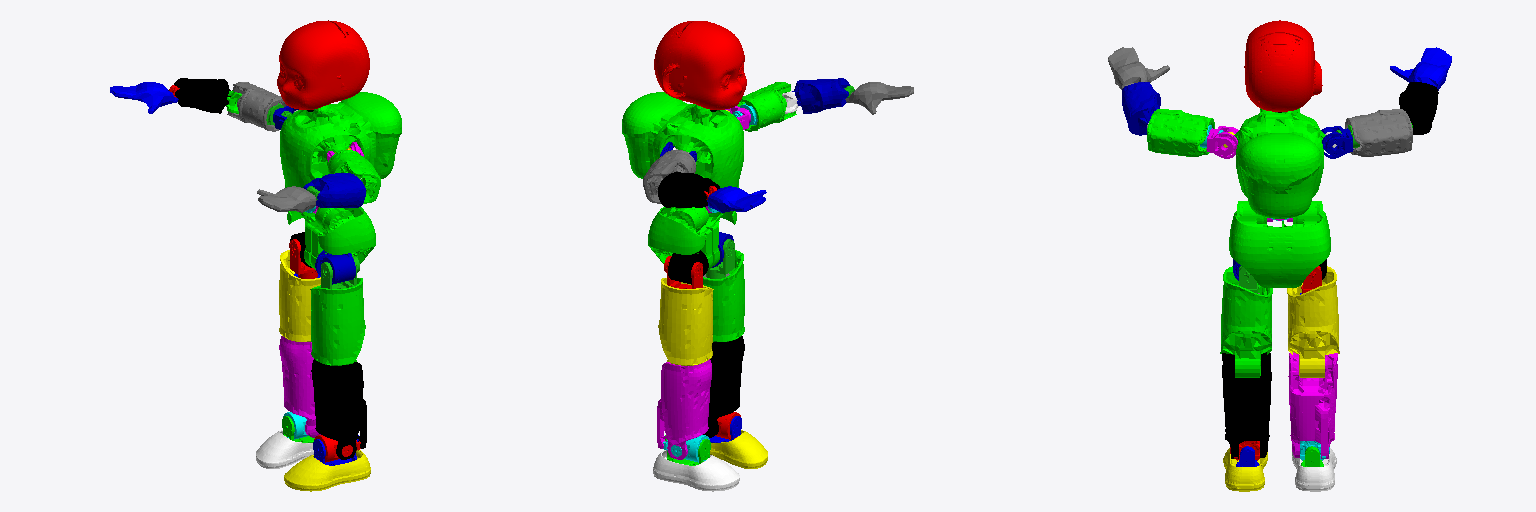
--- Render facts (derived) ---
Views: 3 orthographic renders of the robot side by side, from view 1: azimuth 30°, elevation 25°; view 2: azimuth 150°, elevation 25°; view 3: azimuth 270°, elevation 25°.
Model iCub with 205 links and 204 joints (32 revolute, 172 fixed), rooted at world, posed all joints at 0 but 4 set to mid-range because 0 is outside their limits (r_shoulder_roll = 1.58, r_elbow = 1.06, l_shoulder_roll = 1.58, l_elbow = 1.06).
Links seen in each view (by area): view 1: chest, head, l_lower_leg, l_upper_leg, root_link, r_lower_leg, r_upper_leg, l_foot, l_forearm, r_forearm, r_upper_arm, r_foot (+5 smaller); view 2: chest, head, r_lower_leg, r_upper_leg, root_link, l_lower_leg, l_upper_leg, r_foot, r_forearm, l_forearm, l_upper_arm, l_foot (+5 smaller); view 3: chest, root_link, head, l_upper_leg, r_upper_leg, l_lower_leg, r_lower_leg, r_upper_arm, l_upper_arm, r_forearm, l_forearm, l_hand (+5 smaller).
Boxes of the visible links, x1,y1,x2,y2 form: chest: (280,92,401,187); head: (277,20,369,109); l_lower_leg: (311,359,366,459); l_upper_leg: (310,278,365,365); root_link: (287,207,375,269); r_lower_leg: (279,336,320,437); r_upper_leg: (279,250,320,341); l_foot: (284,450,370,491); l_forearm: (303,173,365,207); r_forearm: (174,78,230,113); r_upper_arm: (227,82,286,131); r_foot: (256,430,313,468); chest: (622,92,743,187); head: (654,21,746,109); r_lower_leg: (657,359,711,459); r_upper_leg: (658,278,713,365); root_link: (648,207,736,269); l_lower_leg: (703,336,744,437); l_upper_leg: (703,250,744,341); r_foot: (653,450,739,491); r_forearm: (658,172,719,207); l_forearm: (792,78,849,113); l_upper_arm: (737,82,796,131); l_foot: (710,430,767,468); chest: (1234,108,1325,218); root_link: (1229,201,1330,287); head: (1244,20,1322,111); l_upper_leg: (1220,266,1272,377); r_upper_leg: (1287,266,1339,377); l_lower_leg: (1222,352,1271,458); r_lower_leg: (1288,352,1337,458); r_upper_arm: (1345,109,1412,156); l_upper_arm: (1147,109,1214,156); r_forearm: (1399,82,1438,134); l_forearm: (1122,82,1160,135); l_hand: (1108,47,1169,89).
Bounding box of the posed robot: 0.5414 × 0.749 × 1.08 m (x, y, z).
Meshes: 39 distinct files referenced, 38 mesh visuals loaded (38 binary STL); not drawn: 1 (reference not matched to a file when rendering).

robot.urdf — iCub:
<robot name="iCub">
  <link name="root_link">
    <inertial>
      <origin xyz="0.0248821 0.000103947 -0.0440806" rpy="1.57079632679 0 -1.57079632679"/>
      <mass value="5.09143"/>
      <inertia ixx="0.0139679" ixy="-5.93488e-06" ixz="-1.55458e-05" iyy="0.0202112" iyz="-0.00170968" izz="0.0249124"/>
    </inertial>
    <visual>
      <origin xyz="-0.0364 0 0.032" rpy="1.57079632679 0 -1.57079632679"/>
      <geometry>
        <mesh filename="package://iCub/meshes/simmechanics/sim_sea_2-5_root_link_prt-binary.stl" scale="0.001 0.001 0.001"/>
      </geometry>
      <material name="green">
        <color rgba="0 1 0 1"/>
      </material>
    </visual>
    <collision>
      <origin xyz="-0.0364 0 0.032" rpy="1.57079632679 0 -1.57079632679"/>
      <geometry>
        <mesh filename="package://iCub/meshes/simmechanics/sim_sea_2-5_root_link_prt-binary.stl" scale="0.001 0.001 0.001"/>
      </geometry>
    </collision>
  </link>
  <link name="r_hip_1">
    <inertial>
      <origin xyz="-0.0005145 -0.0380753 -7.1e-05" rpy="1.57079632679 0 1.57079632679"/>
      <mass value="0.919978"/>
      <inertia ixx="0.000404268" ixy="-1.26852e-06" ixz="1.11055e-06" iyy="0.000574741" iyz="-7.69474e-07" izz="0.000580025"/>
    </inertial>
    <visual>
      <origin xyz="0.0428515000001 0.026 0.151913" rpy="1.57079632679 0 1.57079632679"/>
      <geometry>
        <mesh filename="package://iCub/meshes/simmechanics/sim_sea_2-5_r_hip_1_prt-binary.stl" scale="0.001 0.001 0.001"/>
      </geometry>
      <material name="black">
        <color rgba="0 0 0 1"/>
      </material>
    </visual>
    <collision>
      <origin xyz="0.0428515000001 0.026 0.151913" rpy="1.57079632679 0 1.57079632679"/>
      <geometry>
        <mesh filename="package://iCub/meshes/simmechanics/sim_sea_2-5_r_hip_1_prt-binary.stl" scale="0.001 0.001 0.001"/>
      </geometry>
    </collision>
  </link>
  <joint name="r_hip_pitch" type="revolute">
    <origin xyz="0.0064515 0.026 -0.119913" rpy="0 0 -3.14159265359"/>
    <axis xyz="-2.22044604925e-16 -1.0 0.0"/>
    <parent link="root_link"/>
    <child link="r_hip_1"/>
    <limit effort="55.5" lower="-0.785398163397" upper="2.33874119767" velocity="5.1"/>
    <dynamics damping="1.0" friction="0.0"/>
  </joint>
  <link name="r_hip_2">
    <inertial>
      <origin xyz="-0.0013754 3.49999999998e-06 -0.044282" rpy="1.57079632679 0 1.57079632679"/>
      <mass value="0.418361"/>
      <inertia ixx="0.000487866" ixy="-2.70231e-07" ixz="1.85338e-07" iyy="0.000286099" iyz="1.22793e-05" izz="0.000315174"/>
    </inertial>
    <visual>
      <origin xyz="0.0428514998094 0.0701 0.151913" rpy="1.57079632679 0 1.57079632679"/>
      <geometry>
        <mesh filename="package://iCub/meshes/simmechanics/sim_sea_2-5_r_hip_2_prt-binary.stl" scale="0.001 0.001 0.001"/>
      </geometry>
      <material name="red">
        <color rgba="1 0 0 1"/>
      </material>
    </visual>
    <collision>
      <origin xyz="0.0428514998094 0.0701 0.151913" rpy="1.57079632679 0 1.57079632679"/>
      <geometry>
        <mesh filename="package://iCub/meshes/simmechanics/sim_sea_2-5_r_hip_2_prt-binary.stl" scale="0.001 0.001 0.001"/>
      </geometry>
    </collision>
  </link>

  <!--limit effort="37.0" lower="-0.349065850399" -new->"0.261799000003794" upper="2.09439510239" velocity="7.64"/-->
  <joint name="r_hip_roll" type="revolute">
    <origin xyz="0 -0.0441 0" rpy="0 0 0"/>
    <axis xyz="-1.0 0.0 -2.22044604925e-16"/>
    <parent link="r_hip_1"/>
    <child link="r_hip_2"/>
    <limit effort="37.0" lower="-0.349065850399" upper="2.09439510239" velocity="7.64"/>
    <dynamics damping="1.0" friction="0.0"/>
  </joint>
  <link name="r_hip_3">
    <inertial>
      <origin xyz="-0.000123 -0.0002823 0.008718" rpy="-1.57079632679 0 -1.57079632679"/>
      <mass value="0.126212"/>
      <inertia ixx="0.01" ixy="2.67901e-07" ixz="-4.41463e-09" iyy="0.01" iyz="3.32338e-08" izz="0.01"/>
    </inertial>
    <visual>
      <origin xyz="0.0437089998094 -0.0701 -0.226213" rpy="-1.57079632679 0 -1.57079632679"/>
      <geometry>
        <mesh filename="package://iCub/meshes/simmechanics/sim_sea_2-5_r_upper_thigh_prt-binary.stl" scale="0.001 0.001 0.001"/>
      </geometry>
      <material name="blue">
        <color rgba="0 0 1 1"/>
      </material>
    </visual>
    <collision>
      <origin xyz="0.0437089998094 -0.0701 -0.226213" rpy="-1.57079632679 0 -1.57079632679"/>
      <geometry>
        <mesh filename="package://iCub/meshes/simmechanics/sim_sea_2-5_r_upper_thigh_prt-binary.stl" scale="0.001 0.001 0.001"/>
      </geometry>
    </collision>
  </link>
  <joint name="r_leg_ft_sensor" type="fixed">
    <origin xyz="-0.0008575 0 -0.0743" rpy="3.14159265359 0 0"/>
    <parent link="r_hip_2"/>
    <child link="r_hip_3"/>
    <dynamics damping="0.1"/>
  </joint>
  <link name="r_upper_leg">
    <inertial>
      <origin xyz="0.0033999 -2.91e-05 -0.078954" rpy="1.57079632679 0 1.57079632679"/>
      <mass value="1.8035"/>
      <inertia ixx="0.00647751422999" ixy="0.000129579429588" ixz="5.48205094739e-06" iyy="0.0014593786411" iyz="-0.000136613086875" izz="0.00646720823813"/>
    </inertial>
    <visual>
      <origin xyz="0.0437089998094 0.0701 0.240813" rpy="1.57079632679 0 1.57079632679"/>
      <geometry>
        <mesh filename="package://iCub/meshes/simmechanics/sim_sea_2-5_r_thigh_prt-binary.stl" scale="0.001 0.001 0.001"/>
      </geometry>
      <material name="yellow">
        <color rgba="1 1 0 1"/>
      </material>
    </visual>
    <collision>
      <origin xyz="0.0437089998094 0.0701 0.240813" rpy="1.57079632679 0 1.57079632679"/>
      <geometry>
        <mesh filename="package://iCub/meshes/simmechanics/sim_sea_2-5_r_thigh_prt-binary.stl" scale="0.001 0.001 0.001"/>
      </geometry>
    </collision>
  </link>
  <joint name="r_hip_yaw" type="revolute">
    <origin xyz="0 0 0.0144" rpy="-3.14159265359 0 0"/>
    <axis xyz="0.0 -2.22044604925e-16 -1.0"/>
    <parent link="r_hip_3"/>
    <child link="r_upper_leg"/>
    <limit effort="37.0" lower="-1.3962634016" upper="1.3962634016" velocity="7.64"/>
    <dynamics damping="1.0" friction="0.0"/>
  </joint>
  <link name="r_upper_leg_back_contact"/>
  <joint name="r_upper_leg_back_contact_fixed_joint" type="fixed">
    <origin xyz="-0.0511999 0 0.0146" rpy="0 1.57079632679 0"/>
    <parent link="r_upper_leg"/>
    <child link="r_upper_leg_back_contact"/>
    <dynamics damping="0.1"/>
  </joint>
  <link name="r_upper_leg_dh_frame"/>
  <joint name="r_upper_leg_dh_frame_fixed_joint" type="fixed">
    <origin xyz="0 0 -0.145825" rpy="1.57079632679 0 0"/>
    <parent link="r_upper_leg"/>
    <child link="r_upper_leg_dh_frame"/>
    <dynamics damping="0.1"/>
  </joint>
  <link name="r_lower_leg">
    <inertial>
      <origin xyz="0.0012363 -0.0035131 -0.088794" rpy="1.57079632679 0 1.57079632679"/>
      <mass value="1.472"/>
      <inertia ixx="0.00423993167478" ixy="0.000228814548854" ixz="-5.55646459453e-05" iyy="0.00152095043447" iyz="-0.000264132979243" izz="0.00457358584206"/>
    </inertial>
    <visual>
      <origin xyz="0.0437089998094 0.0701000001907 0.386638" rpy="1.57079632679 0 1.57079632679"/>
      <geometry>
        <mesh filename="package://iCub/meshes/simmechanics/sim_sea_2-5_r_shank_prt-binary.stl" scale="0.001 0.001 0.001"/>
      </geometry>
      <material name="pink">
        <color rgba="1 0 1 1"/>
      </material>
    </visual>
    <collision>
      <origin xyz="0.0437089998094 0.0701000001907 0.386638" rpy="1.57079632679 0 1.57079632679"/>
      <geometry>
        <mesh filename="package://iCub/meshes/simmechanics/sim_sea_2-5_r_shank_prt-binary.stl" scale="0.001 0.001 0.001"/>
      </geometry>
    </collision>
  </link>
  <joint name="r_knee" type="revolute">
    <origin xyz="0 0 -0.145825" rpy="0 0 0"/>
    <axis xyz="-2.22044604925e-16 -1.0 0.0"/>
    <parent link="r_upper_leg"/>
    <child link="r_lower_leg"/>
    <limit effort="37.0" lower="-2.16420827247" upper="0.0698131700798" velocity="7.64"/>
    <dynamics damping="1.0" friction="0.0"/>
  </joint>
  <link name="r_lower_leg_skin_0"/>
  <joint name="r_lower_leg_skin_0_fixed_joint" type="fixed">
    <origin xyz="0.0544117 -0.031214 -0.002634" rpy="2.09173809157e-06 -1.41530676247 2.48648458622"/>
    <parent link="r_lower_leg"/>
    <child link="r_lower_leg_skin_0"/>
    <dynamics damping="0.1"/>
  </joint>
  <link name="r_lower_leg_skin_3"/>
  <joint name="r_lower_leg_skin_3_fixed_joint" type="fixed">
    <origin xyz="0.05157878 0.0304205 -0.002843" rpy="0 -1.42951054083 -2.30391484186"/>
    <parent link="r_lower_leg"/>
    <child link="r_lower_leg_skin_3"/>
    <dynamics damping="0.1"/>
  </joint>
  <link name="r_lower_leg_skin_4"/>
  <joint name="r_lower_leg_skin_4_fixed_joint" type="fixed">
    <origin xyz="0.0583103 0.0167836 0.007272" rpy="-2.98636361519e-07 -1.25636748876 -2.75892380087"/>
    <parent link="r_lower_leg"/>
    <child link="r_lower_leg_skin_4"/>
    <dynamics damping="0.1"/>
  </joint>
  <link name="r_lower_leg_skin_5"/>
  <joint name="r_lower_leg_skin_5_fixed_joint" type="fixed">
    <origin xyz="0.0636503 0.0003094 -0.001972" rpy="0 -1.38652215068 -3.14147169807"/>
    <parent link="r_lower_leg"/>
    <child link="r_lower_leg_skin_5"/>
    <dynamics damping="0.1"/>
  </joint>
  <link name="r_lower_leg_skin_6"/>
  <joint name="r_lower_leg_skin_6_fixed_joint" type="fixed">
    <origin xyz="0.05208552 0.0304434 -0.022149" rpy="-3.14158927953 -1.46785123411 0.837492889077"/>
    <parent link="r_lower_leg"/>
    <child link="r_lower_leg_skin_6"/>
    <dynamics damping="0.1"/>
  </joint>
  <link name="r_lower_leg_skin_9"/>
  <joint name="r_lower_leg_skin_9_fixed_joint" type="fixed">
    <origin xyz="0.0598214 0.0167973 -0.030962" rpy="-3.14159202356 -1.34224755325 0.379294477718"/>
    <parent link="r_lower_leg"/>
    <child link="r_lower_leg_skin_9"/>
    <dynamics damping="0.1"/>
  </joint>
  <link name="r_lower_leg_skin_10"/>
  <joint name="r_lower_leg_skin_10_fixed_joint" type="fixed">
    <origin xyz="0.0644607 0.0003424 -0.021205" rpy="3.14159265355 -1.47095803541 0.000430021675261"/>
    <parent link="r_lower_leg"/>
    <child link="r_lower_leg_skin_10"/>
    <dynamics damping="0.1"/>
  </joint>
  <link name="r_lower_leg_skin_11"/>
  <joint name="r_lower_leg_skin_11_fixed_joint" type="fixed">
    <origin xyz="0.0607108 -0.0160916 -0.030885" rpy="-3.14159218252 -1.3281180406 -0.27213836788"/>
    <parent link="r_lower_leg"/>
    <child link="r_lower_leg_skin_11"/>
    <dynamics damping="0.1"/>
  </joint>
  <link name="r_lower_leg_skin_14"/>
  <joint name="r_lower_leg_skin_14_fixed_joint" type="fixed">
    <origin xyz="0.0550477 -0.031176 -0.0219" rpy="-3.14159181885 -1.46502735635 -0.654033407167"/>
    <parent link="r_lower_leg"/>
    <child link="r_lower_leg_skin_14"/>
    <dynamics damping="0.1"/>
  </joint>
  <link name="r_lower_leg_skin_15"/>
  <joint name="r_lower_leg_skin_15_fixed_joint" type="fixed">
    <origin xyz="0.0591708 -0.0161788 0.007243" rpy="4.27484256729e-07 -1.25203633076 2.86798859471"/>
    <parent link="r_lower_leg"/>
    <child link="r_lower_leg_skin_15"/>
    <dynamics damping="0.1"/>
  </joint>
  <link name="r_lower_leg_skin_16"/>
  <joint name="r_lower_leg_skin_16_fixed_joint" type="fixed">
    <origin xyz="0.0272875 -0.050287 -0.004549" rpy="1.33075915123e-05 -1.53260853515 1.96280242835"/>
    <parent link="r_lower_leg"/>
    <child link="r_lower_leg_skin_16"/>
    <dynamics damping="0.1"/>
  </joint>
  <link name="r_lower_leg_skin_17"/>
  <joint name="r_lower_leg_skin_17_fixed_joint" type="fixed">
    <origin xyz="0.027875 -0.050312 -0.023882" rpy="-3.1415645262 -1.56366240237 -1.18022508756"/>
    <parent link="r_lower_leg"/>
    <child link="r_lower_leg_skin_17"/>
    <dynamics damping="0.1"/>
  </joint>
  <link name="r_lower_leg_skin_19"/>
  <joint name="r_lower_leg_skin_19_fixed_joint" type="fixed">
    <origin xyz="0.0357534 0.0410628 0.006065" rpy="-8.90877717426e-07 -1.43498696978 -2.15863618017"/>
    <parent link="r_lower_leg"/>
    <child link="r_lower_leg_skin_19"/>
    <dynamics damping="0.1"/>
  </joint>
  <link name="r_lower_leg_skin_20"/>
  <joint name="r_lower_leg_skin_20_fixed_joint" type="fixed">
    <origin xyz="0.0234419 0.0479908 -0.004952" rpy="-3.20556549428e-06 -1.50015513031 -1.86755092413"/>
    <parent link="r_lower_leg"/>
    <child link="r_lower_leg_skin_20"/>
    <dynamics damping="0.1"/>
  </joint>
  <link name="r_lower_leg_skin_21"/>
  <joint name="r_lower_leg_skin_21_fixed_joint" type="fixed">
    <origin xyz="0.0242704 0.0485378 -0.024277" rpy="2.29671149558e-05 -1.55545513881 -1.87411972316"/>
    <parent link="r_lower_leg"/>
    <child link="r_lower_leg_skin_21"/>
    <dynamics damping="0.1"/>
  </joint>
  <link name="r_lower_leg_skin_28"/>
  <joint name="r_lower_leg_skin_28_fixed_joint" type="fixed">
    <origin xyz="0.04087215 -0.04244 -0.032756" rpy="3.14158088865 -1.52252462169 -0.929681029763"/>
    <parent link="r_lower_leg"/>
    <child link="r_lower_leg_skin_28"/>
    <dynamics damping="0.1"/>
  </joint>
  <link name="r_lower_leg_skin_29"/>
  <joint name="r_lower_leg_skin_29_fixed_joint" type="fixed">
    <origin xyz="0.03846637 -0.043516 -0.05242" rpy="3.14158017044 -1.53429841563 -0.915436346631"/>
    <parent link="r_lower_leg"/>
    <child link="r_lower_leg_skin_29"/>
    <dynamics damping="0.1"/>
  </joint>
  <link name="r_lower_leg_skin_31"/>
  <joint name="r_lower_leg_skin_31_fixed_joint" type="fixed">
    <origin xyz="0.03914638 -0.042271 0.006327" rpy="-6.58381747139e-07 -1.4186494462 2.20853032986"/>
    <parent link="r_lower_leg"/>
    <child link="r_lower_leg_skin_31"/>
    <dynamics damping="0.1"/>
  </joint>
  <link name="r_lower_leg_skin_32"/>
  <joint name="r_lower_leg_skin_32_fixed_joint" type="fixed">
    <origin xyz="0.04598301 0.0325847 -0.080733" rpy="-3.14159014988 -1.52238289798 0.645940380887"/>
    <parent link="r_lower_leg"/>
    <child link="r_lower_leg_skin_32"/>
    <dynamics damping="0.1"/>
  </joint>
  <link name="r_lower_leg_skin_35"/>
  <joint name="r_lower_leg_skin_35_fixed_joint" type="fixed">
    <origin xyz="0.04774866 -0.031232 -0.080113" rpy="-3.14158668275 -1.51758467332 -0.541532486468"/>
    <parent link="r_lower_leg"/>
    <child link="r_lower_leg_skin_35"/>
    <dynamics damping="0.1"/>
  </joint>
  <link name="r_lower_leg_skin_36"/>
  <joint name="r_lower_leg_skin_36_fixed_joint" type="fixed">
    <origin xyz="0.05322409 -0.0156018 -0.088362" rpy="-3.14159034144 -1.51587265281 -0.20740733566"/>
    <parent link="r_lower_leg"/>
    <child link="r_lower_leg_skin_36"/>
    <dynamics damping="0.1"/>
  </joint>
  <link name="r_lower_leg_skin_37"/>
  <joint name="r_lower_leg_skin_37_fixed_joint" type="fixed">
    <origin xyz="0.0552572 0.0009644 -0.078318" rpy="-3.14158180452 -1.52318336898 0.00752450583063"/>
    <parent link="r_lower_leg"/>
    <child link="r_lower_leg_skin_37"/>
    <dynamics damping="0.1"/>
  </joint>
  <link name="r_lower_leg_skin_38"/>
  <joint name="r_lower_leg_skin_38_fixed_joint" type="fixed">
    <origin xyz="0.04880467 -0.031263 -0.060757" rpy="3.14158665199 -1.5157299554 -0.54215359959"/>
    <parent link="r_lower_leg"/>
    <child link="r_lower_leg_skin_38"/>
    <dynamics damping="0.1"/>
  </joint>
  <link name="r_lower_leg_skin_41"/>
  <joint name="r_lower_leg_skin_41_fixed_joint" type="fixed">
    <origin xyz="0.0566009 -0.0159129 -0.049854" rpy="-3.14159198825 -1.40681343597 -0.248233089413"/>
    <parent link="r_lower_leg"/>
    <child link="r_lower_leg_skin_41"/>
    <dynamics damping="0.1"/>
  </joint>
  <link name="r_lower_leg_skin_42"/>
  <joint name="r_lower_leg_skin_42_fixed_joint" type="fixed">
    <origin xyz="0.0570106 0.0007962 -0.05908" rpy="3.14158970239 -1.43524750416 0.00687943651504"/>
    <parent link="r_lower_leg"/>
    <child link="r_lower_leg_skin_42"/>
    <dynamics damping="0.1"/>
  </joint>
  <link name="r_lower_leg_skin_43"/>
  <joint name="r_lower_leg_skin_43_fixed_joint" type="fixed">
    <origin xyz="0.04712542 0.0323653 -0.061362" rpy="-3.14159136621 -1.53843038237 0.624217523667"/>
    <parent link="r_lower_leg"/>
    <child link="r_lower_leg_skin_43"/>
    <dynamics damping="0.1"/>
  </joint>
  <link name="r_lower_leg_skin_46"/>
  <joint name="r_lower_leg_skin_46_fixed_joint" type="fixed">
    <origin xyz="0.0558156 0.0172164 -0.05018" rpy="-3.14158987809 -1.42759881603 0.325607710876"/>
    <parent link="r_lower_leg"/>
    <child link="r_lower_leg_skin_46"/>
    <dynamics damping="0.1"/>
  </joint>
  <link name="r_lower_leg_skin_47"/>
  <joint name="r_lower_leg_skin_47_fixed_joint" type="fixed">
    <origin xyz="0.05264163 0.0176389 -0.08886" rpy="3.14158963519 -1.51690559406 0.262640425058"/>
    <parent link="r_lower_leg"/>
    <child link="r_lower_leg_skin_47"/>
    <dynamics damping="0.1"/>
  </joint>
  <link name="r_lower_leg_skin_49"/>
  <joint name="r_lower_leg_skin_49_fixed_joint" type="fixed">
    <origin xyz="0.04113137 0.0324385 -0.138859" rpy="-3.14158934751 -1.48996135695 0.729763592113"/>
    <parent link="r_lower_leg"/>
    <child link="r_lower_leg_skin_49"/>
    <dynamics damping="0.1"/>
  </joint>
  <link name="r_lower_leg_skin_50"/>
  <joint name="r_lower_leg_skin_50_fixed_joint" type="fixed">
    <origin xyz="0.043016947 0.0325273 -0.119469" rpy="3.14159069596 -1.49900732636 0.695784020081"/>
    <parent link="r_lower_leg"/>
    <child link="r_lower_leg_skin_50"/>
    <dynamics damping="0.1"/>
  </joint>
  <link name="r_lower_leg_skin_51"/>
  <joint name="r_lower_leg_skin_51_fixed_joint" type="fixed">
    <origin xyz="0.05141583 0.017759 -0.108206" rpy="-3.14158890179 -1.50628475717 0.272079935713"/>
    <parent link="r_lower_leg"/>
    <child link="r_lower_leg_skin_51"/>
    <dynamics damping="0.1"/>
  </joint>
  <link name="r_lower_leg_skin_52"/>
  <joint name="r_lower_leg_skin_52_fixed_joint" type="fixed">
    <origin xyz="0.05299832 0.0012664 -0.116895" rpy="-3.14159164042 -1.50318674421 0.0108717260994"/>
    <parent link="r_lower_leg"/>
    <child link="r_lower_leg_skin_52"/>
    <dynamics damping="0.1"/>
  </joint>
  <link name="r_lower_leg_skin_53"/>
  <joint name="r_lower_leg_skin_53_fixed_joint" type="fixed">
    <origin xyz="0.05207312 -0.0154339 -0.107654" rpy="3.14159063987 -1.50595307447 -0.211407322892"/>
    <parent link="r_lower_leg"/>
    <child link="r_lower_leg_skin_53"/>
    <dynamics damping="0.1"/>
  </joint>
  <link name="r_lower_leg_skin_54"/>
  <joint name="r_lower_leg_skin_54_fixed_joint" type="fixed">
    <origin xyz="0.04512708 -0.030749 -0.118787" rpy="3.14158825193 -1.49745145571 -0.575115374473"/>
    <parent link="r_lower_leg"/>
    <child link="r_lower_leg_skin_54"/>
    <dynamics damping="0.1"/>
  </joint>
  <link name="r_lower_leg_skin_55"/>
  <joint name="r_lower_leg_skin_55_fixed_joint" type="fixed">
    <origin xyz="0.043502663 -0.030489 -0.138143" rpy="3.14158906486 -1.48995787038 -0.597219943789"/>
    <parent link="r_lower_leg"/>
    <child link="r_lower_leg_skin_55"/>
    <dynamics damping="0.1"/>
  </joint>
  <link name="r_lower_leg_skin_56"/>
  <joint name="r_lower_leg_skin_56_fixed_joint" type="fixed">
    <origin xyz="0.04926839 -0.015121 -0.146218" rpy="-3.14158920404 -1.49124819828 -0.2234844764"/>
    <parent link="r_lower_leg"/>
    <child link="r_lower_leg_skin_56"/>
    <dynamics damping="0.1"/>
  </joint>
  <link name="r_lower_leg_skin_60"/>
  <joint name="r_lower_leg_skin_60_fixed_joint" type="fixed">
    <origin xyz="0.04836967 0.018056 -0.146938" rpy="-3.14159173337 -1.48985968527 0.302951871954"/>
    <parent link="r_lower_leg"/>
    <child link="r_lower_leg_skin_60"/>
    <dynamics damping="0.1"/>
  </joint>
  <link name="r_lower_leg_skin_61"/>
  <joint name="r_lower_leg_skin_61_fixed_joint" type="fixed">
    <origin xyz="0.05161952 0.0014266 -0.136169" rpy="-3.14159100925 -1.49602097086 0.0132014275205"/>
    <parent link="r_lower_leg"/>
    <child link="r_lower_leg_skin_61"/>
    <dynamics damping="0.1"/>
  </joint>
  <link name="r_ankle_1">
    <inertial>
      <origin xyz="0.0151436 -0.0008686 4.2e-05" rpy="1.57079632679 0 1.57079632679"/>
      <mass value="0.6803"/>
      <inertia ixx="0.000404618848932" ixy="7.49819286945e-07" ixz="-3.01349467691e-05" iyy="0.000448633654664" iyz="2.5726697409e-06" izz="0.000308235939139"/>
    </inertial>
    <visual>
      <origin xyz="0.0437089998094 0.0701000001907 0.587138" rpy="1.57079632679 0 1.57079632679"/>
      <geometry>
        <mesh filename="package://iCub/meshes/simmechanics/sim_sea_2-5_r_ankle_prt-binary.stl" scale="0.001 0.001 0.001"/>
      </geometry>
      <material name="cyan">
        <color rgba="0 1 1 1"/>
      </material>
    </visual>
    <collision>
      <origin xyz="0.0437089998094 0.0701000001907 0.587138" rpy="1.57079632679 0 1.57079632679"/>
      <geometry>
        <mesh filename="package://iCub/meshes/simmechanics/sim_sea_2-5_r_ankle_prt-binary.stl" scale="0.001 0.001 0.001"/>
      </geometry>
    </collision>
  </link>
  <joint name="r_ankle_pitch" type="revolute">
    <origin xyz="0 0 -0.2005" rpy="0 0 0"/>
    <axis xyz="2.22044604925e-16 1.0 0.0"/>
    <parent link="r_lower_leg"/>
    <child link="r_ankle_1"/>
    <limit effort="37.0" lower="-0.610865238198" upper="0.610865238198" velocity="7.64"/>
    <dynamics damping="1.0" friction="0.0"/>
  </joint>
  <link name="r_ankle_2">
    <inertial>
      <origin xyz="0.0007673 -8.20000000001e-06 -0.038202" rpy="1.57079632679 0 1.57079632679"/>
      <mass value="0.267485"/>
      <inertia ixx="0.01" ixy="-7.53335e-08" ixz="2.93681e-08" iyy="0.01" iyz="-4.26218e-07" izz="0.01"/>
    </inertial>
    <visual>
      <origin xyz="0.0437089996186 0.0701000001907 0.587138" rpy="1.57079632679 0 1.57079632679"/>
      <geometry>
        <mesh filename="package://iCub/meshes/simmechanics/sim_sea_2-5_r_foot_prt-binary.stl" scale="0.001 0.001 0.001"/>
      </geometry>
      <material name="green">
        <color rgba="0 1 0 1"/>
      </material>
    </visual>
    <collision>
      <origin xyz="0.0437089996186 0.0701000001907 0.587138" rpy="1.57079632679 0 1.57079632679"/>
      <geometry>
        <mesh filename="package://iCub/meshes/simmechanics/sim_sea_2-5_r_foot_prt-binary.stl" scale="0.001 0.001 0.001"/>
      </geometry>
    </collision>
  </link>
  <joint name="r_ankle_roll" type="revolute">
    <origin xyz="0 0 0" rpy="0 0 0"/>
    <axis xyz="-1.0 0.0 -2.22044604925e-16"/>
    <parent link="r_ankle_1"/>
    <child link="r_ankle_2"/>
    <limit effort="37.0" lower="-0.436332312999" upper="0.436332312999" velocity="7.64"/>
    <dynamics damping="1.0" friction="0.0"/>
  </joint>
  <link name="r_foot">
    <inertial>
      <origin xyz="0.0336001 0.0053719 -0.001147" rpy="-1.57079632679 0 -1.57079632679"/>
      <mass value="0.382866"/>
      <inertia ixx="0.00120946" ixy="3.74585e-07" ixz="-5.78759e-05" iyy="0.00141439" iyz="-7.80325e-06" izz="0.000273599"/>
    </inertial>
    <visual>
      <origin xyz="0.0472089996187 -0.0701000001907 -0.647438000286" rpy="-1.57079632679 0 -1.57079632679"/>
      <geometry>
        <mesh filename="package://iCub/meshes/simmechanics/sim_sea_2-5_r_sole_prt-binary.stl" scale="0.001 0.001 0.001"/>
      </geometry>
      <material name="white">
        <color rgba="1 1 1 1"/>
      </material>
    </visual>
    <collision>
      <origin xyz="0.03 0.005 0.014" rpy="0.0 0.0 0.0"/>
      <geometry>
        <box size="0.16 0.072 0.001"/>
      </geometry>
    </collision>
  </link>
  <joint name="r_foot_ft_sensor" type="fixed">
    <origin xyz="-0.0035 0 -0.0605" rpy="3.14159265359 0 0"/>
    <parent link="r_ankle_2"/>
    <child link="r_foot"/>
    <dynamics damping="0.1"/>
  </joint>
  <link name="r_sole"/>
  <joint name="r_sole_fixed_joint" type="fixed">
    <origin xyz="0.0035 0 0.004" rpy="-3.14159265359 0 0"/>
    <parent link="r_foot"/>
    <child link="r_sole"/>
    <dynamics damping="0.1"/>
  </joint>
  <link name="r_sole_skin_0"/>
  <joint name="r_sole_skin_0_fixed_joint" type="fixed">
    <origin xyz="0.0604767 -0.0254106 0.0075" rpy="0 0 0"/>
    <parent link="r_foot"/>
    <child link="r_sole_skin_0"/>
    <dynamics damping="0.1"/>
  </joint>
  <link name="r_sole_skin_1"/>
  <joint name="r_sole_skin_1_fixed_joint" type="fixed">
    <origin xyz="0.0788511 -0.0194404 0.0075" rpy="0 0 0"/>
    <parent link="r_foot"/>
    <child link="r_sole_skin_1"/>
    <dynamics damping="0.1"/>
  </joint>
  <link name="r_sole_skin_2"/>
  <joint name="r_sole_skin_2_fixed_joint" type="fixed">
    <origin xyz="0.0932087 -0.032368 0.0075" rpy="0 0 0"/>
    <parent link="r_foot"/>
    <child link="r_sole_skin_2"/>
    <dynamics damping="0.1"/>
  </joint>
  <link name="r_sole_skin_3"/>
  <joint name="r_sole_skin_3_fixed_joint" type="fixed">
    <origin xyz="0.1115831 -0.0263978 0.0075" rpy="0 0 0"/>
    <parent link="r_foot"/>
    <child link="r_sole_skin_3"/>
    <dynamics damping="0.1"/>
  </joint>
  <link name="r_sole_skin_4"/>
  <joint name="r_sole_skin_4_fixed_joint" type="fixed">
    <origin xyz="0.1156 -0.0075 0.0075" rpy="0 0 0"/>
    <parent link="r_foot"/>
    <child link="r_sole_skin_4"/>
    <dynamics damping="0.1"/>
  </joint>
  <link name="r_sole_skin_8"/>
  <joint name="r_sole_skin_8_fixed_joint" type="fixed">
    <origin xyz="0.1052593 0.0243254 0.0075" rpy="0 0 0"/>
    <parent link="r_foot"/>
    <child link="r_sole_skin_8"/>
    <dynamics damping="0.1"/>
  </joint>
  <link name="r_sole_skin_9"/>
  <joint name="r_sole_skin_9_fixed_joint" type="fixed">
    <origin xyz="0.0909017 0.037253 0.0075" rpy="0 0 0"/>
    <parent link="r_foot"/>
    <child link="r_sole_skin_9"/>
    <dynamics damping="0.1"/>
  </joint>
  <link name="r_sole_skin_10"/>
  <joint name="r_sole_skin_10_fixed_joint" type="fixed">
    <origin xyz="0.0725273 0.031283 0.0075" rpy="0 0 0"/>
    <parent link="r_foot"/>
    <child link="r_sole_skin_10"/>
    <dynamics damping="0.1"/>
  </joint>
  <link name="r_sole_skin_11"/>
  <joint name="r_sole_skin_11_fixed_joint" type="fixed">
    <origin xyz="0.0685104 0.012385 0.0075" rpy="0 0 0"/>
    <parent link="r_foot"/>
    <child link="r_sole_skin_11"/>
    <dynamics damping="0.1"/>
  </joint>
  <link name="r_sole_skin_12"/>
  <joint name="r_sole_skin_12_fixed_joint" type="fixed">
    <origin xyz="0.082868 -0.0005426 0.0075" rpy="0 0 0"/>
    <parent link="r_foot"/>
    <child link="r_sole_skin_12"/>
    <dynamics damping="0.1"/>
  </joint>
  <link name="r_sole_skin_13"/>
  <joint name="r_sole_skin_13_fixed_joint" type="fixed">
    <origin xyz="0.1012424 0.0054276 0.0075" rpy="0 0 0"/>
    <parent link="r_foot"/>
    <child link="r_sole_skin_13"/>
    <dynamics damping="0.1"/>
  </joint>
  <link name="r_sole_skin_14"/>
  <joint name="r_sole_skin_14_fixed_joint" type="fixed">
    <origin xyz="0.05013603 0.0064148 0.0075" rpy="0 0 0"/>
    <parent link="r_foot"/>
    <child link="r_sole_skin_14"/>
    <dynamics damping="0.1"/>
  </joint>
  <link name="r_sole_skin_15"/>
  <joint name="r_sole_skin_15_fixed_joint" type="fixed">
    <origin xyz="0.04611917 -0.012483 0.0075" rpy="0 0 0"/>
    <parent link="r_foot"/>
    <child link="r_sole_skin_15"/>
    <dynamics damping="0.1"/>
  </joint>
  <link name="r_sole_skin_17"/>
  <joint name="r_sole_skin_17_fixed_joint" type="fixed">
    <origin xyz="-0.0296855 0.033257 0.0075" rpy="0 0 0"/>
    <parent link="r_foot"/>
    <child link="r_sole_skin_17"/>
    <dynamics damping="0.1"/>
  </joint>
  <link name="r_sole_skin_18"/>
  <joint name="r_sole_skin_18_fixed_joint" type="fixed">
    <origin xyz="-0.0480599 0.027287 0.0075" rpy="0 0 0"/>
    <parent link="r_foot"/>
    <child link="r_sole_skin_18"/>
    <dynamics damping="0.1"/>
  </joint>
  <link name="r_sole_skin_19"/>
  <joint name="r_sole_skin_19_fixed_joint" type="fixed">
    <origin xyz="-0.0520767 0.0083892 0.0075" rpy="0 0 0"/>
    <parent link="r_foot"/>
    <child link="r_sole_skin_19"/>
    <dynamics damping="0.1"/>
  </joint>
  <link name="r_sole_skin_20"/>
  <joint name="r_sole_skin_20_fixed_joint" type="fixed">
    <origin xyz="-0.0377192 -0.0045384 0.0075" rpy="0 0 0"/>
    <parent link="r_foot"/>
    <child link="r_sole_skin_20"/>
    <dynamics damping="0.1"/>
  </joint>
  <link name="r_sole_skin_21"/>
  <joint name="r_sole_skin_21_fixed_joint" type="fixed">
    <origin xyz="0.0357785 0.0193424 0.0075" rpy="0 0 0"/>
    <parent link="r_foot"/>
    <child link="r_sole_skin_21"/>
    <dynamics damping="0.1"/>
  </joint>
  <link name="r_sole_skin_22"/>
  <joint name="r_sole_skin_22_fixed_joint" type="fixed">
    <origin xyz="0.0277448 -0.0184532 0.0075" rpy="0 0 0"/>
    <parent link="r_foot"/>
    <child link="r_sole_skin_22"/>
    <dynamics damping="0.1"/>
  </joint>
  <link name="r_sole_skin_24"/>
  <joint name="r_sole_skin_24_fixed_joint" type="fixed">
    <origin xyz="-0.0049872 -0.0114958 0.0075" rpy="0 0 0"/>
    <parent link="r_foot"/>
    <child link="r_sole_skin_24"/>
    <dynamics damping="0.1"/>
  </joint>
  <link name="r_sole_skin_25"/>
  <joint name="r_sole_skin_25_fixed_joint" type="fixed">
    <origin xyz="0.0133872 -0.0055256 0.0075" rpy="0 0 0"/>
    <parent link="r_foot"/>
    <child link="r_sole_skin_25"/>
    <dynamics damping="0.1"/>
  </joint>
  <link name="r_sole_skin_26"/>
  <joint name="r_sole_skin_26_fixed_joint" type="fixed">
    <origin xyz="0.0174041 0.0133722 0.0075" rpy="0 0 0"/>
    <parent link="r_foot"/>
    <child link="r_sole_skin_26"/>
    <dynamics damping="0.1"/>
  </joint>
  <link name="r_sole_skin_27"/>
  <joint name="r_sole_skin_27_fixed_joint" type="fixed">
    <origin xyz="0.0030465 0.0262998 0.0075" rpy="0 0 0"/>
    <parent link="r_foot"/>
    <child link="r_sole_skin_27"/>
    <dynamics damping="0.1"/>
  </joint>
  <link name="r_sole_skin_28"/>
  <joint name="r_sole_skin_28_fixed_joint" type="fixed">
    <origin xyz="-0.0153279 0.0203296 0.0075" rpy="0 0 0"/>
    <parent link="r_foot"/>
    <child link="r_sole_skin_28"/>
    <dynamics damping="0.1"/>
  </joint>
  <link name="r_sole_skin_29"/>
  <joint name="r_sole_skin_29_fixed_joint" type="fixed">
    <origin xyz="-0.0193448 0.0014318 0.0075" rpy="0 0 0"/>
    <parent link="r_foot"/>
    <child link="r_sole_skin_29"/>
    <dynamics damping="0.1"/>
  </joint>
  <link name="l_hip_1">
    <inertial>
      <origin xyz="-0.0005108 0.0380923 -8.3e-05" rpy="1.57079632679 0 1.57079632679"/>
      <mass value="0.919725"/>
      <inertia ixx="0.000404539" ixy="1.18502e-06" ixz="-9.64514e-07" iyy="0.000573315" iyz="-1.06028e-06" izz="0.000578982"/>
    </inertial>
    <visual>
      <origin xyz="0.0428515000001 -0.026 0.151913" rpy="1.57079632679 0 1.57079632679"/>
      <geometry>
        <mesh filename="package://iCub/meshes/simmechanics/sim_sea_2-5_l_hip_1_prt-binary.stl" scale="0.001 0.001 0.001"/>
      </geometry>
      <material name="dblue">
        <color rgba="0 0 0.8 1"/>
      </material>
    </visual>
    <collision>
      <origin xyz="0.0428515000001 -0.026 0.151913" rpy="1.57079632679 0 1.57079632679"/>
      <geometry>
        <mesh filename="package://iCub/meshes/simmechanics/sim_sea_2-5_l_hip_1_prt-binary.stl" scale="0.001 0.001 0.001"/>
      </geometry>
    </collision>
  </link>
  <joint name="l_hip_pitch" type="revolute">
    <origin xyz="0.0064515 -0.026 -0.119913" rpy="0 0 -3.14159265359"/>
    <axis xyz="-2.22044604925e-16 -1.0 0.0"/>
    <parent link="root_link"/>
    <child link="l_hip_1"/>
    <limit effort="55.5" lower="-0.785398163397" upper="2.33874119767" velocity="5.1"/>
    <dynamics damping="1.0" friction="0.0"/>
  </joint>
  <link name="l_hip_2">
    <inertial>
      <origin xyz="-0.0015762 -1.94e-05 -0.044053" rpy="1.57079632679 0 1.57079632679"/>
      <mass value="0.421106"/>
      <inertia ixx="0.000494284" ixy="1.5483e-07" ixz="-1.86308e-07" iyy="0.000288736" iyz="1.52962e-05" izz="0.000319008"/>
    </inertial>
    <visual>
      <origin xyz="0.0428514998093 -0.0701 0.151913" rpy="1.57079632679 0 1.57079632679"/>
      <geometry>
        <mesh filename="package://iCub/meshes/simmechanics/sim_sea_2-5_l_hip_2_prt-binary.stl" scale="0.001 0.001 0.001"/>
      </geometry>
      <material name="dgreen">
        <color rgba="0.1 0.8 0.1 1"/>
      </material>
    </visual>
    <collision>
      <origin xyz="0.0428514998093 -0.0701 0.151913" rpy="1.57079632679 0 1.57079632679"/>
      <geometry>
        <mesh filename="package://iCub/meshes/simmechanics/sim_sea_2-5_l_hip_2_prt-binary.stl" scale="0.001 0.001 0.001"/>
      </geometry>
    </collision>
  </link>
  <!--limit effort="37.0" lower="-0.349065850399" -new->"0.261799000003794"  upper="2.09439510239" velocity="7.64"/-->
  <joint name="l_hip_roll" type="revolute">
    <origin xyz="0 0.0441 0" rpy="0 0 0"/>
    <axis xyz="1.0 0.0 2.22044604925e-16"/>
    <parent link="l_hip_1"/>
    <child link="l_hip_2"/>
    <limit effort="37.0" lower="-0.349065850399" upper="2.09439510239" velocity="7.64"/>
    <dynamics damping="1.0" friction="0.0"/>
  </joint>
  <link name="l_hip_3">
    <inertial>
      <origin xyz="-0.000123 -0.0002823 0.008718" rpy="-1.57079632679 0 -1.57079632679"/>
      <mass value="0.126212"/>
      <inertia ixx="0.01" ixy="2.67901e-07" ixz="-4.41463e-09" iyy="0.01" iyz="3.32338e-08" izz="0.01"/>
    </inertial>
    <visual>
      <origin xyz="0.0437089998093 0.0701 -0.226213" rpy="-1.57079632679 0 -1.57079632679"/>
      <geometry>
        <mesh filename="package://iCub/meshes/simmechanics/sim_sea_2-5_l_upper_thigh_prt-binary.stl" scale="0.001 0.001 0.001"/>
      </geometry>
      <material name="gray">
        <color rgba="0.5 0.5 0.5 1"/>
      </material>
    </visual>
    <collision>
      <origin xyz="0.0437089998093 0.0701 -0.226213" rpy="-1.57079632679 0 -1.57079632679"/>
      <geometry>
        <mesh filename="package://iCub/meshes/simmechanics/sim_sea_2-5_l_upper_thigh_prt-binary.stl" scale="0.001 0.001 0.001"/>
      </geometry>
    </collision>
  </link>
  <joint name="l_leg_ft_sensor" type="fixed">
    <origin xyz="-0.0008575 0 -0.0743" rpy="3.14159265359 0 0"/>
    <parent link="l_hip_2"/>
    <child link="l_hip_3"/>
    <dynamics damping="0.1"/>
  </joint>
  <link name="l_upper_leg">
    <inertial>
      <origin xyz="0.0033868 0.0001018 -0.078916" rpy="1.57079632679 0 1.57079632679"/>
      <mass value="1.8084"/>
      <inertia ixx="0.00648512673084" ixy="-0.00012421121424" ixz="-3.97399421479e-06" iyy="0.00146250529833" iyz="-0.00013681806888" izz="0.00647619242046"/>
    </inertial>
    <visual>
      <origin xyz="0.0437089998093 -0.0701 0.240813" rpy="1.57079632679 0 1.57079632679"/>
      <geometry>
        <mesh filename="package://iCub/meshes/simmechanics/sim_sea_2-5_l_thigh_prt-binary.stl" scale="0.001 0.001 0.001"/>
      </geometry>
      <material name="green">
        <color rgba="0 1 0 1"/>
      </material>
    </visual>
    <collision>
      <origin xyz="0.0437089998093 -0.0701 0.240813" rpy="1.57079632679 0 1.57079632679"/>
      <geometry>
        <mesh filename="package://iCub/meshes/simmechanics/sim_sea_2-5_l_thigh_prt-binary.stl" scale="0.001 0.001 0.001"/>
      </geometry>
    </collision>
  </link>
  <joint name="l_hip_yaw" type="revolute">
    <origin xyz="0 0 0.0144" rpy="-3.14159265359 0 0"/>
    <axis xyz="0.0 2.22044604925e-16 1.0"/>
    <parent link="l_hip_3"/>
    <child link="l_upper_leg"/>
    <limit effort="37.0" lower="-1.3962634016" upper="1.3962634016" velocity="7.64"/>
    <dynamics damping="1.0" friction="0.0"/>
  </joint>
  <link name="l_upper_leg_back_contact"/>
  <joint name="l_upper_leg_back_contact_fixed_joint" type="fixed">
    <origin xyz="-0.0512567 0 0.0146" rpy="0 1.57079632679 0"/>
    <parent link="l_upper_leg"/>
    <child link="l_upper_leg_back_contact"/>
    <dynamics damping="0.1"/>
  </joint>
  <link name="l_upper_leg_dh_frame"/>
  <joint name="l_upper_leg_dh_frame_fixed_joint" type="fixed">
    <origin xyz="0 0 -0.145825" rpy="1.57079632679 0 0"/>
    <parent link="l_upper_leg"/>
    <child link="l_upper_leg_dh_frame"/>
    <dynamics damping="0.1"/>
  </joint>
  <link name="l_lower_leg">
    <inertial>
      <origin xyz="0.0009997 0.0034969 -0.088567" rpy="1.57079632679 0 1.57079632679"/>
      <mass value="1.4724"/>
      <inertia ixx="0.00423698606499" ixy="-0.000239615181423" ixz="6.76166218238e-05" iyy="0.00152221313636" iyz="-0.00023314283575" izz="0.00457007183207"/>
    </inertial>
    <visual>
      <origin xyz="0.0437089998093 -0.0701000001908 0.386638" rpy="1.57079632679 0 1.57079632679"/>
      <geometry>
        <mesh filename="package://iCub/meshes/simmechanics/sim_sea_2-5_l_shank_prt-binary.stl" scale="0.001 0.001 0.001"/>
      </geometry>
      <material name="black">
        <color rgba="0 0 0 1"/>
      </material>
    </visual>
    <collision>
      <origin xyz="0.0437089998093 -0.0701000001908 0.386638" rpy="1.57079632679 0 1.57079632679"/>
      <geometry>
        <mesh filename="package://iCub/meshes/simmechanics/sim_sea_2-5_l_shank_prt-binary.stl" scale="0.001 0.001 0.001"/>
      </geometry>
    </collision>
  </link>
  <joint name="l_knee" type="revolute">
    <origin xyz="0 0 -0.145825" rpy="0 0 0"/>
    <axis xyz="-2.22044604925e-16 -1.0 0.0"/>
    <parent link="l_upper_leg"/>
    <child link="l_lower_leg"/>
    <limit effort="37.0" lower="-2.16420827247" upper="0.0698131700798" velocity="7.64"/>
    <dynamics damping="1.0" friction="0.0"/>
  </joint>
  <link name="l_ankle_1">
    <inertial>
      <origin xyz="0.015153 0.0009021 4.2e-05" rpy="1.57079632679 0 1.57079632679"/>
      <mass value="0.6798"/>
      <inertia ixx="0.000404474297345" ixy="-1.13226038781e-06" ixz="3.04665105776e-05" iyy="0.00044788735407" iyz="2.57265834141e-06" izz="0.000307603045377"/>
    </inertial>
    <visual>
      <origin xyz="0.0437089998093 -0.0701000001908 0.587138" rpy="1.57079632679 0 1.57079632679"/>
      <geometry>
        <mesh filename="package://iCub/meshes/simmechanics/sim_sea_2-5_l_ankle_prt-binary.stl" scale="0.001 0.001 0.001"/>
      </geometry>
      <material name="red">
        <color rgba="1 0 0 1"/>
      </material>
    </visual>
    <collision>
      <origin xyz="0.0437089998093 -0.0701000001908 0.587138" rpy="1.57079632679 0 1.57079632679"/>
      <geometry>
        <mesh filename="package://iCub/meshes/simmechanics/sim_sea_2-5_l_ankle_prt-binary.stl" scale="0.001 0.001 0.001"/>
      </geometry>
    </collision>
  </link>
  <joint name="l_ankle_pitch" type="revolute">
    <origin xyz="0 0 -0.2005" rpy="0 0 0"/>
    <axis xyz="2.22044604925e-16 1.0 0.0"/>
    <parent link="l_lower_leg"/>
    <child link="l_ankle_1"/>
    <limit effort="37.0" lower="-0.610865238198" upper="0.610865238198" velocity="7.64"/>
    <dynamics damping="1.0" friction="0.0"/>
  </joint>
  <link name="l_ankle_2">
    <inertial>
      <origin xyz="0.0007673 -8.2e-06 -0.038202" rpy="1.57079632679 0 1.57079632679"/>
      <mass value="0.267485"/>
      <inertia ixx="0.01" ixy="-7.53335e-08" ixz="2.93681e-08" iyy="0.01" iyz="-4.26218e-07" izz="0.01"/>
    </inertial>
    <visual>
      <origin xyz="0.0437089996186 -0.0701000001908 0.587138" rpy="1.57079632679 0 1.57079632679"/>
      <geometry>
        <mesh filename="package://iCub/meshes/simmechanics/sim_sea_2-5_l_foot_prt-binary.stl" scale="0.001 0.001 0.001"/>
      </geometry>
      <material name="blue">
        <color rgba="0 0 1 1"/>
      </material>
    </visual>
    <collision>
      <origin xyz="0.0437089996186 -0.0701000001908 0.587138" rpy="1.57079632679 0 1.57079632679"/>
      <geometry>
        <mesh filename="package://iCub/meshes/simmechanics/sim_sea_2-5_l_foot_prt-binary.stl" scale="0.001 0.001 0.001"/>
      </geometry>
    </collision>
  </link>
  <joint name="l_ankle_roll" type="revolute">
    <origin xyz="0 0 0" rpy="0 0 0"/>
    <axis xyz="1.0 0.0 2.22044604925e-16"/>
    <parent link="l_ankle_1"/>
    <child link="l_ankle_2"/>
    <limit effort="37.0" lower="-0.436332312999" upper="0.436332312999" velocity="7.64"/>
    <dynamics damping="1.0" friction="0.0"/>
  </joint>
  <link name="l_foot">
    <inertial>
      <origin xyz="0.0336668 -0.0053736 -0.001164" rpy="-1.57079632679 0 -1.57079632679"/>
      <mass value="0.382968"/>
      <inertia ixx="0.00121242" ixy="-3.69533e-07" ixz="5.79273e-05" iyy="0.00141712" iyz="-7.64972e-06" izz="0.000273846"/>
    </inertial>
    <visual>
      <origin xyz="0.0472089996186 0.0701000001908 -0.647438000286" rpy="-1.57079632679 0 -1.57079632679"/>
      <geometry>
        <mesh filename="package://iCub/meshes/simmechanics/sim_sea_2-5_l_sole_prt-binary.stl" scale="0.001 0.001 0.001"/>
      </geometry>
      <material name="yellow">
        <color rgba="1 1 0 1"/>
      </material>
    </visual>
    <collision>
      <origin xyz="0.03 -0.005 0.014" rpy="0.0 0.0 0.0"/>
      <geometry>
        <box size="0.16 0.072 0.001"/>
      </geometry>
    </collision>
  </link>
  <joint name="l_foot_ft_sensor" type="fixed">
    <origin xyz="-0.0035 0 -0.0605" rpy="3.14159265359 0 0"/>
    <parent link="l_ankle_2"/>
    <child link="l_foot"/>
    <dynamics damping="0.1"/>
  </joint>
  <link name="l_sole"/>
  <joint name="l_sole_fixed_joint" type="fixed">
    <origin xyz="0.0035 0 0.004" rpy="-3.14159265359 0 0"/>
    <parent link="l_foot"/>
    <child link="l_sole"/>
    <dynamics damping="0.1"/>
  </joint>
  <link name="l_sole_skin_0"/>
  <joint name="l_sole_skin_0_fixed_joint" type="fixed">
    <origin xyz="0.0932087 0.032368 0.0075" rpy="0 0 0"/>
    <parent link="l_foot"/>
    <child link="l_sole_skin_0"/>
    <dynamics damping="0.1"/>
  </joint>
  <link name="l_sole_skin_1"/>
  <joint name="l_sole_skin_1_fixed_joint" type="fixed">
    <origin xyz="0.0788511 0.0194399 0.0075" rpy="0 0 0"/>
    <parent link="l_foot"/>
    <child link="l_sole_skin_1"/>
    <dynamics damping="0.1"/>
  </joint>
  <link name="l_sole_skin_2"/>
  <joint name="l_sole_skin_2_fixed_joint" type="fixed">
    <origin xyz="0.0604767 0.0254106 0.0075" rpy="0 0 0"/>
    <parent link="l_foot"/>
    <child link="l_sole_skin_2"/>
    <dynamics damping="0.1"/>
  </joint>
  <link name="l_sole_skin_3"/>
  <joint name="l_sole_skin_3_fixed_joint" type="fixed">
    <origin xyz="0.04611917 0.0124825 0.0075" rpy="0 0 0"/>
    <parent link="l_foot"/>
    <child link="l_sole_skin_3"/>
    <dynamics damping="0.1"/>
  </joint>
  <link name="l_sole_skin_4"/>
  <joint name="l_sole_skin_4_fixed_joint" type="fixed">
    <origin xyz="0.05013603 -0.0064148 0.0075" rpy="0 0 0"/>
    <parent link="l_foot"/>
    <child link="l_sole_skin_4"/>
    <dynamics damping="0.1"/>
  </joint>
  <link name="l_sole_skin_8"/>
  <joint name="l_sole_skin_8_fixed_joint" type="fixed">
    <origin xyz="0.0725273 -0.031283 0.0075" rpy="0 0 0"/>
    <parent link="l_foot"/>
    <child link="l_sole_skin_8"/>
    <dynamics damping="0.1"/>
  </joint>
  <link name="l_sole_skin_9"/>
  <joint name="l_sole_skin_9_fixed_joint" type="fixed">
    <origin xyz="0.0909017 -0.037254 0.0075" rpy="0 0 0"/>
    <parent link="l_foot"/>
    <child link="l_sole_skin_9"/>
    <dynamics damping="0.1"/>
  </joint>
  <link name="l_sole_skin_10"/>
  <joint name="l_sole_skin_10_fixed_joint" type="fixed">
    <origin xyz="0.1052593 -0.0243254 0.0075" rpy="0 0 0"/>
    <parent link="l_foot"/>
    <child link="l_sole_skin_10"/>
    <dynamics damping="0.1"/>
  </joint>
  <link name="l_sole_skin_11"/>
  <joint name="l_sole_skin_11_fixed_joint" type="fixed">
    <origin xyz="0.1012424 -0.0054281 0.0075" rpy="0 0 0"/>
    <parent link="l_foot"/>
    <child link="l_sole_skin_11"/>
    <dynamics damping="0.1"/>
  </joint>
  <link name="l_sole_skin_12"/>
  <joint name="l_sole_skin_12_fixed_joint" type="fixed">
    <origin xyz="0.082868 0.0005426 0.0075" rpy="0 0 0"/>
    <parent link="l_foot"/>
    <child link="l_sole_skin_12"/>
    <dynamics damping="0.1"/>
  </joint>
  <link name="l_sole_skin_13"/>
  <joint name="l_sole_skin_13_fixed_joint" type="fixed">
    <origin xyz="0.0685104 -0.0123855 0.0075" rpy="0 0 0"/>
    <parent link="l_foot"/>
    <child link="l_sole_skin_13"/>
    <dynamics damping="0.1"/>
  </joint>
  <link name="l_sole_skin_14"/>
  <joint name="l_sole_skin_14_fixed_joint" type="fixed">
    <origin xyz="0.1156 0.0074995 0.0075" rpy="0 0 0"/>
    <parent link="l_foot"/>
    <child link="l_sole_skin_14"/>
    <dynamics damping="0.1"/>
  </joint>
  <link name="l_sole_skin_15"/>
  <joint name="l_sole_skin_15_fixed_joint" type="fixed">
    <origin xyz="0.1115831 0.0263973 0.0075" rpy="0 0 0"/>
    <parent link="l_foot"/>
    <child link="l_sole_skin_15"/>
    <dynamics damping="0.1"/>
  </joint>
  <link name="l_sole_skin_17"/>
  <joint name="l_sole_skin_17_fixed_joint" type="fixed">
    <origin xyz="-0.0377192 0.0045384 0.0075" rpy="0 0 0"/>
    <parent link="l_foot"/>
    <child link="l_sole_skin_17"/>
    <dynamics damping="0.1"/>
  </joint>
  <link name="l_sole_skin_18"/>
  <joint name="l_sole_skin_18_fixed_joint" type="fixed">
    <origin xyz="-0.0520767 -0.0083897 0.0075" rpy="0 0 0"/>
    <parent link="l_foot"/>
    <child link="l_sole_skin_18"/>
    <dynamics damping="0.1"/>
  </joint>
  <link name="l_sole_skin_19"/>
  <joint name="l_sole_skin_19_fixed_joint" type="fixed">
    <origin xyz="-0.0480599 -0.027287 0.0075" rpy="0 0 0"/>
    <parent link="l_foot"/>
    <child link="l_sole_skin_19"/>
    <dynamics damping="0.1"/>
  </joint>
  <link name="l_sole_skin_20"/>
  <joint name="l_sole_skin_20_fixed_joint" type="fixed">
    <origin xyz="-0.0296855 -0.033258 0.0075" rpy="0 0 0"/>
    <parent link="l_foot"/>
    <child link="l_sole_skin_20"/>
    <dynamics damping="0.1"/>
  </joint>
  <link name="l_sole_skin_21"/>
  <joint name="l_sole_skin_21_fixed_joint" type="fixed">
    <origin xyz="0.0277448 0.0184532 0.0075" rpy="0 0 0"/>
    <parent link="l_foot"/>
    <child link="l_sole_skin_21"/>
    <dynamics damping="0.1"/>
  </joint>
  <link name="l_sole_skin_22"/>
  <joint name="l_sole_skin_22_fixed_joint" type="fixed">
    <origin xyz="0.0357785 -0.0193429 0.0075" rpy="0 0 0"/>
    <parent link="l_foot"/>
    <child link="l_sole_skin_22"/>
    <dynamics damping="0.1"/>
  </joint>
  <link name="l_sole_skin_24"/>
  <joint name="l_sole_skin_24_fixed_joint" type="fixed">
    <origin xyz="0.0030465 -0.0263003 0.0075" rpy="0 0 0"/>
    <parent link="l_foot"/>
    <child link="l_sole_skin_24"/>
    <dynamics damping="0.1"/>
  </joint>
  <link name="l_sole_skin_25"/>
  <joint name="l_sole_skin_25_fixed_joint" type="fixed">
    <origin xyz="0.0174041 -0.0133722 0.0075" rpy="0 0 0"/>
    <parent link="l_foot"/>
    <child link="l_sole_skin_25"/>
    <dynamics damping="0.1"/>
  </joint>
  <link name="l_sole_skin_26"/>
  <joint name="l_sole_skin_26_fixed_joint" type="fixed">
    <origin xyz="0.0133872 0.0055251 0.0075" rpy="0 0 0"/>
    <parent link="l_foot"/>
    <child link="l_sole_skin_26"/>
    <dynamics damping="0.1"/>
  </joint>
  <link name="l_sole_skin_27"/>
  <joint name="l_sole_skin_27_fixed_joint" type="fixed">
    <origin xyz="-0.0049872 0.0114958 0.0075" rpy="0 0 0"/>
    <parent link="l_foot"/>
    <child link="l_sole_skin_27"/>
    <dynamics damping="0.1"/>
  </joint>
  <link name="l_sole_skin_28"/>
  <joint name="l_sole_skin_28_fixed_joint" type="fixed">
    <origin xyz="-0.0193448 -0.0014323 0.0075" rpy="0 0 0"/>
    <parent link="l_foot"/>
    <child link="l_sole_skin_28"/>
    <dynamics damping="0.1"/>
  </joint>
  <link name="l_sole_skin_29"/>
  <joint name="l_sole_skin_29_fixed_joint" type="fixed">
    <origin xyz="-0.0153279 -0.0203296 0.0075" rpy="0 0 0"/>
    <parent link="l_foot"/>
    <child link="l_sole_skin_29"/>
    <dynamics damping="0.1"/>
  </joint>
  <link name="torso_1">
    <inertial>
      <origin xyz="0.0270921359 0.02914798 -0.0004398" rpy="0 0 0"/>
      <mass value="0.67144"/>
      <inertia ixx="0.00040911" ixy="-1.04522e-06" ixz="-1.02516e-06" iyy="0.000384141" iyz="6.50708e-06" izz="0.000299445"/>
    </inertial>
    <visual>
      <origin xyz="0.0270462998093 0.032 0.0364" rpy="0 0 0"/>
      <geometry>
        <mesh filename="package://iCub/meshes/simmechanics/sim_sea_2-5_lap_belt_1_prt-binary.stl" scale="0.001 0.001 0.001"/>
      </geometry>
      <material name="pink">
        <color rgba="1 0 1 1"/>
      </material>
    </visual>
    <collision>
      <origin xyz="0.0270462998093 0.032 0.0364" rpy="0 0 0"/>
      <geometry>
        <mesh filename="package://iCub/meshes/simmechanics/sim_sea_2-5_lap_belt_1_prt-binary.stl" scale="0.001 0.001 0.001"/>
      </geometry>
    </collision>
  </link>
  <joint name="torso_pitch" type="revolute">
    <origin xyz="0 0.0270463 0" rpy="1.57079632679 0 -1.57079632679"/>
    <axis xyz="1.0 0.0 0.0"/>
    <parent link="root_link"/>
    <child link="torso_1"/>
    <limit effort="50000" lower="-0.349065850399" upper="1.2217304764" velocity="50000"/>
    <dynamics damping="1.0" friction="0.0"/>
  </joint>
  <link name="torso_2">
    <inertial>
      <origin xyz="-0.000113507809265 0.0361525 0.0570963" rpy="0 0 0"/>
      <mass value="0.425685"/>
      <inertia ixx="0.000829234" ixy="2.37006e-08" ixz="9.25231e-08" iyy="0.000436517" iyz="-1.74814e-07" izz="0.000604802"/>
    </inertial>
    <visual>
      <origin xyz="0 0.1433 0.0386531" rpy="0 0 0"/>
      <geometry>
        <mesh filename="package://iCub/meshes/simmechanics/sim_sea_2-5_lap_belt_2_prt-binary.stl" scale="0.001 0.001 0.001"/>
      </geometry>
      <material name="cyan">
        <color rgba="0 1 1 1"/>
      </material>
    </visual>
    <collision>
      <origin xyz="0 0.1433 0.0386531" rpy="0 0 0"/>
      <geometry>
        <mesh filename="package://iCub/meshes/simmechanics/sim_sea_2-5_lap_belt_2_prt-binary.stl" scale="0.001 0.001 0.001"/>
      </geometry>
    </collision>
  </link>
  <joint name="torso_roll" type="revolute">
    <origin xyz="0.0270462998093 0.032 -0.0573446" rpy="0 0 0"/>
    <axis xyz="0.0 0.0 -1.0"/>
    <parent link="torso_1"/>
    <child link="torso_2"/>
    <limit effort="50000" lower="-0.523598775598" upper="0.523598775598" velocity="50000"/>
    <dynamics damping="1.0" friction="0.0"/>
  </joint>
  <link name="chest">
    <inertial>
      <origin xyz="0.000188619190735 0.073091 -0.0472381" rpy="0 0 0"/>
      <mass value="7.638"/>
      <inertia ixx="0.0430324878618" ixy="2.91075388804e-05" ixz="0.000181985229949" iyy="0.0440835725548" iyz="-0.000429106409108" izz="0.0260563249911"/>
    </inertial>
    <visual>
      <origin xyz="0 0.0928 -0.024189" rpy="0 0 0"/>
      <geometry>
        <mesh filename="package://iCub/meshes/simmechanics/sim_sea_2-5_chest_bb_prt-binary.stl" scale="0.001 0.001 0.001"/>
      </geometry>
      <material name="green">
        <color rgba="0 1 0 1"/>
      </material>
    </visual>
    <collision>
      <origin xyz="0 0.0928 -0.024189" rpy="0 0 0"/>
      <geometry>
        <mesh filename="package://iCub/meshes/simmechanics/sim_sea_2-5_chest_bb_prt-binary.stl" scale="0.001 0.001 0.001"/>
      </geometry>
    </collision>
  </link>
  <joint name="torso_yaw" type="revolute">
    <origin xyz="0 0.05 0.0628421" rpy="0 0 0"/>
    <axis xyz="0.0 -1.0 0.0"/>
    <parent link="torso_2"/>
    <child link="chest"/>
    <limit effort="50000" lower="-0.872664625997" upper="0.872664625997" velocity="50000"/>
    <dynamics damping="1.0" friction="0.0"/>
  </joint>
  <link name="r_shoulder_1">
    <inertial>
      <origin xyz="-0.0122656014133 3.2e-05 -0.00321064290449" rpy="0 0 0"/>
      <mass value="0.114862"/>
      <inertia ixx="0.01" ixy="-1.65173e-08" ixz="-3.55626e-06" iyy="0.01" iyz="-6.13337e-08" izz="0.01"/>
    </inertial>
    <visual>
      <origin xyz="0.0990079253076 0 -0.0265292487558" rpy="0 0 0"/>
      <geometry>
        <mesh filename="package://iCub/meshes/simmechanics/sim_sea_2-5_r_shoulder_1_prt-binary.stl" scale="0.001 0.001 0.001"/>
      </geometry>
      <material name="white">
        <color rgba="1 1 1 1"/>
      </material>
    </visual>
    <collision>
      <origin xyz="0.0990079253076 0 -0.0265292487558" rpy="0 0 0"/>
      <geometry>
        <mesh filename="package://iCub/meshes/simmechanics/sim_sea_2-5_r_shoulder_1_prt-binary.stl" scale="0.001 0.001 0.001"/>
      </geometry>
    </collision>
  </link>
  <joint name="r_shoulder_pitch" type="revolute">
    <origin xyz="-0.120015999809 0.0928 0.0079693" rpy="0 -0.523598883792 3.14159265359"/>
    <axis xyz="-0.965925926173 0.0 0.258819275525"/>
    <parent link="chest"/>
    <child link="r_shoulder_1"/>
    <limit effort="50000" lower="-1.66678943565" upper="0.174532925199" velocity="50000"/>
    <dynamics damping="1.0" friction="0.0"/>
  </joint>
  <link name="r_shoulder_2">
    <inertial>
      <origin xyz="-0.0214141709438 0.000271725272551 -0.0194402344535" rpy="0 0 0"/>
      <mass value="0.238162"/>
      <inertia ixx="0.01" ixy="-1.12091e-07" ixz="1.02574e-05" iyy="0.01" iyz="1.19785e-06" izz="0.01"/>
    </inertial>
    <visual>
      <origin xyz="0.106587808568 2.31914715418e-07 -0.0407392121175" rpy="0 0 0"/>
      <geometry>
        <mesh filename="package://iCub/meshes/simmechanics/sim_sea_2-5_r_shoulder_2_prt-binary.stl" scale="0.001 0.001 0.001"/>
      </geometry>
      <material name="dblue">
        <color rgba="0 0 0.8 1"/>
      </material>
    </visual>
    <collision>
      <origin xyz="0.106587808568 2.31914715418e-07 -0.0407392121175" rpy="0 0 0"/>
      <geometry>
        <mesh filename="package://iCub/meshes/simmechanics/sim_sea_2-5_r_shoulder_2_prt-binary.stl" scale="0.001 0.001 0.001"/>
      </geometry>
    </collision>
  </link>
  <joint name="r_shoulder_roll" type="revolute">
    <origin xyz="-0.00758046573227 0 0.0142102463639" rpy="-0.270597611583 -0.252680154648 -1.50155680035"/>
    <axis xyz="-0.258819 -2.77555756156e-17 -0.965926"/>
    <parent link="r_shoulder_1"/>
    <child link="r_shoulder_2"/>
    <limit effort="50000" lower="0.35" upper="2.80648943721" velocity="50000"/>
    <dynamics damping="1.0" friction="0.0"/>
  </joint>
  <link name="r_shoulder_3">
    <inertial>
      <origin xyz="-0.0267620766871 -6.99999999998e-06 0.0146999207713" rpy="0 0 0"/>
      <mass value="0.35913"/>
      <inertia ixx="0.01" ixy="3.60361e-07" ixz="4.94445e-05" iyy="0.01" iyz="2.65919e-07" izz="0.01"/>
    </inertial>
    <visual>
      <origin xyz="0.131933879164 0 -0.0353515667647" rpy="0 0 0"/>
      <geometry>
        <mesh filename="package://iCub/meshes/simmechanics/sim_sea_2-5_r_upper_arm_prt-binary.stl" scale="0.001 0.001 0.001"/>
      </geometry>
      <material name="dgreen">
        <color rgba="0.1 0.8 0.1 1"/>
      </material>
    </visual>
    <collision>
      <origin xyz="0.131933879164 0 -0.0353515667647" rpy="0 0 0"/>
      <geometry>
        <mesh filename="package://iCub/meshes/simmechanics/sim_sea_2-5_r_upper_arm_prt-binary.stl" scale="0.001 0.001 0.001"/>
      </geometry>
    </collision>
  </link>
  <joint name="r_shoulder_yaw" type="revolute">
    <origin xyz="-0.0253460713232 2.32750427306e-07 -0.00538764806457" rpy="-0.252689546175 0.0085186183214 0.067039889142"/>
    <axis xyz="0.965925843882 -2.22044604925e-16 -0.258818979447"/>
    <parent link="r_shoulder_2"/>
    <child link="r_shoulder_3"/>
    <limit effort="50000" lower="-0.645771823238" upper="1.3962634016" velocity="50000"/>
    <dynamics damping="1.0" friction="0.0"/>
  </joint>
  <link name="r_upper_arm">
    <inertial>
      <origin xyz="-0.006087 0.000126 0.0293121" rpy="0 1.30899700697 0"/>
      <mass value="0.745104"/>
      <inertia ixx="0.000509527" ixy="1.19292e-06" ixz="-1.17426e-05" iyy="0.000668487" iyz="1.13363e-06" izz="0.000599254"/>
    </inertial>
    <visual>
      <origin xyz="-0.015 0 -0.1933" rpy="0 1.30899700697 0"/>
      <geometry>
        <mesh filename="package://iCub/meshes/simmechanics/sim_sea_2-5_r_elbow_prt-binary.stl" scale="0.001 0.001 0.001"/>
      </geometry>
      <material name="gray">
        <color rgba="0.5 0.5 0.5 1"/>
      </material>
    </visual>
    <collision>
      <origin xyz="-0.015 0 -0.1933" rpy="0 1.30899700697 0"/>
      <geometry>
        <mesh filename="package://iCub/meshes/simmechanics/sim_sea_2-5_r_elbow_prt-binary.stl" scale="0.001 0.001 0.001"/>
      </geometry>
    </collision>
  </link>
  <joint name="r_arm_ft_sensor" type="fixed">
    <origin xyz="-0.0508973017665 0 0.0291670296206" rpy="0 -1.30899700697 0"/>
    <parent link="r_shoulder_3"/>
    <child link="r_upper_arm"/>
    <dynamics damping="0.1"/>
  </joint>
  <link name="r_elbow_1">
    <inertial>
      <origin xyz="-0.00673912932843 0.0188019 -0.00465769236154" rpy="0 0 0"/>
      <mass value="0.267903"/>
      <inertia ixx="0.01" ixy="7.36974e-06" ixz="-1.04536e-05" iyy="0.01" iyz="3.92498e-06" izz="0.01"/>
    </inertial>
    <visual>
      <origin xyz="0.259390463317 0.0224999 -0.0850325886962" rpy="0 0 0"/>
      <geometry>
        <mesh filename="package://iCub/meshes/simmechanics/sim_sea_2-5_r_elbow_prosup_prt-binary.stl" scale="0.001 0.001 0.001"/>
      </geometry>
      <material name="green">
        <color rgba="0 1 0 1"/>
      </material>
    </visual>
    <collision>
      <origin xyz="0.259390463317 0.0224999 -0.0850325886962" rpy="0 0 0"/>
      <geometry>
        <mesh filename="package://iCub/meshes/simmechanics/sim_sea_2-5_r_elbow_prosup_prt-binary.stl" scale="0.001 0.001 0.001"/>
      </geometry>
    </collision>
  </link>
  <joint name="r_elbow" type="revolute">
    <origin xyz="0 -0.0224999 0.07926" rpy="0 1.30899700697 0"/>
    <axis xyz="2.22044604925e-16 1.0 0.0"/>
    <parent link="r_upper_arm"/>
    <child link="r_elbow_1"/>
    <limit effort="50000" lower="0.261799387799" upper="1.85004900711" velocity="50000"/>
    <dynamics damping="1.0" friction="0.0"/>
  </joint>
  <link name="r_forearm">
    <inertial>
      <origin xyz="-0.0404391133886 -0.000328 0.00532733448387" rpy="0 0 0"/>
      <mass value="0.6347"/>
      <inertia ixx="0.000370044" ixy="-1.65419e-06" ixz="0.00010538" iyy="0.000672279" iyz="1.1456e-06" izz="0.000553637"/>
    </inertial>
    <visual>
      <origin xyz="0.296886967375 0 -0.0795506015227" rpy="0 0 0"/>
      <geometry>
        <mesh filename="package://iCub/meshes/simmechanics/sim_sea_2-5_r_forearm_prt-binary.stl" scale="0.001 0.001 0.001"/>
      </geometry>
      <material name="black">
        <color rgba="0 0 0 1"/>
      </material>
    </visual>
    <collision>
      <origin xyz="0.296886967375 0 -0.0795506015227" rpy="0 0 0"/>
      <geometry>
        <mesh filename="package://iCub/meshes/simmechanics/sim_sea_2-5_r_forearm_prt-binary.stl" scale="0.001 0.001 0.001"/>
      </geometry>
    </collision>
  </link>
  <joint name="r_wrist_prosup" type="revolute">
    <origin xyz="-0.0384624299027 0.0224999 -0.00522316819403" rpy="0 0 0"/>
    <axis xyz="0.965925843882 -2.22044604925e-16 -0.258818979447"/>
    <parent link="r_elbow_1"/>
    <child link="r_forearm"/>
    <limit effort="50000" lower="-1.0471975512" upper="1.0471975512" velocity="50000"/>
    <dynamics damping="1.0" friction="0.0"/>
  </joint>
  <link name="r_forearm_skin_0"/>
  <joint name="r_forearm_skin_0_fixed_joint" type="fixed">
    <origin xyz="-0.0454493286618 0.030077 -0.00628656037901" rpy="1.69181522292 -0.271026744341 -3.06880438227"/>
    <parent link="r_forearm"/>
    <child link="r_forearm_skin_0"/>
    <dynamics damping="0.1"/>
  </joint>
  <link name="r_forearm_skin_1"/>
  <joint name="r_forearm_skin_1_fixed_joint" type="fixed">
    <origin xyz="-0.0333728935826 0.028826 -0.0198456867711" rpy="1.86694023278 -0.274442533764 -3.09946977984"/>
    <parent link="r_forearm"/>
    <child link="r_forearm_skin_1"/>
    <dynamics damping="0.1"/>
  </joint>
  <link name="r_forearm_skin_2"/>
  <joint name="r_forearm_skin_2_fixed_joint" type="fixed">
    <origin xyz="-0.0146988929852 0.031279 -0.0160117338371" rpy="1.72847287019 -0.264015219116 -3.12733260687"/>
    <parent link="r_forearm"/>
    <child link="r_forearm_skin_2"/>
    <dynamics damping="0.1"/>
  </joint>
  <link name="r_forearm_skin_3"/>
  <joint name="r_forearm_skin_3_fixed_joint" type="fixed">
    <origin xyz="-0.045567293622 -0.030891 -0.00633000929351" rpy="-1.69487280859 -0.269757727104 3.07959743574"/>
    <parent link="r_forearm"/>
    <child link="r_forearm_skin_3"/>
    <dynamics damping="0.1"/>
  </joint>
  <link name="r_forearm_skin_4"/>
  <joint name="r_forearm_skin_4_fixed_joint" type="fixed">
    <origin xyz="-0.0635326332996 -0.0281163 -0.00899784258066" rpy="-1.80734960194 -0.0393131796327 2.97997643632"/>
    <parent link="r_forearm"/>
    <child link="r_forearm_skin_4"/>
    <dynamics damping="0.1"/>
  </joint>
  <link name="r_forearm_skin_5"/>
  <joint name="r_forearm_skin_5_fixed_joint" type="fixed">
    <origin xyz="-0.0688211941968 -0.0179483 -0.0231133361791" rpy="-2.5410475806 -0.385627260642 3.05486989667"/>
    <parent link="r_forearm"/>
    <child link="r_forearm_skin_5"/>
    <dynamics damping="0.1"/>
  </joint>
  <link name="r_forearm_skin_6"/>
  <joint name="r_forearm_skin_6_fixed_joint" type="fixed">
    <origin xyz="-0.0333948436255 -0.0295479 -0.0198325583433" rpy="-1.86628164653 -0.272886336181 3.10448585021"/>
    <parent link="r_forearm"/>
    <child link="r_forearm_skin_6"/>
    <dynamics damping="0.1"/>
  </joint>
  <link name="r_forearm_skin_7"/>
  <joint name="r_forearm_skin_7_fixed_joint" type="fixed">
    <origin xyz="-0.0147224260074 -0.0319422 -0.0159326482703" rpy="-1.72564640857 -0.263992900722 3.12721254266"/>
    <parent link="r_forearm"/>
    <child link="r_forearm_skin_7"/>
    <dynamics damping="0.1"/>
  </joint>
  <link name="r_forearm_skin_8"/>
  <joint name="r_forearm_skin_8_fixed_joint" type="fixed">
    <origin xyz="-0.0228528628554 -0.0097862 -0.041885146375" rpy="-2.94801979137 -0.270605090512 3.13980557285"/>
    <parent link="r_forearm"/>
    <child link="r_forearm_skin_8"/>
    <dynamics damping="0.1"/>
  </joint>
  <link name="r_forearm_skin_9"/>
  <joint name="r_forearm_skin_9_fixed_joint" type="fixed">
    <origin xyz="-0.0376032734683 -0.018955 -0.0340163371186" rpy="-2.58406517708 -0.2933217196 3.12128407396"/>
    <parent link="r_forearm"/>
    <child link="r_forearm_skin_9"/>
    <dynamics damping="0.1"/>
  </joint>
  <link name="r_forearm_skin_10"/>
  <joint name="r_forearm_skin_10_fixed_joint" type="fixed">
    <origin xyz="-0.0542285210888 -0.0097861 -0.0321469082866" rpy="-2.94123313406 -0.328304471922 3.1276263754"/>
    <parent link="r_forearm"/>
    <child link="r_forearm_skin_10"/>
    <dynamics damping="0.1"/>
  </joint>
  <link name="r_forearm_skin_11"/>
  <joint name="r_forearm_skin_11_fixed_joint" type="fixed">
    <origin xyz="-0.0542240912024 0.009043 -0.0321431259452" rpy="2.93929835957 -0.329101389745 -3.12731916446"/>
    <parent link="r_forearm"/>
    <child link="r_forearm_skin_11"/>
    <dynamics damping="0.1"/>
  </joint>
  <link name="r_forearm_skin_12"/>
  <joint name="r_forearm_skin_12_fixed_joint" type="fixed">
    <origin xyz="-0.0375994633868 0.018216 -0.0340191179961" rpy="2.58303505964 -0.29483050207 -3.12026580314"/>
    <parent link="r_forearm"/>
    <child link="r_forearm_skin_12"/>
    <dynamics damping="0.1"/>
  </joint>
  <link name="r_forearm_skin_13"/>
  <joint name="r_forearm_skin_13_fixed_joint" type="fixed">
    <origin xyz="-0.0228550868405 0.009048 -0.0418919009209" rpy="2.94896679198 -0.270583947189 -3.13981880352"/>
    <parent link="r_forearm"/>
    <child link="r_forearm_skin_13"/>
    <dynamics damping="0.1"/>
  </joint>
  <link name="r_forearm_skin_14"/>
  <joint name="r_forearm_skin_14_fixed_joint" type="fixed">
    <origin xyz="-0.0687703276364 0.01716 -0.0230239558511" rpy="2.48044991868 -0.295542566281 -2.91877349139"/>
    <parent link="r_forearm"/>
    <child link="r_forearm_skin_14"/>
    <dynamics damping="0.1"/>
  </joint>
  <link name="r_forearm_skin_15"/>
  <joint name="r_forearm_skin_15_fixed_joint" type="fixed">
    <origin xyz="-0.0633786419662 0.027145 -0.00879405455544" rpy="1.80492769741 -0.289783281916 -3.02765891428"/>
    <parent link="r_forearm"/>
    <child link="r_forearm_skin_15"/>
    <dynamics damping="0.1"/>
  </joint>
  <link name="r_forearm_skin_16"/>
  <joint name="r_forearm_skin_16_fixed_joint" type="fixed">
    <origin xyz="-0.03792482187 0.030487 0.0206369503605" rpy="1.41280007026 -0.25082462139 -3.06572742343"/>
    <parent link="r_forearm"/>
    <child link="r_forearm_skin_16"/>
    <dynamics damping="0.1"/>
  </joint>
  <link name="r_forearm_skin_17"/>
  <joint name="r_forearm_skin_17_fixed_joint" type="fixed">
    <origin xyz="-0.0543170548821 0.027725 0.0303291240179" rpy="1.27223716205 -0.23059304703 -3.03195542837"/>
    <parent link="r_forearm"/>
    <child link="r_forearm_skin_17"/>
    <dynamics damping="0.1"/>
  </joint>
  <link name="r_forearm_skin_19"/>
  <joint name="r_forearm_skin_19_fixed_joint" type="fixed">
    <origin xyz="-0.0381266107138 -0.0312941 0.020690605393" rpy="-1.41560888703 -0.252569290226 3.07715217889"/>
    <parent link="r_forearm"/>
    <child link="r_forearm_skin_19"/>
    <dynamics damping="0.1"/>
  </joint>
  <link name="r_forearm_skin_22"/>
  <joint name="r_forearm_skin_22_fixed_joint" type="fixed">
    <origin xyz="-0.0544173950421 -0.0287223 0.0306037516609" rpy="-1.2658242728 -0.234328151379 3.04788317971"/>
    <parent link="r_forearm"/>
    <child link="r_forearm_skin_22"/>
    <dynamics damping="0.1"/>
  </joint>
  <link name="r_forearm_skin_24"/>
  <joint name="r_forearm_skin_24_fixed_joint" type="fixed">
    <origin xyz="-0.0700345319564 -0.0097164 0.050069108714" rpy="-0.23489327644 -0.0388172993982 3.08676345459"/>
    <parent link="r_forearm"/>
    <child link="r_forearm_skin_24"/>
    <dynamics damping="0.1"/>
  </joint>
  <link name="r_forearm_skin_25"/>
  <joint name="r_forearm_skin_25_fixed_joint" type="fixed">
    <origin xyz="-0.0535999216295 -0.0182238 0.0454698125045" rpy="-0.564295527715 -0.136980272197 3.05963182792"/>
    <parent link="r_forearm"/>
    <child link="r_forearm_skin_25"/>
    <dynamics damping="0.1"/>
  </joint>
  <link name="r_forearm_skin_28"/>
  <joint name="r_forearm_skin_28_fixed_joint" type="fixed">
    <origin xyz="-0.0535859272148 0.017412 0.045352037397" rpy="0.59077064408 -0.0531607226063 3.10597081167"/>
    <parent link="r_forearm"/>
    <child link="r_forearm_skin_28"/>
    <dynamics damping="0.1"/>
  </joint>
  <link name="r_forearm_skin_29"/>
  <joint name="r_forearm_skin_29_fixed_joint" type="fixed">
    <origin xyz="-0.0700355805031 0.008954 0.0500111036233" rpy="0.248630982209 -0.0383136556786 -3.08328999116"/>
    <parent link="r_forearm"/>
    <child link="r_forearm_skin_29"/>
    <dynamics damping="0.1"/>
  </joint>
  <link name="r_forearm_dh_frame"/>
  <joint name="r_forearm_dh_frame_fixed_joint" type="fixed">
    <origin xyz="-0.102871102373 7.00000000002e-06 0.0275642213111" rpy="-0.261799319827 0 -1.57079632679"/>
    <parent link="r_forearm"/>
    <child link="r_forearm_dh_frame"/>
    <dynamics damping="0.1"/>
  </joint>
  <link name="r_wrist_1">
    <inertial>
      <origin xyz="0.000986101955547 -0.001176 0.00410132736724" rpy="0 0 0"/>
      <mass value="0.0362615"/>
      <inertia ixx="0.01" ixy="-3.10462e-08" ixz="-9.44554e-07" iyy="0.01" iyz="-1.59685e-07" izz="0.01"/>
    </inertial>
    <visual>
      <origin xyz="0.400392176248 -7.00000000009e-06 -0.104748304516" rpy="0 0 0"/>
      <geometry>
        <mesh filename="package://iCub/meshes/simmechanics/sim_sea_2-5_r_wrist_pitch_prt-binary.stl" scale="0.001 0.001 0.001"/>
      </geometry>
      <material name="red">
        <color rgba="1 0 0 1"/>
      </material>
    </visual>
    <collision>
      <origin xyz="0.400392176248 -7.00000000009e-06 -0.104748304516" rpy="0 0 0"/>
      <geometry>
        <mesh filename="package://iCub/meshes/simmechanics/sim_sea_2-5_r_wrist_pitch_prt-binary.stl" scale="0.001 0.001 0.001"/>
      </geometry>
    </collision>
  </link>
  <joint name="r_wrist_pitch" type="revolute">
    <origin xyz="-0.103505208873 7.00000000002e-06 0.0251977029936" rpy="0 0 0"/>
    <axis xyz="0.258818979447 0.0 0.965925843882"/>
    <parent link="r_forearm"/>
    <child link="r_wrist_1"/>
    <limit effort="50000" lower="-1.3962634016" upper="0.436332312999" velocity="50000"/>
    <dynamics damping="1.0" friction="0.0"/>
  </joint>
  <link name="r_hand">
    <inertial>
      <origin xyz="-0.064668163717 0.0056002 0.0226812940918" rpy="0 0 0"/>
      <mass value="0.248289"/>
      <inertia ixx="0.01" ixy="-2.3536e-06" ixz="3.61526e-05" iyy="0.01" iyz="2.07146e-05" izz="0.01"/>
    </inertial>
    <visual>
      <origin xyz="0.399758069749 0.0194929 -0.107114822834" rpy="0 0 0"/>
      <geometry>
        <mesh filename="package://iCub/meshes/simmechanics/sim_sea_2-5_r_hand_prt-binary.stl" scale="0.001 0.001 0.001"/>
      </geometry>
      <material name="blue">
        <color rgba="0 0 1 1"/>
      </material>
    </visual>
    <collision>
      <origin xyz="0.399758069749 0.0194929 -0.107114822834" rpy="0 0 0"/>
      <geometry>
        <mesh filename="package://iCub/meshes/simmechanics/sim_sea_2-5_r_hand_prt-binary.stl" scale="0.001 0.001 0.001"/>
      </geometry>
    </collision>
  </link>
  <joint name="r_wrist_yaw" type="revolute">
    <origin xyz="0.000634106499644 -0.0194999 0.00236651831751" rpy="0 0 0"/>
    <axis xyz="2.22044604925e-16 1.0 0.0"/>
    <parent link="r_wrist_1"/>
    <child link="r_hand"/>
    <limit effort="50000" lower="-0.349065850399" upper="0.436332312999" velocity="50000"/>
    <dynamics damping="1.0" friction="0.0"/>
  </joint>
  <link name="r_hand_dh_frame"/>
  <joint name="r_hand_dh_frame_fixed_joint" type="fixed">
    <origin xyz="-0.0576542978428 -0.0055568 0.0136938323083" rpy="-1.57079632679 -0.261799319827 3.14159265359"/>
    <parent link="r_hand"/>
    <child link="r_hand_dh_frame"/>
    <dynamics damping="0.1"/>
  </joint>
  <link name="l_shoulder_1">
    <inertial>
      <origin xyz="-0.008985 -3.3e-05 -0.0088998" rpy="0 0 0"/>
      <mass value="0.114882"/>
      <inertia ixx="0.01" ixy="-1.77064e-08" ixz="3.55951e-06" iyy="0.01" iyz="6.57597e-08" izz="0.01"/>
    </inertial>
    <visual>
      <origin xyz="-0.120257482 0 -0.032223" rpy="0 0 0"/>
      <geometry>
        <mesh filename="package://iCub/meshes/simmechanics/sim_sea_2-5_l_shoulder_1_prt-binary.stl" scale="0.001 0.001 0.001"/>
      </geometry>
      <material name="yellow">
        <color rgba="1 1 0 1"/>
      </material>
    </visual>
    <collision>
      <origin xyz="-0.120257482 0 -0.032223" rpy="0 0 0"/>
      <geometry>
        <mesh filename="package://iCub/meshes/simmechanics/sim_sea_2-5_l_shoulder_1_prt-binary.stl" scale="0.001 0.001 0.001"/>
      </geometry>
    </collision>
  </link>
  <joint name="l_shoulder_pitch" type="revolute">
    <origin xyz="0.120016000191 0.0928 0.0079693" rpy="0 0 0"/>
    <axis xyz="0.965926 0.0 0.258819"/>
    <parent link="chest"/>
    <child link="l_shoulder_1"/>
    <limit effort="50000" lower="-1.66678943565" upper="0.174532925199" velocity="50000"/>
    <dynamics damping="1.0" friction="0.0"/>
  </joint>
  <link name="l_shoulder_2">
    <inertial>
      <origin xyz="0.0214745951272 0.000268957899687 -0.0194107361535" rpy="0 0 0"/>
      <mass value="0.238162"/>
      <inertia ixx="0.01" ixy="1.19701e-07" ixz="-1.29687e-05" iyy="0.01" iyz="1.20112e-06" izz="0.01"/>
    </inertial>
    <visual>
      <origin xyz="-0.106586691581 1.10800934344e-07 -0.040743380771" rpy="0 0 0"/>
      <geometry>
        <mesh filename="package://iCub/meshes/simmechanics/sim_sea_2-5_l_shoulder_2_prt-binary.stl" scale="0.001 0.001 0.001"/>
      </geometry>
      <material name="pink">
        <color rgba="1 0 1 1"/>
      </material>
    </visual>
    <collision>
      <origin xyz="-0.106586691581 1.10800934344e-07 -0.040743380771" rpy="0 0 0"/>
      <geometry>
        <mesh filename="package://iCub/meshes/simmechanics/sim_sea_2-5_l_shoulder_2_prt-binary.stl" scale="0.001 0.001 0.001"/>
      </geometry>
    </collision>
  </link>
  <joint name="l_shoulder_roll" type="revolute">
    <origin xyz="-0.013671 0 0.0085204" rpy="0.270597317916 0.252680177542 -1.50155688559"/>
    <axis xyz="-0.258819 2.77555756156e-17 0.965926"/>
    <parent link="l_shoulder_1"/>
    <child link="l_shoulder_2"/>
    <limit effort="50000" lower="0.35" upper="2.80648943721" velocity="50000"/>
    <dynamics damping="1.0" friction="0.0"/>
  </joint>
  <link name="l_shoulder_3">
    <inertial>
      <origin xyz="0.026798412222 -1.6e-05 0.0146956806177" rpy="0 0 0"/>
      <mass value="0.35913"/>
      <inertia ixx="0.01" ixy="-2.22441e-07" ixz="-4.95846e-05" iyy="0.01" iyz="1.07538e-07" izz="0.01"/>
    </inertial>
    <visual>
      <origin xyz="-0.131901037685 0 -0.0353427669194" rpy="0 0 0"/>
      <geometry>
        <mesh filename="package://iCub/meshes/simmechanics/sim_sea_2-5_l_upper_arm_prt-binary.stl" scale="0.001 0.001 0.001"/>
      </geometry>
      <material name="cyan">
        <color rgba="0 1 1 1"/>
      </material>
    </visual>
    <collision>
      <origin xyz="-0.131901037685 0 -0.0353427669194" rpy="0 0 0"/>
      <geometry>
        <mesh filename="package://iCub/meshes/simmechanics/sim_sea_2-5_l_upper_arm_prt-binary.stl" scale="0.001 0.001 0.001"/>
      </geometry>
    </collision>
  </link>
  <joint name="l_shoulder_yaw" type="revolute">
    <origin xyz="0.0253143468312 1.11636438205e-07 -0.00540061656265" rpy="-0.252689546175 -0.0085186183214 -0.067039889142"/>
    <axis xyz="0.965925843882 2.22044604925e-16 0.258818979447"/>
    <parent link="l_shoulder_2"/>
    <child link="l_shoulder_3"/>
    <limit effort="50000" lower="-0.645771823238" upper="1.3962634016" velocity="50000"/>
    <dynamics damping="1.0" friction="0.0"/>
  </joint>
  <link name="l_upper_arm">
    <inertial>
      <origin xyz="-0.006121 -0.000189 0.0293684" rpy="0 -1.30899700697 -3.14159265359"/>
      <mass value="0.746799"/>
      <inertia ixx="0.000509731" ixy="-6.90767e-07" ixz="1.20048e-05" iyy="0.00067086" iyz="3.11833e-06" izz="0.000601202"/>
    </inertial>
    <visual>
      <origin xyz="-0.015 0 -0.1933" rpy="0 -1.30899700697 -3.14159265359"/>
      <geometry>
        <mesh filename="package://iCub/meshes/simmechanics/sim_sea_2-5_l_elbow_prt-binary.stl" scale="0.001 0.001 0.001"/>
      </geometry>
      <material name="green">
        <color rgba="0 1 0 1"/>
      </material>
    </visual>
    <collision>
      <origin xyz="-0.015 0 -0.1933" rpy="0 -1.30899700697 -3.14159265359"/>
      <geometry>
        <mesh filename="package://iCub/meshes/simmechanics/sim_sea_2-5_l_elbow_prt-binary.stl" scale="0.001 0.001 0.001"/>
      </geometry>
    </collision>
  </link>
  <joint name="l_arm_ft_sensor" type="fixed">
    <origin xyz="0.0509301432452 0 0.0291758294659" rpy="0 -1.30899700697 3.14159265359"/>
    <parent link="l_shoulder_3"/>
    <child link="l_upper_arm"/>
    <dynamics damping="0.1"/>
  </joint>
  <link name="l_elbow_1">
    <inertial>
      <origin xyz="0.00673912932843 0.0303019 -0.00465769236154" rpy="0 0 0"/>
      <mass value="0.267903"/>
      <inertia ixx="0.01" ixy="-7.37159e-06" ixz="1.04505e-05" iyy="0.01" iyz="3.9319e-06" izz="0.01"/>
    </inertial>
    <visual>
      <origin xyz="-0.259390463317 0.0339999 -0.0850325886962" rpy="0 0 0"/>
      <geometry>
        <mesh filename="package://iCub/meshes/simmechanics/sim_sea_2-5_l_elbow_prosup_prt-binary.stl" scale="0.001 0.001 0.001"/>
      </geometry>
      <material name="white">
        <color rgba="1 1 1 1"/>
      </material>
    </visual>
    <collision>
      <origin xyz="-0.259390463317 0.0339999 -0.0850325886962" rpy="0 0 0"/>
      <geometry>
        <mesh filename="package://iCub/meshes/simmechanics/sim_sea_2-5_l_elbow_prosup_prt-binary.stl" scale="0.001 0.001 0.001"/>
      </geometry>
    </collision>
  </link>
  <joint name="l_elbow" type="revolute">
    <origin xyz="0 0.0339999 0.07926" rpy="0 -1.30899700697 -3.14159265359"/>
    <axis xyz="2.22044604925e-16 -1.0 0.0"/>
    <parent link="l_upper_arm"/>
    <child link="l_elbow_1"/>
    <limit effort="50000" lower="0.261799387799" upper="1.85004900711" velocity="50000"/>
    <dynamics damping="1.0" friction="0.0"/>
  </joint>
  <link name="l_forearm">
    <inertial>
      <origin xyz="0.0404511828823 -0.000686 0.00532363214379" rpy="0 0 0"/>
      <mass value="0.636185"/>
      <inertia ixx="0.000371447" ixy="4.34562e-06" ixz="-0.000105871" iyy="0.000674229" iyz="4.05222e-06" izz="0.000557115"/>
    </inertial>
    <visual>
      <origin xyz="-0.296886967375 0 -0.0795506015227" rpy="0 0 0"/>
      <geometry>
        <mesh filename="package://iCub/meshes/simmechanics/sim_sea_2-5_l_forearm_prt-binary.stl" scale="0.001 0.001 0.001"/>
      </geometry>
      <material name="dblue">
        <color rgba="0 0 0.8 1"/>
      </material>
    </visual>
    <collision>
      <origin xyz="-0.296886967375 0 -0.0795506015227" rpy="0 0 0"/>
      <geometry>
        <mesh filename="package://iCub/meshes/simmechanics/sim_sea_2-5_l_forearm_prt-binary.stl" scale="0.001 0.001 0.001"/>
      </geometry>
    </collision>
  </link>
  <joint name="l_wrist_prosup" type="revolute">
    <origin xyz="0.0384624299027 0.0339999 -0.00522316819403" rpy="0 0 0"/>
    <axis xyz="0.965925843882 2.22044604925e-16 0.258818979447"/>
    <parent link="l_elbow_1"/>
    <child link="l_forearm"/>
    <limit effort="50000" lower="-1.0471975512" upper="1.0471975512" velocity="50000"/>
    <dynamics damping="1.0" friction="0.0"/>
  </joint>
  <link name="l_forearm_skin_0"/>
  <joint name="l_forearm_skin_0_fixed_joint" type="fixed">
    <origin xyz="0.0454493286618 -0.0323169 -0.00628656037901" rpy="1.69181522292 -0.271026744341 0.0727882713185"/>
    <parent link="l_forearm"/>
    <child link="l_forearm_skin_0"/>
    <dynamics damping="0.1"/>
  </joint>
  <link name="l_forearm_skin_1"/>
  <joint name="l_forearm_skin_1_fixed_joint" type="fixed">
    <origin xyz="0.0333728935826 -0.0310662 -0.0198456867711" rpy="1.86694023278 -0.274442533764 0.0421228737473"/>
    <parent link="l_forearm"/>
    <child link="l_forearm_skin_1"/>
    <dynamics damping="0.1"/>
  </joint>
  <link name="l_forearm_skin_2"/>
  <joint name="l_forearm_skin_2_fixed_joint" type="fixed">
    <origin xyz="0.0146988929852 -0.0335184 -0.0160117338371" rpy="1.72847287019 -0.264015219116 0.0142600467197"/>
    <parent link="l_forearm"/>
    <child link="l_forearm_skin_2"/>
    <dynamics damping="0.1"/>
  </joint>
  <link name="l_forearm_skin_3"/>
  <joint name="l_forearm_skin_3_fixed_joint" type="fixed">
    <origin xyz="0.045567293622 0.028651 -0.00633000929351" rpy="-1.69487280859 -0.269757727104 -0.061995217851"/>
    <parent link="l_forearm"/>
    <child link="l_forearm_skin_3"/>
    <dynamics damping="0.1"/>
  </joint>
  <link name="l_forearm_skin_4"/>
  <joint name="l_forearm_skin_4_fixed_joint" type="fixed">
    <origin xyz="0.0635326332996 0.025877 -0.00899784258066" rpy="-1.81747870108 -0.287406884885 -0.0998316152826"/>
    <parent link="l_forearm"/>
    <child link="l_forearm_skin_4"/>
    <dynamics damping="0.1"/>
  </joint>
  <link name="l_forearm_skin_5"/>
  <joint name="l_forearm_skin_5_fixed_joint" type="fixed">
    <origin xyz="0.0688211941968 0.015709 -0.0231133361791" rpy="-2.5410475806 -0.385627260642 -0.0867227569203"/>
    <parent link="l_forearm"/>
    <child link="l_forearm_skin_5"/>
    <dynamics damping="0.1"/>
  </joint>
  <link name="l_forearm_skin_6"/>
  <joint name="l_forearm_skin_6_fixed_joint" type="fixed">
    <origin xyz="0.0333948436255 0.027308 -0.0198325583433" rpy="-1.86628164653 -0.272886336181 -0.0371068033783"/>
    <parent link="l_forearm"/>
    <child link="l_forearm_skin_6"/>
    <dynamics damping="0.1"/>
  </joint>
  <link name="l_forearm_skin_7"/>
  <joint name="l_forearm_skin_7_fixed_joint" type="fixed">
    <origin xyz="0.0147224260074 0.029702 -0.0159326482703" rpy="-1.72564640857 -0.263992900722 -0.0143801109253"/>
    <parent link="l_forearm"/>
    <child link="l_forearm_skin_7"/>
    <dynamics damping="0.1"/>
  </joint>
  <link name="l_forearm_skin_8"/>
  <joint name="l_forearm_skin_8_fixed_joint" type="fixed">
    <origin xyz="0.0228528628554 0.007546 -0.041885146375" rpy="-2.94801979137 -0.270605090512 -0.00178708074348"/>
    <parent link="l_forearm"/>
    <child link="l_forearm_skin_8"/>
    <dynamics damping="0.1"/>
  </joint>
  <link name="l_forearm_skin_9"/>
  <joint name="l_forearm_skin_9_fixed_joint" type="fixed">
    <origin xyz="0.0376032734683 0.016715 -0.0340163371186" rpy="-2.58406517708 -0.2933217196 -0.0203085796276"/>
    <parent link="l_forearm"/>
    <child link="l_forearm_skin_9"/>
    <dynamics damping="0.1"/>
  </joint>
  <link name="l_forearm_skin_10"/>
  <joint name="l_forearm_skin_10_fixed_joint" type="fixed">
    <origin xyz="0.0542285210888 0.007546 -0.0321469082866" rpy="-2.94123313406 -0.328304471922 -0.0139662781936"/>
    <parent link="l_forearm"/>
    <child link="l_forearm_skin_10"/>
    <dynamics damping="0.1"/>
  </joint>
  <link name="l_forearm_skin_11"/>
  <joint name="l_forearm_skin_11_fixed_joint" type="fixed">
    <origin xyz="0.0542240912024 -0.0112832 -0.0321431259452" rpy="2.93929835957 -0.329101389745 0.0142734891292"/>
    <parent link="l_forearm"/>
    <child link="l_forearm_skin_11"/>
    <dynamics damping="0.1"/>
  </joint>
  <link name="l_forearm_skin_12"/>
  <joint name="l_forearm_skin_12_fixed_joint" type="fixed">
    <origin xyz="0.0375994633868 -0.0204556 -0.0340191179961" rpy="2.58303505964 -0.29483050207 0.021326850448"/>
    <parent link="l_forearm"/>
    <child link="l_forearm_skin_12"/>
    <dynamics damping="0.1"/>
  </joint>
  <link name="l_forearm_skin_13"/>
  <joint name="l_forearm_skin_13_fixed_joint" type="fixed">
    <origin xyz="0.0228550868405 -0.0112878 -0.0418919009209" rpy="2.94896679198 -0.270583947189 0.00177385006765"/>
    <parent link="l_forearm"/>
    <child link="l_forearm_skin_13"/>
    <dynamics damping="0.1"/>
  </joint>
  <link name="l_forearm_skin_14"/>
  <joint name="l_forearm_skin_14_fixed_joint" type="fixed">
    <origin xyz="0.0687703276364 -0.0193999 -0.0230239558511" rpy="2.52462250363 -0.387794511771 0.0912924111683"/>
    <parent link="l_forearm"/>
    <child link="l_forearm_skin_14"/>
    <dynamics damping="0.1"/>
  </joint>
  <link name="l_forearm_skin_15"/>
  <joint name="l_forearm_skin_15_fixed_joint" type="fixed">
    <origin xyz="0.0633786419662 -0.0293843 -0.00879405455544" rpy="1.80492769741 -0.289783281916 0.113933739306"/>
    <parent link="l_forearm"/>
    <child link="l_forearm_skin_15"/>
    <dynamics damping="0.1"/>
  </joint>
  <link name="l_forearm_skin_16"/>
  <joint name="l_forearm_skin_16_fixed_joint" type="fixed">
    <origin xyz="0.03792482187 -0.0327268 0.0206369503605" rpy="1.41280007026 -0.25082462139 0.0758652301584"/>
    <parent link="l_forearm"/>
    <child link="l_forearm_skin_16"/>
    <dynamics damping="0.1"/>
  </joint>
  <link name="l_forearm_skin_17"/>
  <joint name="l_forearm_skin_17_fixed_joint" type="fixed">
    <origin xyz="0.0543170548821 -0.0299646 0.0303291240179" rpy="1.27223716205 -0.23059304703 0.109637225219"/>
    <parent link="l_forearm"/>
    <child link="l_forearm_skin_17"/>
    <dynamics damping="0.1"/>
  </joint>
  <link name="l_forearm_skin_19"/>
  <joint name="l_forearm_skin_19_fixed_joint" type="fixed">
    <origin xyz="0.0381266107138 0.029054 0.020690605393" rpy="-1.41560888703 -0.252569290226 -0.0644404747027"/>
    <parent link="l_forearm"/>
    <child link="l_forearm_skin_19"/>
    <dynamics damping="0.1"/>
  </joint>
  <link name="l_forearm_skin_22"/>
  <joint name="l_forearm_skin_22_fixed_joint" type="fixed">
    <origin xyz="0.0544173950421 0.026483 0.0306037516609" rpy="-1.2658242728 -0.234328151379 -0.0937094738802"/>
    <parent link="l_forearm"/>
    <child link="l_forearm_skin_22"/>
    <dynamics damping="0.1"/>
  </joint>
  <link name="l_forearm_skin_24"/>
  <joint name="l_forearm_skin_24_fixed_joint" type="fixed">
    <origin xyz="0.0700345319564 0.007477 0.050069108714" rpy="-0.23489327644 -0.0388172993982 -0.0548291989999"/>
    <parent link="l_forearm"/>
    <child link="l_forearm_skin_24"/>
    <dynamics damping="0.1"/>
  </joint>
  <link name="l_forearm_skin_25"/>
  <joint name="l_forearm_skin_25_fixed_joint" type="fixed">
    <origin xyz="0.0535999216295 0.015984 0.0454698125045" rpy="-0.564295527715 -0.136980272197 -0.0819608256656"/>
    <parent link="l_forearm"/>
    <child link="l_forearm_skin_25"/>
    <dynamics damping="0.1"/>
  </joint>
  <link name="l_forearm_skin_28"/>
  <joint name="l_forearm_skin_28_fixed_joint" type="fixed">
    <origin xyz="0.0535859272148 -0.0196522 0.045352037397" rpy="0.579311106949 -0.133994306778 0.0867597858312"/>
    <parent link="l_forearm"/>
    <child link="l_forearm_skin_28"/>
    <dynamics damping="0.1"/>
  </joint>
  <link name="l_forearm_skin_29"/>
  <joint name="l_forearm_skin_29_fixed_joint" type="fixed">
    <origin xyz="0.0700355805031 -0.0111936 0.0500111036233" rpy="0.248630982209 -0.0383136556786 0.0583026624266"/>
    <parent link="l_forearm"/>
    <child link="l_forearm_skin_29"/>
    <dynamics damping="0.1"/>
  </joint>
  <link name="l_forearm_dh_frame"/>
  <joint name="l_forearm_dh_frame_fixed_joint" type="fixed">
    <origin xyz="0.102871102373 7.00000000002e-06 0.0275642213111" rpy="2.87979333376 0 1.57079632679"/>
    <parent link="l_forearm"/>
    <child link="l_forearm_dh_frame"/>
    <dynamics damping="0.1"/>
  </joint>
  <link name="l_wrist_1">
    <inertial>
      <origin xyz="-0.000981313804428 -0.001178 0.00408345773913" rpy="0 0 0"/>
      <mass value="0.0362152"/>
      <inertia ixx="0.01" ixy="3.08362e-08" ixz="9.42153e-07" iyy="0.01" iyz="-1.58924e-07" izz="0.01"/>
    </inertial>
    <visual>
      <origin xyz="-0.400314530555 -7.00000000009e-06 -0.105038082269" rpy="0 0 0"/>
      <geometry>
        <mesh filename="package://iCub/meshes/simmechanics/sim_sea_2-5_l_wrist_pitch_prt-binary.stl" scale="0.001 0.001 0.001"/>
      </geometry>
      <material name="dgreen">
        <color rgba="0.1 0.8 0.1 1"/>
      </material>
    </visual>
    <collision>
      <origin xyz="-0.400314530555 -7.00000000009e-06 -0.105038082269" rpy="0 0 0"/>
      <geometry>
        <mesh filename="package://iCub/meshes/simmechanics/sim_sea_2-5_l_wrist_pitch_prt-binary.stl" scale="0.001 0.001 0.001"/>
      </geometry>
    </collision>
  </link>
  <joint name="l_wrist_pitch" type="revolute">
    <origin xyz="0.103427563179 7.00000000002e-06 0.0254874807467" rpy="0 0 0"/>
    <axis xyz="0.258818979447 0.0 -0.965925843882"/>
    <parent link="l_forearm"/>
    <child link="l_wrist_1"/>
    <limit effort="50000" lower="-1.3962634016" upper="0.436332312999" velocity="50000"/>
    <dynamics damping="1.0" friction="0.0"/>
  </joint>
  <link name="l_hand">
    <inertial>
      <origin xyz="0.0647680204057 0.0056304 0.0226602208449" rpy="0 0 0"/>
      <mass value="0.247806"/>
      <inertia ixx="0.01" ixy="2.96453e-06" ixz="-3.68906e-05" iyy="0.01" iyz="2.06885e-05" izz="0.01"/>
    </inertial>
    <visual>
      <origin xyz="-0.399680424055 0.0194929 -0.107404600587" rpy="0 0 0"/>
      <geometry>
        <mesh filename="package://iCub/meshes/simmechanics/sim_sea_2-5_l_hand_prt-binary.stl" scale="0.001 0.001 0.001"/>
      </geometry>
      <material name="gray">
        <color rgba="0.5 0.5 0.5 1"/>
      </material>
    </visual>
    <collision>
      <origin xyz="-0.399680424055 0.0194929 -0.107404600587" rpy="0 0 0"/>
      <geometry>
        <mesh filename="package://iCub/meshes/simmechanics/sim_sea_2-5_l_hand_prt-binary.stl" scale="0.001 0.001 0.001"/>
      </geometry>
    </collision>
  </link>
  <joint name="l_wrist_yaw" type="revolute">
    <origin xyz="-0.000634106499644 -0.0194999 0.00236651831751" rpy="0 0 0"/>
    <axis xyz="-2.22044604925e-16 1.0 0.0"/>
    <parent link="l_wrist_1"/>
    <child link="l_hand"/>
    <limit effort="50000" lower="-0.349065850399" upper="0.436332312999" velocity="50000"/>
    <dynamics damping="1.0" friction="0.0"/>
  </joint>
  <link name="l_hand_dh_frame"/>
  <joint name="l_hand_dh_frame_fixed_joint" type="fixed">
    <origin xyz="0.0576542978428 -0.0055568 0.0136938323083" rpy="-1.57079632679 -0.261799319827 0"/>
    <parent link="l_hand"/>
    <child link="l_hand_dh_frame"/>
    <dynamics damping="0.1"/>
  </joint>
  <link name="neck_1">
    <inertial>
      <origin xyz="0.0143705608 0.006567 -0.0063842" rpy="0 0 0"/>
      <mass value="0.125793"/>
      <inertia ixx="0.01" ixy="8.09156e-08" ixz="-3.74998e-08" iyy="0.01" iyz="9.39717e-06" izz="0.01"/>
    </inertial>
    <visual>
      <origin xyz="0.0142999998093 -0.079997 -0.0295008" rpy="0 0 0"/>
      <geometry>
        <mesh filename="package://iCub/meshes/simmechanics/sim_sea_2-5_neck_1_prt-binary.stl" scale="0.001 0.001 0.001"/>
      </geometry>
      <material name="green">
        <color rgba="0 1 0 1"/>
      </material>
    </visual>
    <collision>
      <origin xyz="0.0142999998093 -0.079997 -0.0295008" rpy="0 0 0"/>
      <geometry>
        <mesh filename="package://iCub/meshes/simmechanics/sim_sea_2-5_neck_1_prt-binary.stl" scale="0.001 0.001 0.001"/>
      </geometry>
    </collision>
  </link>
  <joint name="neck_pitch" type="revolute">
    <origin xyz="-0.0142999998093 0.172797 0.0053118" rpy="0 0 0"/>
    <axis xyz="-1.0 0.0 0.0"/>
    <parent link="chest"/>
    <child link="neck_1"/>
    <limit effort="50000" lower="-0.698131700798" upper="0.383972435439" velocity="50000"/>
    <dynamics damping="1.0" friction="0.0"/>
  </joint>
  <link name="neck_2">
    <inertial>
      <origin xyz="-8.8573009265e-05 0.035225 -0.01954527" rpy="0 0 0"/>
      <mass value="0.177087"/>
      <inertia ixx="0.01" ixy="-5.25591e-07" ixz="4.68307e-07" iyy="0.01" iyz="9.81476e-06" izz="0.01"/>
    </inertial>
    <visual>
      <origin xyz="0 -0.089497 -0.05030077" rpy="0 0 0"/>
      <geometry>
        <mesh filename="package://iCub/meshes/simmechanics/sim_sea_2-5_neck_2_prt-binary.stl" scale="0.001 0.001 0.001"/>
      </geometry>
      <material name="black">
        <color rgba="0 0 0 1"/>
      </material>
    </visual>
    <collision>
      <origin xyz="0 -0.089497 -0.05030077" rpy="0 0 0"/>
      <geometry>
        <mesh filename="package://iCub/meshes/simmechanics/sim_sea_2-5_neck_2_prt-binary.stl" scale="0.001 0.001 0.001"/>
      </geometry>
    </collision>
  </link>
  <joint name="neck_roll" type="revolute">
    <origin xyz="0.0142999998093 0.0095 0.02079997" rpy="0 0 0"/>
    <axis xyz="0.0 0.0 1.0"/>
    <parent link="neck_1"/>
    <child link="neck_2"/>
    <limit effort="50000" lower="-0.349065850399" upper="0.349065850399" velocity="50000"/>
    <dynamics damping="1.0" friction="0.0"/>
  </joint>
  <link name="head">
    <inertial>
      <origin xyz="-0.000574157809265 0.113511 -0.0075392" rpy="0 0 0"/>
      <mass value="1.50691"/>
      <inertia ixx="0.00680478" ixy="-1.60267e-05" ixz="7.28166e-05" iyy="0.00634736" iyz="0.000292091" izz="0.00478116"/>
    </inertial>
    <visual>
      <origin xyz="0 -0.067153 -0.0295008" rpy="0 0 0"/>
      <geometry>
        <mesh filename="package://iCub/meshes/simmechanics/sim_sea_2-5_head_prt-binary.stl" scale="0.001 0.001 0.001"/>
      </geometry>
      <material name="red">
        <color rgba="1 0 0 1"/>
      </material>
    </visual>
    <collision>
      <origin xyz="0 -0.067153 -0.0295008" rpy="0 0 0"/>
      <geometry>
        <mesh filename="package://iCub/meshes/simmechanics/sim_sea_2-5_head_prt-binary.stl" scale="0.001 0.001 0.001"/>
      </geometry>
    </collision>
  </link>
  <joint name="neck_yaw" type="revolute">
    <origin xyz="0 -0.022344 -0.02079997" rpy="0 0 0"/>
    <axis xyz="0.0 1.0 0.0"/>
    <parent link="neck_2"/>
    <child link="head"/>
    <limit effort="50000" lower="-0.872664625997" upper="0.872664625997" velocity="50000"/>
    <dynamics damping="1.0" friction="0.0"/>
  </joint>
  <link name="imu_frame"/>
  <joint name="imu_frame_fixed_joint" type="fixed">
    <origin xyz="0.00950000019074 0.133444 0.0093" rpy="-1.57079632679 1.57079632679 0"/>
    <parent link="head"/>
    <child link="imu_frame"/>
    <dynamics damping="0.1"/>
  </joint>
<link name="base_link"/>
 <!--  <link name="base_link">
   <inertial>
     <origin xyz="0.00001 0.00001 0.00001" rpy="0 0 0"/>
     <mass value="0.00001"/>
     <inertia ixx="0.00001" ixy="0.00001" ixz="0.00001" iyy="0.00001" iyz="0" izz="0"/>
   </inertial>
   <visual>
     <origin xyz="0.00001 0.00001 0.00001" rpy="0 0 0"/>
     <geometry>
       <box size="0.2 0.1 0.05" />
     </geometry>
     <material name="blue">
       <color rgba="0 0 1 1"/>
     </material>
   </visual>
  <visual>
    <origin xyz="0.13 0.00001 0.00001" rpy="0 0 0"/>
    <geometry>
      <box size="0.04 0.04 0.04" />
    </geometry>
    <material name="red">
      <color rgba="1 0 0 1"/>
    </material>
     </visual>

    <collision>
     <origin xyz="0.00001 0.00001 0.00001" rpy="0 0 0"/>
     <geometry>
       <box size="0.2 0.1 0.05" />
     </geometry>
   </collision>
 </link>
 -->
  <joint name="base_fixed_joint" type="fixed">
  <origin xyz="0 0 0" rpy="0 0 0"/>
  <axis xyz="0 0 0"/>
  <parent link="base_link"/>
  <child link="root_link"/>
</joint>
  <link name="l_foot_dh_frame"/>
  <joint name="l_foot_dh_frame_fixed_joint" type="fixed">
  <origin xyz="0.0 0 0.004" rpy="0 1.5708 0"/>
  <axis xyz="0 0 0"/>
  <parent link="l_foot"/>
  <child link="l_foot_dh_frame"/>
</joint>
  <link name="r_foot_dh_frame"/>
  <joint name="r_foot_dh_frame_fixed_joint" type="fixed">
  <origin xyz="0.0 0 0.004" rpy="0 1.5708 0"/>
  <axis xyz="0 0 0"/>
  <parent link="r_foot"/>
  <child link="r_foot_dh_frame"/>
</joint>
  <gazebo reference="r_arm_ft_sensor">
  <disableFixedJointLumping>true</disableFixedJointLumping>
</gazebo>
  <gazebo reference="l_arm_ft_sensor">
  <disableFixedJointLumping>true</disableFixedJointLumping>
</gazebo>
  <gazebo reference="r_leg_ft_sensor">
  <disableFixedJointLumping>true</disableFixedJointLumping>
</gazebo>
  <gazebo reference="l_leg_ft_sensor">
  <disableFixedJointLumping>true</disableFixedJointLumping>
</gazebo>
  <gazebo reference="r_foot_ft_sensor">
  <disableFixedJointLumping>true</disableFixedJointLumping>
</gazebo>
  <gazebo reference="l_foot_ft_sensor">
  <disableFixedJointLumping>true</disableFixedJointLumping>
</gazebo>
  <gazebo reference="l_foot">
  <collision> <surface> <bounce>
    <restitution_coefficient>0</restitution_coefficient>
    <threshold>100000</threshold>
  </bounce> </surface> </collision>
  <maxContacts>4</maxContacts>
  <kp>18000000</kp>
  <kd>100</kd>
  <maxVel>100</maxVel>
  <minDepth>0.0001</minDepth>
  <mu1>1</mu1>
  <mu2>1</mu2>
  <fdir1>0 0 0</fdir1>
</gazebo>
  <gazebo reference="r_foot">
  <collision> <surface> <bounce>
    <restitution_coefficient>0</restitution_coefficient>
    <threshold>100000</threshold>
  </bounce> </surface> </collision>
  <maxContacts>4</maxContacts>
  <kp>18000000</kp>
  <kd>100</kd>
  <maxVel>100</maxVel>
  <minDepth>0.0001</minDepth>
  <mu1>1</mu1>
  <mu2>1</mu2>
  <fdir1>0 0 0</fdir1>
</gazebo>
  <gazebo>
<plugin name="iCub_yarp_gazebo_plugin_ACCpart" filename="libgazebo_yarp_distributedinertials.so">
  <yarpConfigurationFile>model://iCub/conf/MTB/gazebo_icub_left_leg_mtb.ini</yarpConfigurationFile>
</plugin>
<plugin name="iCub_yarp_gazebo_plugin_ACCpart" filename="libgazebo_yarp_distributedinertials.so">
  <yarpConfigurationFile>model://iCub/conf/MTB/gazebo_icub_right_leg_mtb.ini</yarpConfigurationFile>
</plugin>
<plugin name="iCub_yarp_gazebo_plugin_ACCpart" filename="libgazebo_yarp_distributedinertials.so">
  <yarpConfigurationFile>model://iCub/conf/MTB/gazebo_icub_left_arm_mtb.ini</yarpConfigurationFile>
</plugin>
<plugin name="iCub_yarp_gazebo_plugin_ACCpart" filename="libgazebo_yarp_distributedinertials.so">
  <yarpConfigurationFile>model://iCub/conf/MTB/gazebo_icub_right_arm_mtb.ini</yarpConfigurationFile>
</plugin>
<plugin name="iCub_yarp_gazebo_plugin_ACCpart" filename="libgazebo_yarp_distributedinertials.so">
  <yarpConfigurationFile>model://iCub/conf/MTB/gazebo_icub_torso_mtb.ini</yarpConfigurationFile>
</plugin>
<plugin name="controlboard_torso" filename="libgazebo_yarp_controlboard.so">
  <yarpConfigurationFile>model://iCub/conf/gazebo_icub_torso.ini</yarpConfigurationFile>
</plugin>
<plugin name="controlboard_head_without_eyes" filename="libgazebo_yarp_controlboard.so">
  <yarpConfigurationFile>model://iCub/conf/gazebo_icub_head_without_eyes.ini</yarpConfigurationFile>
</plugin>
<plugin name="controlboard_left_arm_no_hand" filename="libgazebo_yarp_controlboard.so">
  <yarpConfigurationFile>model://iCub/conf/gazebo_icub_left_arm_no_hand_for_no_hand_model.ini</yarpConfigurationFile>
  <initialConfiguration>-0.52 0.52 0 0.785 0 0 0.0</initialConfiguration>
</plugin>
<plugin name="controlboard_right_arm_no_hand" filename="libgazebo_yarp_controlboard.so">
  <yarpConfigurationFile>model://iCub/conf/gazebo_icub_right_arm_no_hand_for_no_hand_model.ini</yarpConfigurationFile>
  <initialConfiguration>-0.52 0.52 0 0.785 0 0 0.0</initialConfiguration>
</plugin>
<plugin name="controlboard_right_leg" filename="libgazebo_yarp_controlboard.so">
  <yarpConfigurationFile>model://iCub/conf/gazebo_icub_right_leg.ini</yarpConfigurationFile>
</plugin>
<plugin name="controlboard_left_leg" filename="libgazebo_yarp_controlboard.so">
  <yarpConfigurationFile>model://iCub/conf/gazebo_icub_left_leg.ini</yarpConfigurationFile>
</plugin>
<plugin name="apply_external_wrench" filename="libgazebo_yarp_externalwrench.so">
  <robotNamefromConfigFile>model://iCub/conf/gazebo_icub_robotname.ini</robotNamefromConfigFile>
</plugin>
</gazebo>
  <gazebo reference="r_hip_pitch">
   <implicitSpringDamper>1</implicitSpringDamper>
</gazebo>
  <gazebo reference="r_hip_roll">
   <implicitSpringDamper>1</implicitSpringDamper>
</gazebo>
  <gazebo reference="r_hip_yaw">
   <implicitSpringDamper>1</implicitSpringDamper>
</gazebo>
  <gazebo reference="r_knee">
   <implicitSpringDamper>1</implicitSpringDamper>
</gazebo>
  <gazebo reference="r_ankle_pitch">
   <implicitSpringDamper>1</implicitSpringDamper>
</gazebo>
  <gazebo reference="r_ankle_roll">
   <implicitSpringDamper>1</implicitSpringDamper>
</gazebo>
  <gazebo reference="l_hip_pitch">
   <implicitSpringDamper>1</implicitSpringDamper>
</gazebo>
  <gazebo reference="l_hip_roll">
   <implicitSpringDamper>1</implicitSpringDamper>
</gazebo>
  <gazebo reference="l_hip_yaw">
   <implicitSpringDamper>1</implicitSpringDamper>
</gazebo>
  <gazebo reference="l_knee">
   <implicitSpringDamper>1</implicitSpringDamper>
</gazebo>
  <gazebo reference="l_ankle_pitch">
   <implicitSpringDamper>1</implicitSpringDamper>
</gazebo>
  <gazebo reference="l_ankle_roll">
   <implicitSpringDamper>1</implicitSpringDamper>
</gazebo>
  <gazebo reference="torso_pitch">
   <implicitSpringDamper>1</implicitSpringDamper>
</gazebo>
  <gazebo reference="torso_roll">
   <implicitSpringDamper>1</implicitSpringDamper>
</gazebo>
  <gazebo reference="torso_yaw">
   <implicitSpringDamper>1</implicitSpringDamper>
</gazebo>
  <gazebo reference="r_shoulder_pitch">
   <implicitSpringDamper>1</implicitSpringDamper>
</gazebo>
  <gazebo reference="r_shoulder_roll">
   <implicitSpringDamper>1</implicitSpringDamper>
</gazebo>
  <gazebo reference="r_shoulder_yaw">
   <implicitSpringDamper>1</implicitSpringDamper>
</gazebo>
  <gazebo reference="r_elbow">
   <implicitSpringDamper>1</implicitSpringDamper>
</gazebo>
  <gazebo reference="r_wrist_prosup">
   <implicitSpringDamper>1</implicitSpringDamper>
</gazebo>
  <gazebo reference="r_wrist_pitch">
   <implicitSpringDamper>1</implicitSpringDamper>
</gazebo>
  <gazebo reference="r_wrist_yaw">
   <implicitSpringDamper>1</implicitSpringDamper>
</gazebo>
  <gazebo reference="l_shoulder_pitch">
   <implicitSpringDamper>1</implicitSpringDamper>
</gazebo>
  <gazebo reference="l_shoulder_roll">
   <implicitSpringDamper>1</implicitSpringDamper>
</gazebo>
  <gazebo reference="l_shoulder_yaw">
   <implicitSpringDamper>1</implicitSpringDamper>
</gazebo>
  <gazebo reference="l_elbow">
   <implicitSpringDamper>1</implicitSpringDamper>
</gazebo>
  <gazebo reference="l_wrist_prosup">
   <implicitSpringDamper>1</implicitSpringDamper>
</gazebo>
  <gazebo reference="l_wrist_pitch">
   <implicitSpringDamper>1</implicitSpringDamper>
</gazebo>
  <gazebo reference="l_wrist_yaw">
   <implicitSpringDamper>1</implicitSpringDamper>
</gazebo>
  <gazebo reference="neck_pitch">
   <implicitSpringDamper>1</implicitSpringDamper>
</gazebo>
  <gazebo reference="neck_roll">
   <implicitSpringDamper>1</implicitSpringDamper>
</gazebo>
  <gazebo reference="neck_yaw">
   <implicitSpringDamper>1</implicitSpringDamper>
</gazebo>
  <gazebo reference="l_leg_ft_sensor">
    <sensor name="l_leg_ft_sensor" type="force_torque">
      <always_on>1</always_on>
      <update_rate>100</update_rate>
      <force_torque>
        <frame>child</frame>
        <measure_direction>child_to_parent</measure_direction>
      </force_torque>
      <plugin name="left_leg_ft_plugin" filename="libgazebo_yarp_forcetorque.so">
  <yarpConfigurationFile>model://iCub/conf/FT/gazebo_icub_left_leg_ft.ini</yarpConfigurationFile>
</plugin>
    </sensor>
  </gazebo>
  <sensor name="l_leg_ft_sensor" type="force_torque">
    <parent joint="l_leg_ft_sensor"/>
    <force_torque>
      <frame>child</frame>
      <measure_direction>child_to_parent</measure_direction>
    </force_torque>
  </sensor>
  <gazebo reference="r_leg_ft_sensor">
    <sensor name="r_leg_ft_sensor" type="force_torque">
      <always_on>1</always_on>
      <update_rate>100</update_rate>
      <force_torque>
        <frame>child</frame>
        <measure_direction>child_to_parent</measure_direction>
      </force_torque>
      <plugin name="right_leg_ft_plugin" filename="libgazebo_yarp_forcetorque.so">
  <yarpConfigurationFile>model://iCub/conf/FT/gazebo_icub_right_leg_ft.ini</yarpConfigurationFile>
</plugin>
    </sensor>
  </gazebo>
  <sensor name="r_leg_ft_sensor" type="force_torque">
    <parent joint="r_leg_ft_sensor"/>
    <force_torque>
      <frame>child</frame>
      <measure_direction>child_to_parent</measure_direction>
    </force_torque>
  </sensor>
  <gazebo reference="l_foot_ft_sensor">
    <sensor name="l_foot_ft_sensor" type="force_torque">
      <always_on>1</always_on>
      <update_rate>100</update_rate>
      <force_torque>
        <frame>child</frame>
        <measure_direction>child_to_parent</measure_direction>
      </force_torque>
      <plugin name="left_foot_ft_plugin" filename="libgazebo_yarp_forcetorque.so">
  <yarpConfigurationFile>model://iCub/conf/FT/gazebo_icub_left_foot_ft.ini</yarpConfigurationFile>
</plugin>
    </sensor>
  </gazebo>
  <sensor name="l_foot_ft_sensor" type="force_torque">
    <parent joint="l_foot_ft_sensor"/>
    <force_torque>
      <frame>child</frame>
      <measure_direction>child_to_parent</measure_direction>
    </force_torque>
  </sensor>
  <gazebo reference="r_foot_ft_sensor">
    <sensor name="r_foot_ft_sensor" type="force_torque">
      <always_on>1</always_on>
      <update_rate>100</update_rate>
      <force_torque>
        <frame>child</frame>
        <measure_direction>child_to_parent</measure_direction>
      </force_torque>
      <plugin name="right_foot_ft_plugin" filename="libgazebo_yarp_forcetorque.so">
  <yarpConfigurationFile>model://iCub/conf/FT/gazebo_icub_right_foot_ft.ini</yarpConfigurationFile>
</plugin>
    </sensor>
  </gazebo>
  <sensor name="r_foot_ft_sensor" type="force_torque">
    <parent joint="r_foot_ft_sensor"/>
    <force_torque>
      <frame>child</frame>
      <measure_direction>child_to_parent</measure_direction>
    </force_torque>
  </sensor>
  <gazebo reference="l_arm_ft_sensor">
    <sensor name="l_arm_ft_sensor" type="force_torque">
      <always_on>1</always_on>
      <update_rate>100</update_rate>
      <force_torque>
        <frame>child</frame>
        <measure_direction>child_to_parent</measure_direction>
      </force_torque>
      <plugin name="left_arm_ft_plugin" filename="libgazebo_yarp_forcetorque.so">
  <yarpConfigurationFile>model://iCub/conf/FT/gazebo_icub_left_arm_ft.ini</yarpConfigurationFile>
</plugin>
    </sensor>
  </gazebo>
  <sensor name="l_arm_ft_sensor" type="force_torque">
    <parent joint="l_arm_ft_sensor"/>
    <force_torque>
      <frame>child</frame>
      <measure_direction>child_to_parent</measure_direction>
    </force_torque>
  </sensor>
  <gazebo reference="r_arm_ft_sensor">
    <sensor name="r_arm_ft_sensor" type="force_torque">
      <always_on>1</always_on>
      <update_rate>100</update_rate>
      <force_torque>
        <frame>child</frame>
        <measure_direction>child_to_parent</measure_direction>
      </force_torque>
      <plugin name="right_arm_ft_plugin" filename="libgazebo_yarp_forcetorque.so">
  <yarpConfigurationFile>model://iCub/conf/FT/gazebo_icub_right_arm_ft.ini</yarpConfigurationFile>
</plugin>
    </sensor>
  </gazebo>
  <sensor name="r_arm_ft_sensor" type="force_torque">
    <parent joint="r_arm_ft_sensor"/>
    <force_torque>
      <frame>child</frame>
      <measure_direction>child_to_parent</measure_direction>
    </force_torque>
  </sensor>
  <gazebo reference="head">
    <sensor name="head_imu_acc_1x1" type="imu">
      <always_on>1</always_on>
      <update_rate>100</update_rate>
      <pose>0.00950000019074 0.133444 0.0093 -1.57079632679 1.57079632679 0.0</pose>
      <plugin name="iCub_yarp_gazebo_plugin_IMU" filename="libgazebo_yarp_imu.so">
    <yarpConfigurationFile>model://iCub/conf/gazebo_icub_inertial.ini</yarpConfigurationFile>
</plugin>
    </sensor>
  </gazebo>
  <sensor name="head_imu_acc_1x1" type="accelerometer">
    <parent link="head"/>
    <origin rpy="-1.57079632679 1.57079632679 0.0" xyz="0.00950000019074 0.133444 0.0093"/>
  </sensor>
  <gazebo reference="root_link">
    <sensor name="root_link_ems_acc_eb5" type="imu">
      <always_on>1</always_on>
      <update_rate>100</update_rate>
      <pose>0.0493308 -0.0125771 -0.115691 -3.14159265359 1.29154404503 3.14159265359</pose>
      <plugin name="iCub_yarp_gazebo_plugin_ACC" filename="libgazebo_yarp_inertial.so"/>
    </sensor>
  </gazebo>
  <sensor name="root_link_ems_acc_eb5" type="accelerometer">
    <parent link="root_link"/>
    <origin rpy="-3.14159265359 1.29154404503 3.14159265359" xyz="0.0493308 -0.0125771 -0.115691"/>
  </sensor>
  <gazebo reference="root_link">
    <sensor name="root_link_ems_gyro_eb5" type="imu">
      <always_on>1</always_on>
      <update_rate>100</update_rate>
      <pose>0.0493308 -0.0125771 -0.115691 -3.14159265359 1.29154404503 3.14159265359</pose>
    </sensor>
  </gazebo>
  <sensor name="root_link_ems_gyro_eb5" type="gyroscope">
    <parent link="root_link"/>
    <origin rpy="-3.14159265359 1.29154404503 3.14159265359" xyz="0.0493308 -0.0125771 -0.115691"/>
  </sensor>
  <gazebo reference="chest">
    <sensor name="chest_ems_acc_eb1" type="imu">
      <always_on>1</always_on>
      <update_rate>100</update_rate>
      <pose>0.0647855001907 0.064043 -0.0647091 3.1415169123 -0.261799309122 0.000292641880255</pose>
      <plugin name="iCub_yarp_gazebo_plugin_ACC" filename="libgazebo_yarp_inertial.so"/>
    </sensor>
  </gazebo>
  <sensor name="chest_ems_acc_eb1" type="accelerometer">
    <parent link="chest"/>
    <origin rpy="3.1415169123 -0.261799309122 0.000292641880255" xyz="0.0647855001907 0.064043 -0.0647091"/>
  </sensor>
  <gazebo reference="chest">
    <sensor name="chest_ems_gyro_eb1" type="imu">
      <always_on>1</always_on>
      <update_rate>100</update_rate>
      <pose>0.0692016001907 0.064548 -0.0635258 3.1415169123 -0.261799309122 0.000292641880255</pose>
    </sensor>
  </gazebo>
  <sensor name="chest_ems_gyro_eb1" type="gyroscope">
    <parent link="chest"/>
    <origin rpy="3.1415169123 -0.261799309122 0.000292641880255" xyz="0.0692016001907 0.064548 -0.0635258"/>
  </sensor>
  <gazebo reference="chest">
    <sensor name="chest_ems_acc_eb2" type="imu">
      <always_on>1</always_on>
      <update_rate>100</update_rate>
      <pose>0.0204533001907 0.088063 -0.0641645 3.14159050104 0.261799319819 3.14158433678</pose>
      <plugin name="iCub_yarp_gazebo_plugin_ACC" filename="libgazebo_yarp_inertial.so"/>
    </sensor>
  </gazebo>
  <sensor name="chest_ems_acc_eb2" type="accelerometer">
    <parent link="chest"/>
    <origin rpy="3.14159050104 0.261799319819 3.14158433678" xyz="0.0204533001907 0.088063 -0.0641645"/>
  </sensor>
  <gazebo reference="chest">
    <sensor name="chest_ems_gyro_eb2" type="imu">
      <always_on>1</always_on>
      <update_rate>100</update_rate>
      <pose>0.0160371001907 0.087559 -0.0653479 3.14159050104 0.261799319819 3.14158433678</pose>
    </sensor>
  </gazebo>
  <sensor name="chest_ems_gyro_eb2" type="gyroscope">
    <parent link="chest"/>
    <origin rpy="3.14159050104 0.261799319819 3.14158433678" xyz="0.0160371001907 0.087559 -0.0653479"/>
  </sensor>
  <gazebo reference="chest">
    <sensor name="chest_ems_acc_eb3" type="imu">
      <always_on>1</always_on>
      <update_rate>100</update_rate>
      <pose>-0.0230587998093 0.064019 -0.0758985 3.14110916203 0.261100516471 -0.000309071462555</pose>
      <plugin name="iCub_yarp_gazebo_plugin_ACC" filename="libgazebo_yarp_inertial.so"/>
    </sensor>
  </gazebo>
  <sensor name="chest_ems_acc_eb3" type="accelerometer">
    <parent link="chest"/>
    <origin rpy="3.14110916203 0.261100516471 -0.000309071462555" xyz="-0.0230587998093 0.064019 -0.0758985"/>
  </sensor>
  <gazebo reference="chest">
    <sensor name="chest_ems_gyro_eb3" type="imu">
      <always_on>1</always_on>
      <update_rate>100</update_rate>
      <pose>-0.0186416998093 0.064521 -0.0770785 3.14110916203 0.261100516471 -0.000309071462555</pose>
    </sensor>
  </gazebo>
  <sensor name="chest_ems_gyro_eb3" type="gyroscope">
    <parent link="chest"/>
    <origin rpy="3.14110916203 0.261100516471 -0.000309071462555" xyz="-0.0186416998093 0.064521 -0.0770785"/>
  </sensor>
  <gazebo reference="chest">
    <sensor name="chest_ems_acc_eb4" type="imu">
      <always_on>1</always_on>
      <update_rate>100</update_rate>
      <pose>-0.0621620998093 0.088063 -0.0529887 -3.14159050476 -0.261799319819 3.14158433987</pose>
      <plugin name="iCub_yarp_gazebo_plugin_ACC" filename="libgazebo_yarp_inertial.so"/>
    </sensor>
  </gazebo>
  <sensor name="chest_ems_acc_eb4" type="accelerometer">
    <parent link="chest"/>
    <origin rpy="-3.14159050476 -0.261799319819 3.14158433987" xyz="-0.0621620998093 0.088063 -0.0529887"/>
  </sensor>
  <gazebo reference="chest">
    <sensor name="chest_ems_gyro_eb4" type="imu">
      <always_on>1</always_on>
      <update_rate>100</update_rate>
      <pose>-0.0665783998093 0.087559 -0.0518054 -3.14159050476 -0.261799319819 3.14158433987</pose>
    </sensor>
  </gazebo>
  <sensor name="chest_ems_gyro_eb4" type="gyroscope">
    <parent link="chest"/>
    <origin rpy="-3.14159050476 -0.261799319819 3.14158433987" xyz="-0.0665783998093 0.087559 -0.0518054"/>
  </sensor>
  <gazebo reference="chest">
    <sensor name="chest_mtb_acc_0b7" type="imu">
      <always_on>1</always_on>
      <update_rate>100</update_rate>
      <pose>-0.0607539998093 -0.0017836 0.0442341 0.875167771492 0.116363734392 -1.48597350247</pose>
      <plugin name="iCub_yarp_gazebo_plugin_ACC" filename="libgazebo_yarp_inertial.so"/>
    </sensor>
  </gazebo>
  <sensor name="chest_mtb_acc_0b7" type="accelerometer">
    <parent link="chest"/>
    <origin rpy="0.875167771492 0.116363734392 -1.48597350247" xyz="-0.0607539998093 -0.0017836 0.0442341"/>
  </sensor>
  <gazebo reference="chest">
    <sensor name="chest_mtb_acc_0b8" type="imu">
      <always_on>1</always_on>
      <update_rate>100</update_rate>
      <pose>-0.0457046998093 -0.001846 0.0567427 0.500960084689 0.107313688983 -1.4778325291</pose>
      <plugin name="iCub_yarp_gazebo_plugin_ACC" filename="libgazebo_yarp_inertial.so"/>
    </sensor>
  </gazebo>
  <sensor name="chest_mtb_acc_0b8" type="accelerometer">
    <parent link="chest"/>
    <origin rpy="0.500960084689 0.107313688983 -1.4778325291" xyz="-0.0457046998093 -0.001846 0.0567427"/>
  </sensor>
  <gazebo reference="chest">
    <sensor name="chest_mtb_acc_0b9" type="imu">
      <always_on>1</always_on>
      <update_rate>100</update_rate>
      <pose>0.0439036001907 -0.0017841 0.0577221 -0.500959928973 0.107315404248 -1.66376017469</pose>
      <plugin name="iCub_yarp_gazebo_plugin_ACC" filename="libgazebo_yarp_inertial.so"/>
    </sensor>
  </gazebo>
  <sensor name="chest_mtb_acc_0b9" type="accelerometer">
    <parent link="chest"/>
    <origin rpy="-0.500959928973 0.107315404248 -1.66376017469" xyz="0.0439036001907 -0.0017841 0.0577221"/>
  </sensor>
  <gazebo reference="chest">
    <sensor name="chest_mtb_acc_0b10" type="imu">
      <always_on>1</always_on>
      <update_rate>100</update_rate>
      <pose>0.0594286001907 -0.0018543 0.0457981 -0.875168153475 0.116362025479 -1.65561807505</pose>
      <plugin name="iCub_yarp_gazebo_plugin_ACC" filename="libgazebo_yarp_inertial.so"/>
    </sensor>
  </gazebo>
  <sensor name="chest_mtb_acc_0b10" type="accelerometer">
    <parent link="chest"/>
    <origin rpy="-0.875168153475 0.116362025479 -1.65561807505" xyz="0.0594286001907 -0.0018543 0.0457981"/>
  </sensor>
  <gazebo reference="r_upper_arm">
    <sensor name="r_upper_arm_mtb_acc_2b10" type="imu">
      <always_on>1</always_on>
      <update_rate>100</update_rate>
      <pose>-0.0412194 0.029588 0.0295279 1.57079546365 1.57078381225 -2.68257161165</pose>
      <plugin name="iCub_yarp_gazebo_plugin_ACC" filename="libgazebo_yarp_inertial.so"/>
    </sensor>
  </gazebo>
  <sensor name="r_upper_arm_mtb_acc_2b10" type="accelerometer">
    <parent link="r_upper_arm"/>
    <origin rpy="1.57079546365 1.57078381225 -2.68257161165" xyz="-0.0412194 0.029588 0.0295279"/>
  </sensor>
  <gazebo reference="r_upper_arm">
    <sensor name="r_upper_arm_mtb_acc_2b11" type="imu">
      <always_on>1</always_on>
      <update_rate>100</update_rate>
      <pose>-0.0430568 0.02868 0.0760604 -1.57079614695 -1.57050350741 0.459021725219</pose>
      <plugin name="iCub_yarp_gazebo_plugin_ACC" filename="libgazebo_yarp_inertial.so"/>
    </sensor>
  </gazebo>
  <sensor name="r_upper_arm_mtb_acc_2b11" type="accelerometer">
    <parent link="r_upper_arm"/>
    <origin rpy="-1.57079614695 -1.57050350741 0.459021725219" xyz="-0.0430568 0.02868 0.0760604"/>
  </sensor>
  <gazebo reference="r_upper_arm">
    <sensor name="r_upper_arm_mtb_acc_2b12" type="imu">
      <always_on>1</always_on>
      <update_rate>100</update_rate>
      <pose>-0.0430554 0.028681 0.0049922 -1.11177442168 -1.57079632679 0.0</pose>
      <plugin name="iCub_yarp_gazebo_plugin_ACC" filename="libgazebo_yarp_inertial.so"/>
    </sensor>
  </gazebo>
  <sensor name="r_upper_arm_mtb_acc_2b12" type="accelerometer">
    <parent link="r_upper_arm"/>
    <origin rpy="-1.11177442168 -1.57079632679 0.0" xyz="-0.0430554 0.028681 0.0049922"/>
  </sensor>
  <gazebo reference="r_upper_arm">
    <sensor name="r_upper_arm_mtb_acc_2b13" type="imu">
      <always_on>1</always_on>
      <update_rate>100</update_rate>
      <pose>0.010593237 0.02835 -0.010738 1.57079632702 -0.000214520362041 2.47803674451</pose>
      <plugin name="iCub_yarp_gazebo_plugin_ACC" filename="libgazebo_yarp_inertial.so"/>
    </sensor>
  </gazebo>
  <sensor name="r_upper_arm_mtb_acc_2b13" type="accelerometer">
    <parent link="r_upper_arm"/>
    <origin rpy="1.57079632702 -0.000214520362041 2.47803674451" xyz="0.010593237 0.02835 -0.010738"/>
  </sensor>
  <gazebo reference="r_forearm">
    <sensor name="r_forearm_mtb_acc_2b7" type="imu">
      <always_on>1</always_on>
      <update_rate>100</update_rate>
      <pose>-0.0768727847342 0.005497 -0.0110479126068 0.26179949998 0.000370413042328 1.57125816863</pose>
      <plugin name="iCub_yarp_gazebo_plugin_ACC" filename="libgazebo_yarp_inertial.so"/>
    </sensor>
  </gazebo>
  <sensor name="r_forearm_mtb_acc_2b7" type="accelerometer">
    <parent link="r_forearm"/>
    <origin rpy="0.26179949998 0.000370413042328 1.57125816863" xyz="-0.0768727847342 0.005497 -0.0110479126068"/>
  </sensor>
  <gazebo reference="r_forearm">
    <sensor name="r_forearm_mtb_acc_2b8" type="imu">
      <always_on>1</always_on>
      <update_rate>100</update_rate>
      <pose>-0.0514186150796 0.015786 0.0407521537277 -0.661143946092 0.147825248461 0.092070114703</pose>
      <plugin name="iCub_yarp_gazebo_plugin_ACC" filename="libgazebo_yarp_inertial.so"/>
    </sensor>
  </gazebo>
  <sensor name="r_forearm_mtb_acc_2b8" type="accelerometer">
    <parent link="r_forearm"/>
    <origin rpy="-0.661143946092 0.147825248461 0.092070114703" xyz="-0.0514186150796 0.015786 0.0407521537277"/>
  </sensor>
  <gazebo reference="r_forearm">
    <sensor name="r_forearm_mtb_acc_2b9" type="imu">
      <always_on>1</always_on>
      <update_rate>100</update_rate>
      <pose>-0.0216379956759 0.027924 -0.0132490254018 -1.76682626732 0.261191225646 0.054048344372</pose>
      <plugin name="iCub_yarp_gazebo_plugin_ACC" filename="libgazebo_yarp_inertial.so"/>
    </sensor>
  </gazebo>
  <sensor name="r_forearm_mtb_acc_2b9" type="accelerometer">
    <parent link="r_forearm"/>
    <origin rpy="-1.76682626732 0.261191225646 0.054048344372" xyz="-0.0216379956759 0.027924 -0.0132490254018"/>
  </sensor>
  <gazebo reference="l_upper_arm">
    <sensor name="l_upper_arm_mtb_acc_1b10" type="imu">
      <always_on>1</always_on>
      <update_rate>100</update_rate>
      <pose>-0.0430554 -0.028681 0.0295279 -1.57079650664 -1.57050350741 2.68257092837</pose>
      <plugin name="iCub_yarp_gazebo_plugin_ACC" filename="libgazebo_yarp_inertial.so"/>
    </sensor>
  </gazebo>
  <sensor name="l_upper_arm_mtb_acc_1b10" type="accelerometer">
    <parent link="l_upper_arm"/>
    <origin rpy="-1.57079650664 -1.57050350741 2.68257092837" xyz="-0.0430554 -0.028681 0.0295279"/>
  </sensor>
  <gazebo reference="l_upper_arm">
    <sensor name="l_upper_arm_mtb_acc_1b11" type="imu">
      <always_on>1</always_on>
      <update_rate>100</update_rate>
      <pose>-0.0412181 -0.029589 0.0760604 -1.57079650664 -1.57050350741 2.68257092837</pose>
      <plugin name="iCub_yarp_gazebo_plugin_ACC" filename="libgazebo_yarp_inertial.so"/>
    </sensor>
  </gazebo>
  <sensor name="l_upper_arm_mtb_acc_1b11" type="accelerometer">
    <parent link="l_upper_arm"/>
    <origin rpy="-1.57079650664 -1.57050350741 2.68257092837" xyz="-0.0412181 -0.029589 0.0760604"/>
  </sensor>
  <gazebo reference="l_upper_arm">
    <sensor name="l_upper_arm_mtb_acc_1b12" type="imu">
      <always_on>1</always_on>
      <update_rate>100</update_rate>
      <pose>-0.0412194 -0.029588 0.0049921 -1.5707971899 -1.57078381225 2.68257161159</pose>
      <plugin name="iCub_yarp_gazebo_plugin_ACC" filename="libgazebo_yarp_inertial.so"/>
    </sensor>
  </gazebo>
  <sensor name="l_upper_arm_mtb_acc_1b12" type="accelerometer">
    <parent link="l_upper_arm"/>
    <origin rpy="-1.5707971899 -1.57078381225 2.68257161159" xyz="-0.0412194 -0.029588 0.0049921"/>
  </sensor>
  <gazebo reference="l_upper_arm">
    <sensor name="l_upper_arm_mtb_acc_1b13" type="imu">
      <always_on>1</always_on>
      <update_rate>100</update_rate>
      <pose>0.010592709 -0.028351 -0.0086914 -1.57079632657 0.000214520362042 -2.47803674451</pose>
      <plugin name="iCub_yarp_gazebo_plugin_ACC" filename="libgazebo_yarp_inertial.so"/>
    </sensor>
  </gazebo>
  <sensor name="l_upper_arm_mtb_acc_1b13" type="accelerometer">
    <parent link="l_upper_arm"/>
    <origin rpy="-1.57079632657 0.000214520362042 -2.47803674451" xyz="0.010592709 -0.028351 -0.0086914"/>
  </sensor>
  <gazebo reference="l_forearm">
    <sensor name="l_forearm_mtb_acc_1b7" type="imu">
      <always_on>1</always_on>
      <update_rate>100</update_rate>
      <pose>0.0768727847342 -0.005483 -0.0110479126068 0.26179949998 0.000370413042328 -1.57033448496</pose>
      <plugin name="iCub_yarp_gazebo_plugin_ACC" filename="libgazebo_yarp_inertial.so"/>
    </sensor>
  </gazebo>
  <sensor name="l_forearm_mtb_acc_1b7" type="accelerometer">
    <parent link="l_forearm"/>
    <origin rpy="0.26179949998 0.000370413042328 -1.57033448496" xyz="0.0768727847342 -0.005483 -0.0110479126068"/>
  </sensor>
  <gazebo reference="l_forearm">
    <sensor name="l_forearm_mtb_acc_1b8" type="imu">
      <always_on>1</always_on>
      <update_rate>100</update_rate>
      <pose>0.0514241740607 -0.0180279 0.0407507258436 -0.661143946092 0.147825248461 -3.04952253889</pose>
      <plugin name="iCub_yarp_gazebo_plugin_ACC" filename="libgazebo_yarp_inertial.so"/>
    </sensor>
  </gazebo>
  <sensor name="l_forearm_mtb_acc_1b8" type="accelerometer">
    <parent link="l_forearm"/>
    <origin rpy="-0.661143946092 0.147825248461 -3.04952253889" xyz="0.0514241740607 -0.0180279 0.0407507258436"/>
  </sensor>
  <gazebo reference="l_forearm">
    <sensor name="l_forearm_mtb_acc_1b9" type="imu">
      <always_on>1</always_on>
      <update_rate>100</update_rate>
      <pose>0.0220991874996 0.025657 -0.0151174243212 1.76682134218 0.261099829847 3.08752548202</pose>
      <plugin name="iCub_yarp_gazebo_plugin_ACC" filename="libgazebo_yarp_inertial.so"/>
    </sensor>
  </gazebo>
  <sensor name="l_forearm_mtb_acc_1b9" type="accelerometer">
    <parent link="l_forearm"/>
    <origin rpy="1.76682134218 0.261099829847 3.08752548202" xyz="0.0220991874996 0.025657 -0.0151174243212"/>
  </sensor>
  <gazebo reference="r_upper_leg">
    <sensor name="r_upper_leg_ems_acc_eb8" type="imu">
      <always_on>1</always_on>
      <update_rate>100</update_rate>
      <pose>-0.0125751 0.0404072 -0.040227 1.57079632679 1.57079632679 0.0</pose>
      <plugin name="iCub_yarp_gazebo_plugin_ACC" filename="libgazebo_yarp_inertial.so"/>
    </sensor>
  </gazebo>
  <sensor name="r_upper_leg_ems_acc_eb8" type="accelerometer">
    <parent link="r_upper_leg"/>
    <origin rpy="1.57079632679 1.57079632679 0.0" xyz="-0.0125751 0.0404072 -0.040227"/>
  </sensor>
  <gazebo reference="r_upper_leg">
    <sensor name="r_upper_leg_ems_acc_eb11" type="imu">
      <always_on>1</always_on>
      <update_rate>100</update_rate>
      <pose>-0.0125771 -0.040407 -0.083407 1.57079632679 1.57079632679 0.0</pose>
      <plugin name="iCub_yarp_gazebo_plugin_ACC" filename="libgazebo_yarp_inertial.so"/>
    </sensor>
  </gazebo>
  <sensor name="r_upper_leg_ems_acc_eb11" type="accelerometer">
    <parent link="r_upper_leg"/>
    <origin rpy="1.57079632679 1.57079632679 0.0" xyz="-0.0125771 -0.040407 -0.083407"/>
  </sensor>
  <gazebo reference="r_upper_leg">
    <sensor name="r_upper_leg_ems_gyro_eb8" type="imu">
      <always_on>1</always_on>
      <update_rate>100</update_rate>
      <pose>-0.013079 0.0404072 -0.035655 1.57079632679 1.57079632679 0.0</pose>
    </sensor>
  </gazebo>
  <sensor name="r_upper_leg_ems_gyro_eb8" type="gyroscope">
    <parent link="r_upper_leg"/>
    <origin rpy="1.57079632679 1.57079632679 0.0" xyz="-0.013079 0.0404072 -0.035655"/>
  </sensor>
  <gazebo reference="r_upper_leg">
    <sensor name="r_upper_leg_ems_gyro_eb11" type="imu">
      <always_on>1</always_on>
      <update_rate>100</update_rate>
      <pose>-0.013081 -0.040407 -0.087979 1.57079632679 1.57079632679 0.0</pose>
    </sensor>
  </gazebo>
  <sensor name="r_upper_leg_ems_gyro_eb11" type="gyroscope">
    <parent link="r_upper_leg"/>
    <origin rpy="1.57079632679 1.57079632679 0.0" xyz="-0.013081 -0.040407 -0.087979"/>
  </sensor>
  <gazebo reference="r_upper_leg">
    <sensor name="r_upper_leg_mtb_acc_11b1" type="imu">
      <always_on>1</always_on>
      <update_rate>100</update_rate>
      <pose>0.043588612 -0.030195 0.04894 2.52670843803 -1.57044484253 -0.22287382498</pose>
      <plugin name="iCub_yarp_gazebo_plugin_ACC" filename="libgazebo_yarp_inertial.so"/>
    </sensor>
  </gazebo>
  <sensor name="r_upper_leg_mtb_acc_11b1" type="accelerometer">
    <parent link="r_upper_leg"/>
    <origin rpy="2.52670843803 -1.57044484253 -0.22287382498" xyz="0.043588612 -0.030195 0.04894"/>
  </sensor>
  <gazebo reference="r_upper_leg">
    <sensor name="r_upper_leg_mtb_acc_11b2" type="imu">
      <always_on>1</always_on>
      <update_rate>100</update_rate>
      <pose>0.0539467 -0.0064065 0.039056 -3.12940212057 -1.57038181496 -0.273989852569</pose>
      <plugin name="iCub_yarp_gazebo_plugin_ACC" filename="libgazebo_yarp_inertial.so"/>
    </sensor>
  </gazebo>
  <sensor name="r_upper_leg_mtb_acc_11b2" type="accelerometer">
    <parent link="r_upper_leg"/>
    <origin rpy="-3.12940212057 -1.57038181496 -0.273989852569" xyz="0.0539467 -0.0064065 0.039056"/>
  </sensor>
  <gazebo reference="r_upper_leg">
    <sensor name="r_upper_leg_mtb_acc_11b3" type="imu">
      <always_on>1</always_on>
      <update_rate>100</update_rate>
      <pose>0.0538313 -0.0130214 0.003986 -2.87731085451 -1.5703518031 -0.264281823992</pose>
      <plugin name="iCub_yarp_gazebo_plugin_ACC" filename="libgazebo_yarp_inertial.so"/>
    </sensor>
  </gazebo>
  <sensor name="r_upper_leg_mtb_acc_11b3" type="accelerometer">
    <parent link="r_upper_leg"/>
    <origin rpy="-2.87731085451 -1.5703518031 -0.264281823992" xyz="0.0538313 -0.0130214 0.003986"/>
  </sensor>
  <gazebo reference="r_upper_leg">
    <sensor name="r_upper_leg_mtb_acc_11b4" type="imu">
      <always_on>1</always_on>
      <update_rate>100</update_rate>
      <pose>0.0322719 0.0422675 -0.005045 -1.87390998809 -1.57025771326 -0.0808589029571</pose>
      <plugin name="iCub_yarp_gazebo_plugin_ACC" filename="libgazebo_yarp_inertial.so"/>
    </sensor>
  </gazebo>
  <sensor name="r_upper_leg_mtb_acc_11b4" type="accelerometer">
    <parent link="r_upper_leg"/>
    <origin rpy="-1.87390998809 -1.57025771326 -0.0808589029571" xyz="0.0322719 0.0422675 -0.005045"/>
  </sensor>
  <gazebo reference="r_upper_leg">
    <sensor name="r_upper_leg_mtb_acc_11b5" type="imu">
      <always_on>1</always_on>
      <update_rate>100</update_rate>
      <pose>0.0538313 0.0164786 0.003986 -2.87731085451 -1.5703518031 -0.264281823992</pose>
      <plugin name="iCub_yarp_gazebo_plugin_ACC" filename="libgazebo_yarp_inertial.so"/>
    </sensor>
  </gazebo>
  <sensor name="r_upper_leg_mtb_acc_11b5" type="accelerometer">
    <parent link="r_upper_leg"/>
    <origin rpy="-2.87731085451 -1.5703518031 -0.264281823992" xyz="0.0538313 0.0164786 0.003986"/>
  </sensor>
  <gazebo reference="r_upper_leg">
    <sensor name="r_upper_leg_mtb_acc_11b6" type="imu">
      <always_on>1</always_on>
      <update_rate>100</update_rate>
      <pose>-0.0437518 -0.0157594 -0.026565 1.95410275534e-17 1.5703672368 -3.14159265359</pose>
      <plugin name="iCub_yarp_gazebo_plugin_ACC" filename="libgazebo_yarp_inertial.so"/>
    </sensor>
  </gazebo>
  <sensor name="r_upper_leg_mtb_acc_11b6" type="accelerometer">
    <parent link="r_upper_leg"/>
    <origin rpy="1.95410275534e-17 1.5703672368 -3.14159265359" xyz="-0.0437518 -0.0157594 -0.026565"/>
  </sensor>
  <gazebo reference="r_upper_leg">
    <sensor name="r_upper_leg_mtb_acc_11b7" type="imu">
      <always_on>1</always_on>
      <update_rate>100</update_rate>
      <pose>-0.0437518 0.0162386 -0.026566 0.264252523901 1.57035180662 -2.87734010478</pose>
      <plugin name="iCub_yarp_gazebo_plugin_ACC" filename="libgazebo_yarp_inertial.so"/>
    </sensor>
  </gazebo>
  <sensor name="r_upper_leg_mtb_acc_11b7" type="accelerometer">
    <parent link="r_upper_leg"/>
    <origin rpy="0.264252523901 1.57035180662 -2.87734010478" xyz="-0.0437518 0.0162386 -0.026566"/>
  </sensor>
  <gazebo reference="r_lower_leg">
    <sensor name="r_lower_leg_ems_acc_eb9" type="imu">
      <always_on>1</always_on>
      <update_rate>100</update_rate>
      <pose>0.04351373 0.0138396 -0.092765 -3.14159265359 -1.35262978345 -8.47684971046e-16</pose>
      <plugin name="iCub_yarp_gazebo_plugin_ACC" filename="libgazebo_yarp_inertial.so"/>
    </sensor>
  </gazebo>
  <sensor name="r_lower_leg_ems_acc_eb9" type="accelerometer">
    <parent link="r_lower_leg"/>
    <origin rpy="-3.14159265359 -1.35262978345 -8.47684971046e-16" xyz="0.04351373 0.0138396 -0.092765"/>
  </sensor>
  <gazebo reference="r_lower_leg">
    <sensor name="r_lower_leg_ems_gyro_eb9" type="imu">
      <always_on>1</always_on>
      <update_rate>100</update_rate>
      <pose>0.044503292 0.0143435 -0.088301 -3.14159265359 -1.35262978345 -8.47684971046e-16</pose>
    </sensor>
  </gazebo>
  <sensor name="r_lower_leg_ems_gyro_eb9" type="gyroscope">
    <parent link="r_lower_leg"/>
    <origin rpy="-3.14159265359 -1.35262978345 -8.47684971046e-16" xyz="0.044503292 0.0143435 -0.088301"/>
  </sensor>
  <gazebo reference="r_lower_leg">
    <sensor name="r_lower_leg_mtb_acc_11b8" type="imu">
      <always_on>1</always_on>
      <update_rate>100</update_rate>
      <pose>0.05362922 -0.0151958 -0.004318 -1.57079699431 -1.5706802101 -1.81514182543</pose>
      <plugin name="iCub_yarp_gazebo_plugin_ACC" filename="libgazebo_yarp_inertial.so"/>
    </sensor>
  </gazebo>
  <sensor name="r_lower_leg_mtb_acc_11b8" type="accelerometer">
    <parent link="r_lower_leg"/>
    <origin rpy="-1.57079699431 -1.5706802101 -1.81514182543" xyz="0.05362922 -0.0151958 -0.004318"/>
  </sensor>
  <gazebo reference="r_lower_leg">
    <sensor name="r_lower_leg_mtb_acc_11b9" type="imu">
      <always_on>1</always_on>
      <update_rate>100</update_rate>
      <pose>0.0537517 0.0157229 -0.004318 -1.57079629188 -1.57068021044 -1.2217307215</pose>
      <plugin name="iCub_yarp_gazebo_plugin_ACC" filename="libgazebo_yarp_inertial.so"/>
    </sensor>
  </gazebo>
  <sensor name="r_lower_leg_mtb_acc_11b9" type="accelerometer">
    <parent link="r_lower_leg"/>
    <origin rpy="-1.57079629188 -1.57068021044 -1.2217307215" xyz="0.0537517 0.0157229 -0.004318"/>
  </sensor>
  <gazebo reference="r_lower_leg">
    <sensor name="r_lower_leg_mtb_acc_11b10" type="imu">
      <always_on>1</always_on>
      <update_rate>100</update_rate>
      <pose>0.0278945 -0.042214 -0.043468 1.83259550627 -1.57079632679 0.0</pose>
      <plugin name="iCub_yarp_gazebo_plugin_ACC" filename="libgazebo_yarp_inertial.so"/>
    </sensor>
  </gazebo>
  <sensor name="r_lower_leg_mtb_acc_11b10" type="accelerometer">
    <parent link="r_lower_leg"/>
    <origin rpy="1.83259550627 -1.57079632679 0.0" xyz="0.0278945 -0.042214 -0.043468"/>
  </sensor>
  <gazebo reference="r_lower_leg">
    <sensor name="r_lower_leg_mtb_acc_11b11" type="imu">
      <always_on>1</always_on>
      <update_rate>100</update_rate>
      <pose>0.0164801 0.042249 -0.092958 -1.57079369547 -1.57068021035 -0.261801810497</pose>
      <plugin name="iCub_yarp_gazebo_plugin_ACC" filename="libgazebo_yarp_inertial.so"/>
    </sensor>
  </gazebo>
  <sensor name="r_lower_leg_mtb_acc_11b11" type="accelerometer">
    <parent link="r_lower_leg"/>
    <origin rpy="-1.57079369547 -1.57068021035 -0.261801810497" xyz="0.0164801 0.042249 -0.092958"/>
  </sensor>
  <gazebo reference="r_foot">
    <sensor name="r_foot_mtb_acc_11b12" type="imu">
      <always_on>1</always_on>
      <update_rate>100</update_rate>
      <pose>0.1034794 -0.0008122 -0.001215 1.46487522971e-16 2.22044521133e-16 -1.57079604303</pose>
      <plugin name="iCub_yarp_gazebo_plugin_ACC" filename="libgazebo_yarp_inertial.so"/>
    </sensor>
  </gazebo>
  <sensor name="r_foot_mtb_acc_11b12" type="accelerometer">
    <parent link="r_foot"/>
    <origin rpy="1.46487522971e-16 2.22044521133e-16 -1.57079604303" xyz="0.1034794 -0.0008122 -0.001215"/>
  </sensor>
  <gazebo reference="r_foot">
    <sensor name="r_foot_mtb_acc_11b13" type="imu">
      <always_on>1</always_on>
      <update_rate>100</update_rate>
      <pose>0.0784794 -0.0118122 -0.001215 2.22044604925e-16 2.22044604925e-16 -1.57079632679</pose>
      <plugin name="iCub_yarp_gazebo_plugin_ACC" filename="libgazebo_yarp_inertial.so"/>
    </sensor>
  </gazebo>
  <sensor name="r_foot_mtb_acc_11b13" type="accelerometer">
    <parent link="r_foot"/>
    <origin rpy="2.22044604925e-16 2.22044604925e-16 -1.57079632679" xyz="0.0784794 -0.0118122 -0.001215"/>
  </sensor>
  <gazebo reference="l_upper_leg">
    <sensor name="l_upper_leg_ems_acc_eb6" type="imu">
      <always_on>1</always_on>
      <update_rate>100</update_rate>
      <pose>-0.0125771 -0.0404072 -0.083407 1.57079632679 1.57079632679 0.0</pose>
      <plugin name="iCub_yarp_gazebo_plugin_ACC" filename="libgazebo_yarp_inertial.so"/>
    </sensor>
  </gazebo>
  <sensor name="l_upper_leg_ems_acc_eb6" type="accelerometer">
    <parent link="l_upper_leg"/>
    <origin rpy="1.57079632679 1.57079632679 0.0" xyz="-0.0125771 -0.0404072 -0.083407"/>
  </sensor>
  <gazebo reference="l_upper_leg">
    <sensor name="l_upper_leg_ems_acc_eb10" type="imu">
      <always_on>1</always_on>
      <update_rate>100</update_rate>
      <pose>-0.0125751 0.040407 -0.040227 -1.57079632679 -1.57079632679 0.0</pose>
      <plugin name="iCub_yarp_gazebo_plugin_ACC" filename="libgazebo_yarp_inertial.so"/>
    </sensor>
  </gazebo>
  <sensor name="l_upper_leg_ems_acc_eb10" type="accelerometer">
    <parent link="l_upper_leg"/>
    <origin rpy="-1.57079632679 -1.57079632679 0.0" xyz="-0.0125751 0.040407 -0.040227"/>
  </sensor>
  <gazebo reference="l_upper_leg">
    <sensor name="l_upper_leg_ems_gyro_eb6" type="imu">
      <always_on>1</always_on>
      <update_rate>100</update_rate>
      <pose>-0.013081 -0.0404072 -0.087979 1.57079632679 1.57079632679 0.0</pose>
    </sensor>
  </gazebo>
  <sensor name="l_upper_leg_ems_gyro_eb6" type="gyroscope">
    <parent link="l_upper_leg"/>
    <origin rpy="1.57079632679 1.57079632679 0.0" xyz="-0.013081 -0.0404072 -0.087979"/>
  </sensor>
  <gazebo reference="l_upper_leg">
    <sensor name="l_upper_leg_ems_gyro_eb10" type="imu">
      <always_on>1</always_on>
      <update_rate>100</update_rate>
      <pose>-0.013079 0.040407 -0.035655 -1.57079632679 -1.57079632679 0.0</pose>
    </sensor>
  </gazebo>
  <sensor name="l_upper_leg_ems_gyro_eb10" type="gyroscope">
    <parent link="l_upper_leg"/>
    <origin rpy="-1.57079632679 -1.57079632679 0.0" xyz="-0.013079 0.040407 -0.035655"/>
  </sensor>
  <gazebo reference="l_upper_leg">
    <sensor name="l_upper_leg_mtb_acc_10b1" type="imu">
      <always_on>1</always_on>
      <update_rate>100</update_rate>
      <pose>0.04200163 0.031565 0.049132 -1.57079551857 -1.57068021034 -0.733039094713</pose>
      <plugin name="iCub_yarp_gazebo_plugin_ACC" filename="libgazebo_yarp_inertial.so"/>
    </sensor>
  </gazebo>
  <sensor name="l_upper_leg_mtb_acc_10b1" type="accelerometer">
    <parent link="l_upper_leg"/>
    <origin rpy="-1.57079551857 -1.57068021034 -0.733039094713" xyz="0.04200163 0.031565 0.049132"/>
  </sensor>
  <gazebo reference="l_upper_leg">
    <sensor name="l_upper_leg_mtb_acc_10b2" type="imu">
      <always_on>1</always_on>
      <update_rate>100</update_rate>
      <pose>0.05352109 0.0077657 0.039252 -1.57079638638 -1.57068021039 -1.3089969474</pose>
      <plugin name="iCub_yarp_gazebo_plugin_ACC" filename="libgazebo_yarp_inertial.so"/>
    </sensor>
  </gazebo>
  <sensor name="l_upper_leg_mtb_acc_10b2" type="accelerometer">
    <parent link="l_upper_leg"/>
    <origin rpy="-1.57079638638 -1.57068021039 -1.3089969474" xyz="0.05352109 0.0077657 0.039252"/>
  </sensor>
  <gazebo reference="l_upper_leg">
    <sensor name="l_upper_leg_mtb_acc_10b3" type="imu">
      <always_on>1</always_on>
      <update_rate>100</update_rate>
      <pose>0.053785 0.0150706 0.004182 3.14159265359 -1.57079632679 0.0</pose>
      <plugin name="iCub_yarp_gazebo_plugin_ACC" filename="libgazebo_yarp_inertial.so"/>
    </sensor>
  </gazebo>
  <sensor name="l_upper_leg_mtb_acc_10b3" type="accelerometer">
    <parent link="l_upper_leg"/>
    <origin rpy="3.14159265359 -1.57079632679 0.0" xyz="0.053785 0.0150706 0.004182"/>
  </sensor>
  <gazebo reference="l_upper_leg">
    <sensor name="l_upper_leg_mtb_acc_10b4" type="imu">
      <always_on>1</always_on>
      <update_rate>100</update_rate>
      <pose>0.053785 -0.0144294 0.004182 3.14159265359 -1.57079632679 0.0</pose>
      <plugin name="iCub_yarp_gazebo_plugin_ACC" filename="libgazebo_yarp_inertial.so"/>
    </sensor>
  </gazebo>
  <sensor name="l_upper_leg_mtb_acc_10b4" type="accelerometer">
    <parent link="l_upper_leg"/>
    <origin rpy="3.14159265359 -1.57079632679 0.0" xyz="0.053785 -0.0144294 0.004182"/>
  </sensor>
  <gazebo reference="l_upper_leg">
    <sensor name="l_upper_leg_mtb_acc_10b5" type="imu">
      <always_on>1</always_on>
      <update_rate>100</update_rate>
      <pose>0.03412949 -0.0414999 -0.004858 1.95476889104 -1.57079632679 0.0</pose>
      <plugin name="iCub_yarp_gazebo_plugin_ACC" filename="libgazebo_yarp_inertial.so"/>
    </sensor>
  </gazebo>
  <sensor name="l_upper_leg_mtb_acc_10b5" type="accelerometer">
    <parent link="l_upper_leg"/>
    <origin rpy="1.95476889104 -1.57079632679 0.0" xyz="0.03412949 -0.0414999 -0.004858"/>
  </sensor>
  <gazebo reference="l_upper_leg">
    <sensor name="l_upper_leg_mtb_acc_10b6" type="imu">
      <always_on>1</always_on>
      <update_rate>100</update_rate>
      <pose>-0.043785 0.0178111 -0.026411 -1.57079632679 1.57077431394 1.57079632679</pose>
      <plugin name="iCub_yarp_gazebo_plugin_ACC" filename="libgazebo_yarp_inertial.so"/>
    </sensor>
  </gazebo>
  <sensor name="l_upper_leg_mtb_acc_10b6" type="accelerometer">
    <parent link="l_upper_leg"/>
    <origin rpy="-1.57079632679 1.57077431394 1.57079632679" xyz="-0.043785 0.0178111 -0.026411"/>
  </sensor>
  <gazebo reference="l_upper_leg">
    <sensor name="l_upper_leg_mtb_acc_10b7" type="imu">
      <always_on>1</always_on>
      <update_rate>100</update_rate>
      <pose>-0.043785 -0.0141918 -0.026411 1.5707963268 1.57064733889 -1.57079632679</pose>
      <plugin name="iCub_yarp_gazebo_plugin_ACC" filename="libgazebo_yarp_inertial.so"/>
    </sensor>
  </gazebo>
  <sensor name="l_upper_leg_mtb_acc_10b7" type="accelerometer">
    <parent link="l_upper_leg"/>
    <origin rpy="1.5707963268 1.57064733889 -1.57079632679" xyz="-0.043785 -0.0141918 -0.026411"/>
  </sensor>
  <gazebo reference="l_lower_leg">
    <sensor name="l_lower_leg_ems_acc_eb7" type="imu">
      <always_on>1</always_on>
      <update_rate>100</update_rate>
      <pose>0.04351373 0.0113146 -0.092765 -3.14159265359 -1.35262978345 -8.47684971046e-16</pose>
      <plugin name="iCub_yarp_gazebo_plugin_ACC" filename="libgazebo_yarp_inertial.so"/>
    </sensor>
  </gazebo>
  <sensor name="l_lower_leg_ems_acc_eb7" type="accelerometer">
    <parent link="l_lower_leg"/>
    <origin rpy="-3.14159265359 -1.35262978345 -8.47684971046e-16" xyz="0.04351373 0.0113146 -0.092765"/>
  </sensor>
  <gazebo reference="l_lower_leg">
    <sensor name="l_lower_leg_ems_gyro_eb7" type="imu">
      <always_on>1</always_on>
      <update_rate>100</update_rate>
      <pose>0.044503292 0.0118185 -0.088301 -3.14159265359 -1.35262978345 -8.47684971046e-16</pose>
    </sensor>
  </gazebo>
  <sensor name="l_lower_leg_ems_gyro_eb7" type="gyroscope">
    <parent link="l_lower_leg"/>
    <origin rpy="-3.14159265359 -1.35262978345 -8.47684971046e-16" xyz="0.044503292 0.0118185 -0.088301"/>
  </sensor>
  <gazebo reference="l_lower_leg">
    <sensor name="l_lower_leg_mtb_acc_10b8" type="imu">
      <always_on>1</always_on>
      <update_rate>100</update_rate>
      <pose>0.05313347 0.0171841 -0.004318 -2.89724648752 -1.57079632679 0.0</pose>
      <plugin name="iCub_yarp_gazebo_plugin_ACC" filename="libgazebo_yarp_inertial.so"/>
    </sensor>
  </gazebo>
  <sensor name="l_lower_leg_mtb_acc_10b8" type="accelerometer">
    <parent link="l_lower_leg"/>
    <origin rpy="-2.89724648752 -1.57079632679 0.0" xyz="0.05313347 0.0171841 -0.004318"/>
  </sensor>
  <gazebo reference="l_lower_leg">
    <sensor name="l_lower_leg_mtb_acc_10b9" type="imu">
      <always_on>1</always_on>
      <update_rate>100</update_rate>
      <pose>0.0544518 -0.0137991 -0.004318 -1.57079636645 -1.57068021044 -1.91986192735</pose>
      <plugin name="iCub_yarp_gazebo_plugin_ACC" filename="libgazebo_yarp_inertial.so"/>
    </sensor>
  </gazebo>
  <sensor name="l_lower_leg_mtb_acc_10b9" type="accelerometer">
    <parent link="l_lower_leg"/>
    <origin rpy="-1.57079636645 -1.57068021044 -1.91986192735" xyz="0.0544518 -0.0137991 -0.004318"/>
  </sensor>
  <gazebo reference="l_lower_leg">
    <sensor name="l_lower_leg_mtb_acc_10b10" type="imu">
      <always_on>1</always_on>
      <update_rate>100</update_rate>
      <pose>0.0259151 0.042744 -0.043468 -1.57079369547 -1.57068021035 -0.261801810497</pose>
      <plugin name="iCub_yarp_gazebo_plugin_ACC" filename="libgazebo_yarp_inertial.so"/>
    </sensor>
  </gazebo>
  <sensor name="l_lower_leg_mtb_acc_10b10" type="accelerometer">
    <parent link="l_lower_leg"/>
    <origin rpy="-1.57079369547 -1.57068021035 -0.261801810497" xyz="0.0259151 0.042744 -0.043468"/>
  </sensor>
  <gazebo reference="l_lower_leg">
    <sensor name="l_lower_leg_mtb_acc_10b11" type="imu">
      <always_on>1</always_on>
      <update_rate>100</update_rate>
      <pose>0.0184593 -0.0417187 -0.092958 1.57079531928 -1.57076999786 0.261800187025</pose>
      <plugin name="iCub_yarp_gazebo_plugin_ACC" filename="libgazebo_yarp_inertial.so"/>
    </sensor>
  </gazebo>
  <sensor name="l_lower_leg_mtb_acc_10b11" type="accelerometer">
    <parent link="l_lower_leg"/>
    <origin rpy="1.57079531928 -1.57076999786 0.261800187025" xyz="0.0184593 -0.0417187 -0.092958"/>
  </sensor>
  <gazebo reference="l_foot">
    <sensor name="l_foot_mtb_acc_10b12" type="imu">
      <always_on>1</always_on>
      <update_rate>100</update_rate>
      <pose>0.1055274 0.0008122 -0.001215 0.0 -0.0 1.57079632679</pose>
      <plugin name="iCub_yarp_gazebo_plugin_ACC" filename="libgazebo_yarp_inertial.so"/>
    </sensor>
  </gazebo>
  <sensor name="l_foot_mtb_acc_10b12" type="accelerometer">
    <parent link="l_foot"/>
    <origin rpy="0.0 -0.0 1.57079632679" xyz="0.1055274 0.0008122 -0.001215"/>
  </sensor>
  <gazebo reference="l_foot">
    <sensor name="l_foot_mtb_acc_10b13" type="imu">
      <always_on>1</always_on>
      <update_rate>100</update_rate>
      <pose>0.0805274 0.0118122 -0.001215 0.0 -0.0 1.57079632679</pose>
      <plugin name="iCub_yarp_gazebo_plugin_ACC" filename="libgazebo_yarp_inertial.so"/>
    </sensor>
  </gazebo>
  <sensor name="l_foot_mtb_acc_10b13" type="accelerometer">
    <parent link="l_foot"/>
    <origin rpy="0.0 -0.0 1.57079632679" xyz="0.0805274 0.0118122 -0.001215"/>
  </sensor>
  <gazebo>
    <pose>0.0 0.0 0.63 0.0 0.0 3.14</pose>
  </gazebo>

<!-- ************************  Fictatious Frames  ********************** -->

<link name="root_link_fake">
<inertial>
    <mass value="0.0001"/>
    <origin xyz="0 0 0" rpy="0 0 0" />
    <inertia ixx="0.0003" iyy="0.0003" izz="0.0003" ixy="0" ixz="0" iyz="0"/>
</inertial>
</link>
<joint name="j_root_link_fake" type="fixed">
<origin xyz="0 0 0" rpy="0 0 3.14159265358979"/>
<axis xyz="0 0 0"/>
<parent link="root_link"/>
<child link="root_link_fake"/>
</joint>

<link name="chest_fake">
<inertial>
    <mass value="0.0001"/>
    <origin xyz="0 0 0" rpy="0 0 0" />
    <inertia ixx="0.0003" iyy="0.0003" izz="0.0003" ixy="0" ixz="0" iyz="0"/>
</inertial>
</link>
<joint name="j_chest_fake" type="fixed">
<origin xyz="0 0 0" rpy="-1.57079632679 -1.57079632679 0"/>
<axis xyz="0 0 0"/>
<parent link="chest"/>
<child link="chest_fake"/>
</joint>

<link name="head_fake">
<inertial>
    <mass value="0.0001"/>
    <origin xyz="0 0 0" rpy="0 0 0" />
    <inertia ixx="0.0003" iyy="0.0003" izz="0.0003" ixy="0" ixz="0" iyz="0"/>
</inertial>
</link>
<joint name="j_head_fake" type="fixed">
<origin xyz="0 0 0" rpy="-1.57079632679 -1.57079632679 0"/>
<axis xyz="0 0 0"/>
<parent link="head"/>
<child link="head_fake"/>
</joint>

<link name="r_upper_arm_fake">
<inertial>
    <mass value="0.0001"/>
    <origin xyz="0 0 0" rpy="0 0 0" />
    <inertia ixx="0.0003" iyy="0.0003" izz="0.0003" ixy="0" ixz="0" iyz="0"/>
</inertial>
</link>
<joint name="j_r_upper_arm_fake" type="fixed">
<origin xyz="0 0 0" rpy="-1.57079632679 0 0"/>
<axis xyz="0 0 0"/>
<parent link="r_upper_arm"/>
<child link="r_upper_arm_fake"/>
</joint>

<link name="r_forearm_fake">
<inertial>
    <mass value="0.0001"/>
    <origin xyz="0 0 0" rpy="0 0 0" />
    <inertia ixx="0.0003" iyy="0.0003" izz="0.0003" ixy="0" ixz="0" iyz="0"/>
</inertial>
</link>
<joint name="j_r_forearm_fake" type="fixed">
<origin xyz="0 0 0" rpy="-1.57079632679 -1.57079632679 0"/>
<axis xyz="0 0 0"/>
<parent link="r_forearm"/>
<child link="r_forearm_fake"/>
</joint>

<link name="r_hand_fake">
<inertial>
    <mass value="0.0001"/>
    <origin xyz="0 0 0" rpy="0 0 0" />
    <inertia ixx="0.0003" iyy="0.0003" izz="0.0003" ixy="0" ixz="0" iyz="0"/>
</inertial>
</link>
<joint name="j_r_hand_fake" type="fixed">
<origin xyz="0 0 0" rpy="-1.57079632679 -1.57079632679 0"/>
<axis xyz="0 0 0"/>
<parent link="r_hand"/>
<child link="r_hand_fake"/>
</joint>

<link name="l_upper_arm_fake">
<inertial>
    <mass value="0.0001"/>
    <origin xyz="0 0 0" rpy="0 0 0" />
    <inertia ixx="0.0003" iyy="0.0003" izz="0.0003" ixy="0" ixz="0" iyz="0"/>
</inertial>
</link>
<joint name="j_l_upper_arm_fake" type="fixed">
<origin xyz="0 0 0" rpy="1.57079632679 0 0"/>
<axis xyz="0 0 0"/>
<parent link="l_upper_arm"/>
<child link="l_upper_arm_fake"/>
</joint>

<link name="l_forearm_fake">
<inertial>
    <mass value="0.0001"/>
    <origin xyz="0 0 0" rpy="0 0 0" />
    <inertia ixx="0.0003" iyy="0.0003" izz="0.0003" ixy="0" ixz="0" iyz="0"/>
</inertial>
</link>
<joint name="j_l_forearm_fake" type="fixed">
<origin xyz="0 0 0" rpy="-1.57079632679 -1.57079632679 0"/>
<axis xyz="0 0 0"/>
<parent link="l_forearm"/>
<child link="l_forearm_fake"/>
</joint>

<link name="l_hand_fake">
<inertial>
    <mass value="0.0001"/>
    <origin xyz="0 0 0" rpy="0 0 0" />
    <inertia ixx="0.0003" iyy="0.0003" izz="0.0003" ixy="0" ixz="0" iyz="0"/>
</inertial>
</link>
<joint name="j_l_hand_fake" type="fixed">
<origin xyz="0 0 0" rpy="-1.57079632679 -1.57079632679 0"/>
<axis xyz="0 0 0"/>
<parent link="l_hand"/>
<child link="l_hand_fake"/>
</joint>

<link name="r_upper_leg_fake">
<inertial>
    <mass value="0.0001"/>
    <origin xyz="0 0 0" rpy="0 0 0" />
    <inertia ixx="0.0003" iyy="0.0003" izz="0.0003" ixy="0" ixz="0" iyz="0"/>
</inertial>
</link>
<joint name="j_r_upper_leg_fake" type="fixed">
<origin xyz="0 0 0" rpy="0 0 0"/>
<axis xyz="0 0 0"/>
<parent link="r_upper_leg"/>
<child link="r_upper_leg_fake"/>
</joint>

<link name="r_lower_leg_fake">
<inertial>
    <mass value="0.0001"/>
    <origin xyz="0 0 0" rpy="0 0 0" />
    <inertia ixx="0.0003" iyy="0.0003" izz="0.0003" ixy="0" ixz="0" iyz="0"/>
</inertial>
</link>
<joint name="j_r_lower_leg_fake" type="fixed">
<origin xyz="0 0 0" rpy="0 0 0"/>
<axis xyz="0 0 0"/>
<parent link="r_lower_leg"/>
<child link="r_lower_leg_fake"/>
</joint>


<link name="r_foot_fake">
<inertial>
    <mass value="0.0001"/>
    <origin xyz="0 0 0" rpy="0 0 0" />
    <inertia ixx="0.0003" iyy="0.0003" izz="0.0003" ixy="0" ixz="0" iyz="0"/>
</inertial>
</link>
<joint name="j_r_foot_fake" type="fixed">
<origin xyz="0 0 0" rpy="3.14159 0 0"/>
<axis xyz="0 0 0"/>
<parent link="r_foot"/>
<child link="r_foot_fake"/>
</joint>

<link name="l_upper_leg_fake">
<inertial>
    <mass value="0.0001"/>
    <origin xyz="0 0 0" rpy="0 0 0" />
    <inertia ixx="0.0003" iyy="0.0003" izz="0.0003" ixy="0" ixz="0" iyz="0"/>
</inertial>
</link>
<joint name="j_l_upper_leg_fake" type="fixed">
<origin xyz="0 0 0" rpy="0 0 0"/>
<axis xyz="0 0 0"/>
<parent link="l_upper_leg"/>
<child link="l_upper_leg_fake"/>
</joint>

<link name="l_lower_leg_fake">
<inertial>
    <mass value="0.0001"/>
    <origin xyz="0 0 0" rpy="0 0 0" />
    <inertia ixx="0.0003" iyy="0.0003" izz="0.0003" ixy="0" ixz="0" iyz="0"/>
</inertial>
</link>
<joint name="j_l_lower_leg_fake" type="fixed">
<origin xyz="0 0 0" rpy="0 0 0"/>
<axis xyz="0 0 0"/>
<parent link="l_lower_leg"/>
<child link="l_lower_leg_fake"/>
</joint>

<link name="l_foot_fake">
<inertial>
    <mass value="0.0001"/>
    <origin xyz="0 0 0" rpy="0 0 0" />
    <inertia ixx="0.0003" iyy="0.0003" izz="0.0003" ixy="0" ixz="0" iyz="0"/>
</inertial>
</link>
<joint name="j_l_foot_fake" type="fixed">
<origin xyz="0 0 0" rpy="3.14159 0 0"/>
<axis xyz="0 0 0"/>
<parent link="l_foot"/>
<child link="l_foot_fake"/>
</joint>

<!-- ********************** Pole addition************************ -->
<link name="world"/>
  <joint name="world_fixed_joint" type="fixed">
  <origin xyz="0 0 1" rpy="0 0 0"/>
  <axis xyz="0 0 0"/>
  <parent link="world"/>
  <child link="base_link"/>
</joint>
  <!-- ********************************************** -->
  <!-- Sensor  1-->
  <sensor name="Pelvis_gyro" type="gyroscope">
  <parent link="root_link_fake"/>
  <origin xyz="-0.055881  0.00020678    0.095148" rpy="0.094617      1.0086     -3.0304"/>
  </sensor>
  <sensor name="Pelvis_accelerometer" type="accelerometer">
  <parent link="root_link_fake"/>
  <origin xyz="-0.055881  0.00020678    0.095148" rpy="0.094617      1.0086     -3.0304"/>
  </sensor>
  <!-- Sensor  2-->
  <sensor name="T8_gyro" type="gyroscope">
  <parent link="chest_fake"/>
  <origin xyz="0.14068  6.2838e-06    0.077433" rpy="-0.077161      1.1064    -0.17687"/>
  </sensor>
  <sensor name="T8_accelerometer" type="accelerometer">
  <parent link="chest_fake"/>
  <origin xyz="0.14068  6.2838e-06    0.077433" rpy="-0.077161      1.1064    -0.17687"/>
  </sensor>
  <!-- Sensor  3-->
  <sensor name="Head_gyro" type="gyroscope">
  <parent link="head"/>
  <origin xyz="-0.06975 -2.1628e-05    0.076683" rpy="2.3836  -0.0032688     -1.7942"/>
  </sensor>
  <sensor name="Head_accelerometer" type="accelerometer">
  <parent link="head_fake"/>
  <origin xyz="-0.06975 -2.1628e-05    0.076683" rpy="2.3836  -0.0032688     -1.7942"/>
  </sensor>
  <!-- Sensor  4-->
  <!-- <sensor name="RightShoulder_gyro" type="gyroscope">
  <parent link="chest_fake"/>
  <origin xyz="-0.020002   -0.049977   -0.059953" rpy="1.0711    -0.16714    -0.95844"/>
  </sensor>
  <sensor name="RightShoulder_accelerometer" type="accelerometer">
  <parent link="chest_fake"/>
  <origin xyz="-0.020002   -0.049977   -0.059953" rpy="1.0711    -0.16714    -0.95844"/>
  </sensor> -->
  <!-- Sensor  5-->
  <sensor name="RightUpperArm_gyro" type="gyroscope">
  <parent link="r_upper_arm_fake"/>
  <origin xyz="-0.020047   -0.099952    0.019983" rpy="-0.10514    0.025819     -1.5224"/>
  </sensor>
  <sensor name="RightUpperArm_accelerometer" type="accelerometer">
  <parent link="r_upper_arm_fake"/>
  <origin xyz="-0.020047   -0.099952    0.019983" rpy="-0.10514    0.025819     -1.5224"/>
  </sensor>
  <!-- Sensor  6-->
  <sensor name="RightForeArm_gyro" type="gyroscope">
  <parent link="r_forearm_fake"/>
  <origin xyz="0.0018328    -0.20024    0.019978" rpy="-0.41688   -0.021387     -1.2563"/>
  </sensor>
  <sensor name="RightForeArm_accelerometer" type="accelerometer">
  <parent link="r_forearm_fake"/>
  <origin xyz="0.0018328    -0.20024    0.019978" rpy="-0.41688   -0.021387     -1.2563"/>
  </sensor>
  <!-- Sensor  7-->
  <sensor name="RightHand_gyro" type="gyroscope">
  <parent link="r_hand_fake"/>
  <origin xyz="-7.5053e-06   -0.054958    0.020014" rpy="-0.37028    0.088894     -1.5331"/>
  </sensor>
  <sensor name="RightHand_accelerometer" type="accelerometer">
  <parent link="r_hand_fake"/>
  <origin xyz="-7.5053e-06   -0.054958    0.020014" rpy="-0.37028    0.088894     -1.5331"/>
  </sensor>
  <!-- Sensor  8-->
  <!-- <sensor name="LeftShoulder_gyro" type="gyroscope">
  <parent link="chest_fake"/>
  <origin xyz="-0.019992    0.049973    -0.05994" rpy="-1.0318    -0.19235      1.1962"/>
  </sensor>
  <sensor name="LeftShoulder_accelerometer" type="accelerometer">
  <parent link="chest_fake"/>
  <origin xyz="-0.019992    0.049973    -0.05994" rpy="-1.0318    -0.19235      1.1962"/>
  </sensor> -->
  <!-- Sensor  9-->
  <sensor name="LeftUpperArm_gyro" type="gyroscope">
  <parent link="l_upper_arm_fake"/>
  <origin xyz="-0.020025    0.099939    0.019989" rpy="0.064789   -0.084026      1.4526"/>
  </sensor>
  <sensor name="LeftUpperArm_accelerometer" type="accelerometer">
  <parent link="l_upper_arm_fake"/>
  <origin xyz="-0.020025    0.099939    0.019989" rpy="0.064789   -0.084026      1.4526"/>
  </sensor>
  <!-- Sensor  10-->
  <sensor name="LeftForeArm_gyro" type="gyroscope">
  <parent link="l_forearm_fake"/>
  <origin xyz="0.0017837     0.20024    0.020006" rpy="0.72472      0.1279      1.0326"/>
  </sensor>
  <sensor name="LeftForeArm_accelerometer" type="accelerometer">
  <parent link="l_forearm_fake"/>
  <origin xyz="0.0017837     0.20024    0.020006" rpy="0.72472      0.1279      1.0326"/>
  </sensor>
  <!-- Sensor  11-->
  <sensor name="LeftHand_gyro" type="gyroscope">
  <parent link="l_hand_fake"/>
  <origin xyz="-3.1578e-05    0.054994    0.019979" rpy="-0.88757   0.0059868      1.7618"/>
  </sensor>
  <sensor name="LeftHand_accelerometer" type="accelerometer">
  <parent link="l_hand_fake"/>
  <origin xyz="-3.1578e-05    0.054994    0.019979" rpy="-0.88757   0.0059868      1.7618"/>
  </sensor>
  <!-- Sensor  12-->
  <sensor name="RightUpperLeg_gyro" type="gyroscope">
  <parent link="r_upper_leg_fake"/>
  <origin xyz="0.013338   -0.044248    -0.25239" rpy="-3.0702      1.3416      1.8771"/>
  </sensor>
  <sensor name="RightUpperLeg_accelerometer" type="accelerometer">
  <parent link="r_upper_leg_fake"/>
  <origin xyz="0.013338   -0.044248    -0.25239" rpy="-3.0702      1.3416      1.8771"/>
  </sensor>
  <!-- Sensor  13-->
  <sensor name="RightLowerLeg_gyro" type="gyroscope">
  <parent link="r_lower_leg_fake"/>
  <origin xyz="0.031063   0.0066293    -0.13321" rpy="-3.0874      1.4644     -2.7215"/>
  </sensor>
  <sensor name="RightLowerLeg_accelerometer" type="accelerometer">
  <parent link="r_lower_leg_fake"/>
  <origin xyz="0.031063   0.0066293    -0.13321" rpy="-3.0874      1.4644     -2.7215"/>
  </sensor>
  <!-- Sensor  14-->
  <sensor name="RightFoot_gyro" type="gyroscope">
  <parent link="r_foot_fake"/>
  <origin xyz="0.089471   0.0011861   -0.012554" rpy="-0.07906     0.83912    -0.38361"/>
  </sensor>
  <sensor name="RightFoot_accelerometer" type="accelerometer">
  <parent link="r_foot_fake"/>
  <origin xyz="0.089471   0.0011861   -0.012554" rpy="-0.07906     0.83912    -0.38361"/>
  </sensor>
  <!-- Sensor  15-->
  <sensor name="LeftUpperLeg_gyro" type="gyroscope">
  <parent link="l_upper_leg_fake"/>
  <origin xyz="0.01207    0.043037    -0.25269" rpy="-3.11      1.3262    -0.93453"/>
  </sensor>
  <sensor name="LeftUpperLeg_accelerometer" type="accelerometer">
  <parent link="l_upper_leg_fake"/>
  <origin xyz="0.01207    0.043037    -0.25269" rpy="-3.11      1.3262    -0.93453"/>
  </sensor>
  <!-- Sensor  16-->
  <sensor name="LeftLowerLeg_gyro" type="gyroscope">
  <parent link="l_lower_leg_fake"/>
  <origin xyz="0.030962  -0.0070902    -0.13319" rpy="-2.05      1.5347     -2.3088"/>
  </sensor>
  <sensor name="LeftLowerLeg_accelerometer" type="accelerometer">
  <parent link="l_lower_leg_fake"/>
  <origin xyz="0.030962  -0.0070902    -0.13319" rpy="-2.05      1.5347     -2.3088"/>
  </sensor>
  <!-- Sensor  17-->
  <sensor name="LeftFoot_gyro" type="gyroscope">
  <parent link="l_foot_fake"/>
  <origin xyz="0.089484  -0.0013526   -0.012584" rpy="-0.35797     0.75899     0.20577"/>
  </sensor>
  <sensor name="LeftFoot_accelerometer" type="accelerometer">
  <parent link="l_foot_fake"/>
  <origin xyz="0.089484  -0.0013526   -0.012584" rpy="-0.35797     0.75899     0.20577"/>
  </sensor>

<!-- ************************  Fictatious Frames  ********************** -->
<!--

<link name="root_link_fake"/>
<joint name="j_root_link_fake" type="fixed">
<origin xyz="0 0 0" rpy="0 0 3.14159265"/>
<axis xyz="0 0 0"/>
<parent link="root_link"/>
<child link="root_link_fake"/>
</joint>
<link name="chest_fake"/>
<joint name="j_chest_fake" type="fixed">
<origin xyz="0 0 0" rpy="-1.57079632679 -1.57079632679 0"/>
<axis xyz="0 0 0"/>
<parent link="chest"/>
<child link="chest_fake"/>
</joint>
<link name="head_fake"/>
<joint name="j_head_fake" type="fixed">
<origin xyz="0 0 0" rpy="-1.57079632679 -1.57079632679 0"/>
<axis xyz="0 0 0"/>
<parent link="head"/>
<child link="head_fake"/>
</joint>

<link name="l_hand_fake">
   <inertial>
     <origin xyz="0.00000 0.00000 0.00000" rpy="0 0 0"/>
     <mass value="0.00001"/>
     <inertia ixx="0.00001" ixy="0.00001" ixz="0.00000" iyy="0.00001" iyz="0.00001" izz="0.00001"/>
   </inertial>
   <visual>
     <origin xyz="0.00001 0.00001 0.00001" rpy="0 0 0"/>
     <geometry>
       <box size="0.2 0.1 0.05" />
     </geometry>
     <material name="blue">
       <color rgba="0 0 1 1"/>
     </material>
   </visual>
 </link>
 <joint name="j_l_hand_fake" type="revolute">
 <origin xyz="0.01 0.01 0.01" rpy="0 -1.57079632679 0"/>
 <parent link="l_hand"/>
 <child link="l_hand_fake"/>
 <dynamics damping="0.1" friction="0.0"/>
 <limit effort="30" velocity="1.0" lower="-3.141592" upper="3.141592" />
 <axis xyz="1 0 0" />
</joint>

<link name="r_hand_fake">
   <inertial>
     <origin xyz="0.00000 0.00000 0.00000" rpy="0 0 0"/>
     <mass value="0.00001"/>
     <inertia ixx="0.00001" ixy="0.00001" ixz="0.00000" iyy="0.00001" iyz="0.00001" izz="0.00001"/>
   </inertial>
   <visual>
     <origin xyz="0.00001 0.00001 0.00001" rpy="0 0 0"/>
     <geometry>
       <box size="0.2 0.1 0.05" />
     </geometry>
     <material name="blue">
       <color rgba="0 0 1 1"/>
     </material>
   </visual>
 </link>
 <joint name="j_r_hand_fake" type="revolute">
 <origin xyz="0.01 0.01 0.01" rpy="3.14159 -1.57079632679 0"/>
 <parent link="r_hand"/>
 <child link="r_hand_fake"/>
 <dynamics damping="0.1" friction="0.0"/>
 <limit effort="30" velocity="1.0" lower="-3.141592" upper="3.141592" />
 <axis xyz="1 0 0" />
</joint>

-->
</robot>
